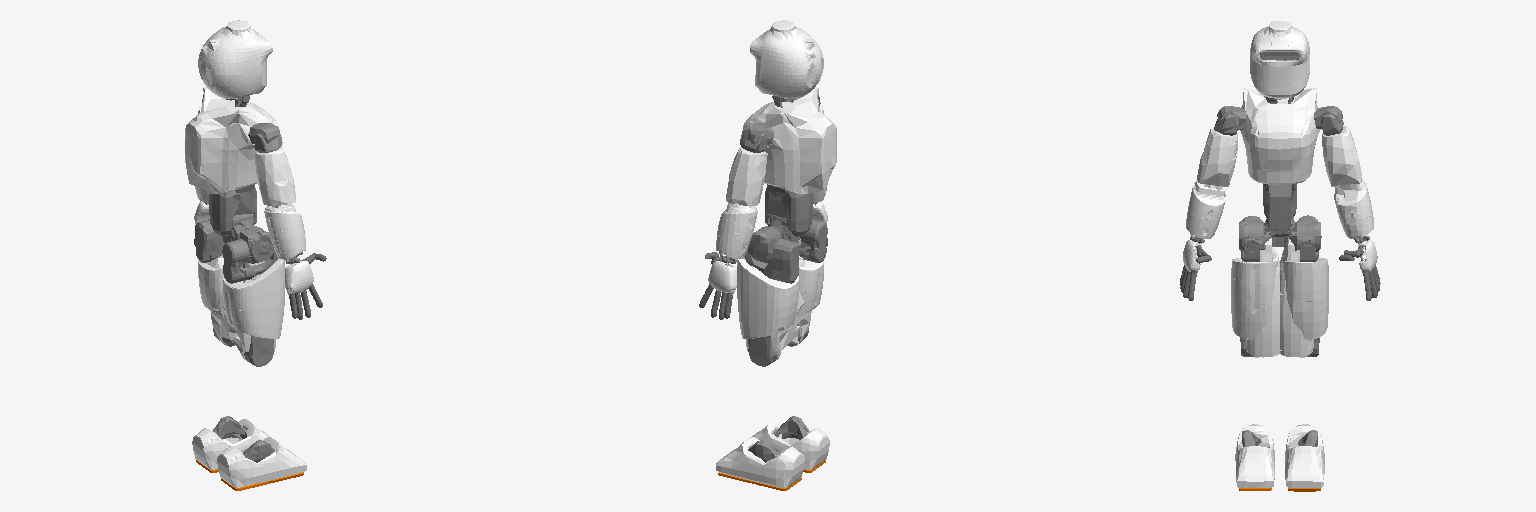
--- Facts derived from the render (not from the file) ---
Views: 3 orthographic renders of the robot side by side, from view 1: azimuth 30°, elevation 25°; view 2: azimuth 150°, elevation 25°; view 3: azimuth 270°, elevation 25°.
Robot: ergoCub — 205 links, 204 joints (57 revolute, 147 fixed); root link root_link; default pose: every joint at zero.
Links seen in each view (by area): view 1: chest, head, r_hip_3, r_ankle_2, r_upper_arm, r_forearm, l_ankle_2, torso_1, r_hip_2, l_hip_3, l_hip_2, r_hip_1 (+3 smaller); view 2: chest, head, l_hip_3, l_ankle_2, l_upper_arm, l_forearm, r_ankle_2, torso_1, l_hip_2, r_hip_3, r_hip_2, l_hip_1 (+2 smaller); view 3: chest, head, r_hip_3, l_hip_3, l_ankle_2, r_ankle_2, r_upper_arm, l_upper_arm, l_forearm, r_forearm, l_lower_leg, r_lower_leg (+3 smaller).
Boxes of the visible links, <box> form: chest: <box>185,87,278,193</box>; head: <box>198,20,272,98</box>; r_hip_3: <box>223,257,285,338</box>; r_ankle_2: <box>217,437,306,487</box>; r_upper_arm: <box>255,147,295,206</box>; r_forearm: <box>264,204,305,259</box>; l_ankle_2: <box>192,419,269,469</box>; torso_1: <box>209,187,256,236</box>; r_hip_2: <box>222,239,276,283</box>; l_hip_3: <box>198,255,223,316</box>; l_hip_2: <box>195,219,223,262</box>; r_hip_1: <box>239,226,274,263</box>; chest: <box>743,87,836,193</box>; head: <box>750,20,823,98</box>; l_hip_3: <box>737,257,798,338</box>; l_ankle_2: <box>716,437,804,487</box>; l_upper_arm: <box>726,147,767,205</box>; l_forearm: <box>716,202,757,259</box>; r_ankle_2: <box>750,419,829,469</box>; torso_1: <box>765,186,812,236</box>; l_hip_2: <box>745,239,799,283</box>; r_hip_3: <box>798,256,823,316</box>; r_hip_2: <box>799,219,827,262</box>; l_hip_1: <box>748,226,782,262</box>; chest: <box>1240,88,1320,184</box>; head: <box>1250,21,1309,98</box>; r_hip_3: <box>1231,258,1277,339</box>; l_hip_3: <box>1282,258,1328,339</box>; l_ankle_2: <box>1285,424,1324,487</box>; r_ankle_2: <box>1235,424,1274,487</box>; r_upper_arm: <box>1197,126,1237,186</box>; l_upper_arm: <box>1322,126,1361,186</box>; l_forearm: <box>1334,180,1373,238</box>; r_forearm: <box>1186,181,1225,238</box>; l_lower_leg: <box>1280,237,1313,357</box>; r_lower_leg: <box>1246,238,1279,357</box>.
Size in the robot's own frame: 0.3293 by 0.6038 by 1.48 metres.
67 mesh visuals loaded from 67 distinct referenced files (67 binary STL).

robot.urdf — ergoCub:
<?xml version="1.0"?>
<robot name="ergoCub">
  <link name="root_link">
    <inertial>
      <mass value="2.823751482824641"/>
      <origin xyz="0.0024748962432214403 -1.050794470993344e-4 0.023450368787955644" rpy="0 -0 0"/>
      <inertia ixx="0.005630606285299466" ixy="1.4369039688385168e-6" ixz="2.329934099458601e-5" iyy="0.004380033669258687" iyz="1.4098441290533537e-5" izz="0.003616681010808376"/>
    </inertial>
    <visual>
      <origin xyz="0 0 0" rpy="0 -0 0"/>
      <geometry>
        <mesh filename="package://ergoCub/meshes/simmechanics/sim_ecub_1-1_root_link.stl" scale="0.001 0.001 0.001"/>
      </geometry>
      <material name="">
        <color rgba="0.6 0.6 0.6 1"/>
      </material>
    </visual>
    <collision>
      <origin xyz="0 0 0" rpy="0 -0 0"/>
      <geometry>
        <mesh filename="package://ergoCub/meshes/simmechanics/sim_ecub_1-1_root_link.stl" scale="0.001 0.001 0.001"/>
      </geometry>
      <material name="">
        <color rgba="0.6 0.6 0.6 1"/>
      </material>
    </collision>
  </link>
  <joint name="l_hip_pitch" type="revolute">
    <origin xyz="0.02109999999999964 0.050500000000000836 1.942890293094024e-16" rpy="3.958535957527503e-15 3.810968172190701e-15 1.167434911886406e-16"/>
    <axis xyz="-5.772831379991284e-17 -1 -1.3843833381666392e-17"/>
    <parent link="root_link"/>
    <child link="l_hip_1"/>
    <limit lower="-0.767944870877505" upper="1.9198621771937625" effort="1e+9" velocity="1e+9"/>
    <dynamics damping="2" friction="0"/>
  </joint>
  <link name="l_hip_1">
    <inertial>
      <mass value="2.231768868859629"/>
      <origin xyz="-0.0040154224851623455 0.028247280560774652 -6.811143992383195e-4" rpy="0 -0 0"/>
      <inertia ixx="0.002210921814931002" ixy="5.971255499379551e-5" ixz="-1.5432160879022988e-5" iyy="0.002695326128467937" iyz="-5.838535051658118e-6" izz="0.0024610381641843883"/>
    </inertial>
    <visual>
      <origin xyz="0 0 0" rpy="0 -0 0"/>
      <geometry>
        <mesh filename="package://ergoCub/meshes/simmechanics/sim_ecub_1-1_l_hip_1.stl" scale="0.001 0.001 0.001"/>
      </geometry>
      <material name="">
        <color rgba="0.6 0.6 0.6 1"/>
      </material>
    </visual>
    <collision>
      <origin xyz="0 0 0" rpy="0 -0 0"/>
      <geometry>
        <mesh filename="package://ergoCub/meshes/simmechanics/sim_ecub_1-1_l_hip_1.stl" scale="0.001 0.001 0.001"/>
      </geometry>
      <material name="">
        <color rgba="0.6 0.6 0.6 1"/>
      </material>
    </collision>
  </link>
  <joint name="r_hip_pitch" type="revolute">
    <origin xyz="0.021099999999999643 -0.05049999999999917 -2.220446049250313e-16" rpy="3.986223624290839e-15 9.012328668422501e-14 4.978996250550603e-17"/>
    <axis xyz="-1.0880513989386065e-16 -1 1.384383338166008e-17"/>
    <parent link="root_link"/>
    <child link="r_hip_1"/>
    <limit lower="-0.767944870877505" upper="1.9198621771937625" effort="1e+9" velocity="1e+9"/>
    <dynamics damping="2" friction="0"/>
  </joint>
  <link name="r_hip_1">
    <inertial>
      <mass value="2.2320852637398954"/>
      <origin xyz="-0.004032117730258793 -0.028249385885545365 -6.739019720393702e-4" rpy="0 -0 0"/>
      <inertia ixx="0.00221225947743564" ixy="-6.126720536020865e-5" ixz="-1.5035655169601288e-5" iyy="0.002695545891317729" iyz="6.443355522460266e-6" izz="0.0024608876750051726"/>
    </inertial>
    <visual>
      <origin xyz="0 0 0" rpy="0 -0 0"/>
      <geometry>
        <mesh filename="package://ergoCub/meshes/simmechanics/sim_ecub_1-1_r_hip_1.stl" scale="0.001 0.001 0.001"/>
      </geometry>
      <material name="">
        <color rgba="0.6 0.6 0.6 1"/>
      </material>
    </visual>
    <collision>
      <origin xyz="0 0 0" rpy="0 -0 0"/>
      <geometry>
        <mesh filename="package://ergoCub/meshes/simmechanics/sim_ecub_1-1_r_hip_1.stl" scale="0.001 0.001 0.001"/>
      </geometry>
      <material name="">
        <color rgba="0.6 0.6 0.6 1"/>
      </material>
    </collision>
  </link>
  <joint name="torso_roll" type="revolute">
    <origin xyz="-2.23890229767886e-18 -5.551115123142428e-20 0.060500000000000095" rpy="0 -2.2470258116354473e-44 5.656623812198896e-30"/>
    <axis xyz="-1 0 1.4239886692466155e-15"/>
    <parent link="root_link"/>
    <child link="torso_1"/>
    <limit lower="-0.4363323129985824" upper="0.4363323129985824" effort="1e+9" velocity="1e+9"/>
    <dynamics damping="2" friction="0"/>
  </joint>
  <link name="torso_1">
    <inertial>
      <mass value="2.0645667"/>
      <origin xyz="-0.00963997362197503 6.168494736287859e-4 0.08244231288506354" rpy="0 -0 0"/>
      <inertia ixx="0.007406085999999999" ixy="0" ixz="0" iyy="0.0059470732999999994" iyz="0" izz="0.0031780111"/>
    </inertial>
    <visual>
      <origin xyz="0 0 0" rpy="0 -0 0"/>
      <geometry>
        <mesh filename="package://ergoCub/meshes/simmechanics/sim_ecub_1-1_torso_1.stl" scale="0.001 0.001 0.001"/>
      </geometry>
      <material name="">
        <color rgba="0.6 0.6 0.6 1"/>
      </material>
    </visual>
    <collision>
      <origin xyz="0 0 0" rpy="0 -0 0"/>
      <geometry>
        <mesh filename="package://ergoCub/meshes/simmechanics/sim_ecub_1-1_torso_1.stl" scale="0.001 0.001 0.001"/>
      </geometry>
      <material name="">
        <color rgba="0.6 0.6 0.6 1"/>
      </material>
    </collision>
  </link>
  <joint name="torso_pitch" type="revolute">
    <origin xyz="-7.290101862283748e-17 5.551115123142428e-20 0.11799999999999995" rpy="3.972379790909169e-15 2.710505431213761e-20 -5.6565161406289144e-30"/>
    <axis xyz="3.821412071901418e-46 1 0"/>
    <parent link="torso_1"/>
    <child link="torso_2"/>
    <limit lower="-0.3490658503988659" upper="1.1344640137963142" effort="1e+9" velocity="1e+9"/>
    <dynamics damping="2" friction="0"/>
  </joint>
  <link name="torso_2">
    <inertial>
      <mass value="0.7051627057068411"/>
      <origin xyz="0.0015724674776760373 0.0036223466761378907 0.026019504666210766" rpy="0 -0 0"/>
      <inertia ixx="0.0012590296877101025" ixy="4.1986239270733835e-6" ixz="-5.398163583772818e-6" iyy="6.675525890436374e-4" iyz="7.014302140884287e-5" izz="0.001145822810927014"/>
    </inertial>
    <visual>
      <origin xyz="0 0 0" rpy="0 -0 0"/>
      <geometry>
        <mesh filename="package://ergoCub/meshes/simmechanics/sim_ecub_1-1_torso_2.stl" scale="0.001 0.001 0.001"/>
      </geometry>
      <material name="">
        <color rgba="0.6 0.6 0.6 1"/>
      </material>
    </visual>
    <collision>
      <origin xyz="0 0 0" rpy="0 -0 0"/>
      <geometry>
        <mesh filename="package://ergoCub/meshes/simmechanics/sim_ecub_1-1_torso_2.stl" scale="0.001 0.001 0.001"/>
      </geometry>
      <material name="">
        <color rgba="0.6 0.6 0.6 1"/>
      </material>
    </collision>
  </link>
  <joint name="torso_yaw" type="revolute">
    <origin xyz="1.3429321484223738e-16 2.0428995009916363e-16 0.06446999999999985" rpy="-6.085995463684481e-15 -2.027654770291252e-15 1.0592997798766822e-15"/>
    <axis xyz="5.720965878596837e-17 -1.0794921642869322e-22 -1"/>
    <parent link="torso_2"/>
    <child link="chest"/>
    <limit lower="-0.7853981633974483" upper="0.7853981633974483" effort="1e+9" velocity="1e+9"/>
    <dynamics damping="2" friction="0"/>
  </joint>
  <link name="chest">
    <inertial>
      <mass value="8.169083432788879"/>
      <origin xyz="-0.03577155414469084 -4.1126494112009727e-4 0.08258002384912994" rpy="0 -0 0"/>
      <inertia ixx="0.0410145221879172" ixy="4.588408723680847e-5" ixz="2.1271671513563295e-5" iyy="0.05435611762471025" iyz="-1.1928930234383851e-4" izz="0.04217566475312"/>
    </inertial>
    <visual>
      <origin xyz="0 0 0" rpy="0 -0 0"/>
      <geometry>
        <mesh filename="package://ergoCub/meshes/simmechanics/sim_ecub_1-3_chest_wo_neck.stl" scale="0.001 0.001 0.001"/>
      </geometry>
      <material name="">
        <color rgba="1 1 1 1"/>
      </material>
    </visual>
    <collision>
      <origin xyz="0 0 0" rpy="0 -0 0"/>
      <geometry>
        <mesh filename="package://ergoCub/meshes/simmechanics/sim_ecub_1-3_chest_wo_neck.stl" scale="0.001 0.001 0.001"/>
      </geometry>
      <material name="">
        <color rgba="1 1 1 1"/>
      </material>
    </collision>
  </link>
  <joint name="l_shoulder_pitch" type="revolute">
    <origin xyz="-0.013518676842609899 0.06704761117227469 0.12351981080941814" rpy="0.2536123238732621 -0.052031605504493116 -0.2752787324138745"/>
    <axis xyz="-3.139849491518021e-16 1 1.3877787807814457e-16"/>
    <parent link="chest"/>
    <child link="l_shoulder_1"/>
    <limit lower="-2.9670597283903604" upper="0.6108652381980153" effort="1e+9" velocity="1e+9"/>
    <dynamics damping="2" friction="0"/>
  </joint>
  <link name="l_shoulder_1">
    <inertial>
      <mass value="0.7913756606310043"/>
      <origin xyz="1.4824275422014796e-4 0.06782971819041986 5.036196460999898e-4" rpy="0 -0 0"/>
      <inertia ixx="0.0012090260632276477" ixy="3.837452877706498e-6" ixz="3.4979966648173376e-7" iyy="3.2970130687487713e-4" iyz="1.0257960656819495e-5" izz="0.0011953232413247816"/>
    </inertial>
    <visual>
      <origin xyz="0 0 0" rpy="0 -0 0"/>
      <geometry>
        <mesh filename="package://ergoCub/meshes/simmechanics/sim_ecub_1-1_l_shoulder_1.stl" scale="0.001 0.001 0.001"/>
      </geometry>
      <material name="">
        <color rgba="0.6 0.6 0.6 1"/>
      </material>
    </visual>
    <collision>
      <origin xyz="0 0 0" rpy="0 -0 0"/>
      <geometry>
        <mesh filename="package://ergoCub/meshes/simmechanics/sim_ecub_1-1_l_shoulder_1.stl" scale="0.001 0.001 0.001"/>
      </geometry>
      <material name="">
        <color rgba="0.6 0.6 0.6 1"/>
      </material>
    </collision>
  </link>
  <joint name="r_shoulder_pitch" type="revolute">
    <origin xyz="-0.013518676842610013 -0.06704761117227458 0.12351981080941819" rpy="-0.2536123238732659 -0.052031605504493005 0.27527873241387185"/>
    <axis xyz="-4.718447854656915e-16 1.0000000000000002 3.524958103184872e-15"/>
    <parent link="chest"/>
    <child link="r_shoulder_1"/>
    <limit lower="-2.9670597283903604" upper="0.6108652381980153" effort="1e+9" velocity="1e+9"/>
    <dynamics damping="2" friction="0"/>
  </joint>
  <link name="r_shoulder_1">
    <inertial>
      <mass value="0.7922822880502421"/>
      <origin xyz="1.7243569867328445e-4 -0.06784040318161474 4.7600094527533443e-4" rpy="0 -0 0"/>
      <inertia ixx="0.0012096539626434014" ixy="-3.680808987116546e-6" ixz="8.229428308001538e-7" iyy="3.3067105254799123e-4" iyz="-1.0172274013350282e-5" izz="0.0011958286331174221"/>
    </inertial>
    <visual>
      <origin xyz="0 0 0" rpy="0 -0 0"/>
      <geometry>
        <mesh filename="package://ergoCub/meshes/simmechanics/sim_ecub_1-1_r_shoulder_1.stl" scale="0.001 0.001 0.001"/>
      </geometry>
      <material name="">
        <color rgba="0.6 0.6 0.6 1"/>
      </material>
    </visual>
    <collision>
      <origin xyz="0 0 0" rpy="0 -0 0"/>
      <geometry>
        <mesh filename="package://ergoCub/meshes/simmechanics/sim_ecub_1-1_r_shoulder_1.stl" scale="0.001 0.001 0.001"/>
      </geometry>
      <material name="">
        <color rgba="0.6 0.6 0.6 1"/>
      </material>
    </collision>
  </link>
  <joint name="neck_fixed_joint" type="fixed">
    <origin xyz="-0.0037500000000000176 7.776068354139607e-18 0.18229999999999996" rpy="2.384521650826854e-16 -8.870011704085565e-17 -1.725433700530891e-15"/>
    <parent link="chest"/>
    <child link="neck_1"/>
  </joint>
  <link name="neck_1">
    <inertial>
      <mass value="0.25627387976979793"/>
      <origin xyz="0.006551572810114587 -0.0027050942316333556 0.03528711380390005" rpy="0 -0 0"/>
      <inertia ixx="1.9974023662230547e-4" ixy="2.651751037073238e-7" ixz="-1.54446091528798e-5" iyy="1.2271241386755159e-4" iyz="4.168707548284002e-6" izz="1.2470608919718895e-4"/>
    </inertial>
    <visual>
      <origin xyz="0 0 0" rpy="0 -0 0"/>
      <geometry>
        <mesh filename="package://ergoCub/meshes/simmechanics/sim_ecub_1-3_head_neck_1.stl" scale="0.001 0.001 0.001"/>
      </geometry>
      <material name="">
        <color rgba="0.6 0.6 0.6 1"/>
      </material>
    </visual>
    <collision>
      <origin xyz="0 0 0" rpy="0 -0 0"/>
      <geometry>
        <mesh filename="package://ergoCub/meshes/simmechanics/sim_ecub_1-3_head_neck_1.stl" scale="0.001 0.001 0.001"/>
      </geometry>
      <material name="">
        <color rgba="0.6 0.6 0.6 1"/>
      </material>
    </collision>
  </link>
  <joint name="neck_pitch" type="revolute">
    <origin xyz="0.008650000000000012 -3.475400653324001e-18 0.045000000000000095" rpy="-9.967438430278062e-17 -5.5151334385361996e-17 -2.1777694761997513e-15"/>
    <axis xyz="2.1777694761997513e-15 -1 -9.967438430278136e-17"/>
    <parent link="neck_1"/>
    <child link="neck_2"/>
    <limit lower="-0.7853981633974483" upper="0.3839724354387525" effort="1e+9" velocity="1e+9"/>
    <dynamics damping="2" friction="0"/>
  </joint>
  <link name="neck_2">
    <inertial>
      <mass value="0.2945770397905417"/>
      <origin xyz="-0.010459771530164481 2.0082617155355452e-4 0.009087209541868035" rpy="0 -0 0"/>
      <inertia ixx="1.2591560224570937e-4" ixy="-3.064039041078833e-6" ixz="2.6108646064688653e-6" iyy="2.3611402495028025e-4" iyz="-1.0387919568957451e-6" izz="3.055276927828535e-4"/>
    </inertial>
    <visual>
      <origin xyz="0 0 0" rpy="0 -0 0"/>
      <geometry>
        <mesh filename="package://ergoCub/meshes/simmechanics/sim_ecub_1-3_head_neck_2.stl" scale="0.001 0.001 0.001"/>
      </geometry>
      <material name="">
        <color rgba="0.6 0.6 0.6 1"/>
      </material>
    </visual>
    <collision>
      <origin xyz="0 0 0" rpy="0 -0 0"/>
      <geometry>
        <mesh filename="package://ergoCub/meshes/simmechanics/sim_ecub_1-3_head_neck_2.stl" scale="0.001 0.001 0.001"/>
      </geometry>
      <material name="">
        <color rgba="0.6 0.6 0.6 1"/>
      </material>
    </collision>
  </link>
  <joint name="neck_roll" type="revolute">
    <origin xyz="-8.673617379884035e-18 7.619916604340795e-16 0.010999999999997845" rpy="2.181085978698084e-16 7.048063206293082e-14 1.1565204487256896e-14"/>
    <axis xyz="1 9.288242243134705e-16 -1.0059216859858537e-16"/>
    <parent link="neck_2"/>
    <child link="neck_3"/>
    <limit lower="-0.3490658503988659" upper="0.3490658503988659" effort="1e+9" velocity="1e+9"/>
    <dynamics damping="2" friction="0"/>
  </joint>
  <link name="neck_3">
    <inertial>
      <mass value="0.26196252682452986"/>
      <origin xyz="-0.01128743581519258 1.9992128363116957e-7 0.0441664976596047" rpy="0 -0 0"/>
      <inertia ixx="2.1042529365574477e-4" ixy="1.6665678269668257e-8" ixz="-8.803107073461479e-5" iyy="2.703191160638858e-4" iyz="0" izz="1.0757199897321482e-4"/>
    </inertial>
    <visual>
      <origin xyz="0 0 0" rpy="0 -0 0"/>
      <geometry>
        <mesh filename="package://ergoCub/meshes/simmechanics/sim_ecub_1-3_head_neck_3.stl" scale="0.001 0.001 0.001"/>
      </geometry>
      <material name="">
        <color rgba="0.6 0.6 0.6 1"/>
      </material>
    </visual>
    <collision>
      <origin xyz="0 0 0" rpy="0 -0 0"/>
      <geometry>
        <mesh filename="package://ergoCub/meshes/simmechanics/sim_ecub_1-3_head_neck_3.stl" scale="0.001 0.001 0.001"/>
      </geometry>
      <material name="">
        <color rgba="0.6 0.6 0.6 1"/>
      </material>
    </collision>
  </link>
  <joint name="neck_yaw" type="revolute">
    <origin xyz="-7.979727989493313e-17 1.0161561893579613e-17 0.06914999999999977" rpy="-3.4511069617703464e-17 -1.4127649560298857e-15 7.351849132495494e-16"/>
    <axis xyz="1.4127649560298857e-15 -3.451106961770346e-17 0.9999999999999999"/>
    <parent link="neck_3"/>
    <child link="head"/>
    <limit lower="-0.7853981633974483" upper="0.7853981633974483" effort="1e+9" velocity="1e+9"/>
    <dynamics damping="2" friction="0"/>
  </joint>
  <link name="head">
    <inertial>
      <mass value="1.6902682"/>
      <origin xyz="-0.01620091412622722 -0.002268813231724542 0.03500744217497026" rpy="0 -0 0"/>
      <inertia ixx="0.0097840569" ixy="0" ixz="0" iyy="0.010869342" iyz="0" izz="0.0070099259"/>
    </inertial>
    <visual>
      <origin xyz="0 0 0" rpy="0 -0 0"/>
      <geometry>
        <mesh filename="package://ergoCub/meshes/simmechanics/sim_ecub_1-1_head.stl" scale="0.001 0.001 0.001"/>
      </geometry>
      <material name="">
        <color rgba="1 1 1 1"/>
      </material>
    </visual>
    <collision>
      <origin xyz="0 0 0" rpy="0 -0 0"/>
      <geometry>
        <mesh filename="package://ergoCub/meshes/simmechanics/sim_ecub_1-1_head.stl" scale="0.001 0.001 0.001"/>
      </geometry>
      <material name="">
        <color rgba="1 1 1 1"/>
      </material>
    </collision>
  </link>
  <joint name="camera_tilt" type="revolute">
    <origin xyz="0.06251000000000001 -3.0000000001050477e-5 0.07639250000000047" rpy="9.111439807334751e-15 2.595819936170884e-4 1.6567881612394884e-15"/>
    <axis xyz="2.4623749474468526e-16 -1 -1.3590792672067983e-15"/>
    <parent link="head"/>
    <child link="realsense"/>
    <limit lower="-0.5235987755982988" upper="0.5235987755982988" effort="1e+9" velocity="1e+9"/>
    <dynamics damping="2" friction="0"/>
  </joint>
  <link name="realsense">
    <inertial>
      <mass value="0.0973042045264468"/>
      <origin xyz="-0.01566548310600667 0.004519995218644514 0.002745610154123612" rpy="0 -0 0"/>
      <inertia ixx="1.3363140922191058e-4" ixy="4.7877399688365374e-5" ixz="2.5482221369268495e-5" iyy="1.8708641575714753e-4" iyz="-7.171072206331662e-6" izz="2.963329027014652e-4"/>
    </inertial>
    <visual>
      <origin xyz="0 0 0" rpy="0 -0 0"/>
      <geometry>
        <mesh filename="package://ergoCub/meshes/simmechanics/sim_ecub_1-1_realsense.stl" scale="0.001 0.001 0.001"/>
      </geometry>
      <material name="">
        <color rgba="0.6 0.6 0.6 1"/>
      </material>
    </visual>
    <collision>
      <origin xyz="0 0 0" rpy="0 -0 0"/>
      <geometry>
        <mesh filename="package://ergoCub/meshes/simmechanics/sim_ecub_1-1_realsense.stl" scale="0.001 0.001 0.001"/>
      </geometry>
      <material name="">
        <color rgba="0.6 0.6 0.6 1"/>
      </material>
    </collision>
  </link>
  <joint name="r_shoulder_roll" type="revolute">
    <origin xyz="0.007499999999999448 -0.09330000000000005 -1.3877787807814457e-15" rpy="-2.109423746787796e-15 9.672818102046676e-15 -7.605027718682318e-15"/>
    <axis xyz="-1.0000000000000007 -1.955033357425885e-15 -5.967448757360106e-16"/>
    <parent link="r_shoulder_1"/>
    <child link="r_shoulder_2"/>
    <limit lower="-0.2617993877991494" upper="2.6179938779914944" effort="1e+9" velocity="1e+9"/>
    <dynamics damping="2" friction="0"/>
  </joint>
  <link name="r_shoulder_2">
    <inertial>
      <mass value="0.4392272062642899"/>
      <origin xyz="0.005113618901434032 -2.13348557806331e-4 -0.020425805469504787" rpy="0 -0 0"/>
      <inertia ixx="2.9042245268154257e-4" ixy="-9.557527654531481e-7" ixz="-9.749291990105912e-5" iyy="4.271705089556584e-4" iyz="-1.2227717602335833e-6" izz="2.6647274612786855e-4"/>
    </inertial>
    <visual>
      <origin xyz="0 0 0" rpy="0 -0 0"/>
      <geometry>
        <mesh filename="package://ergoCub/meshes/simmechanics/sim_ecub_1-1_r_shoulder_2.stl" scale="0.001 0.001 0.001"/>
      </geometry>
      <material name="">
        <color rgba="0.6 0.6 0.6 1"/>
      </material>
    </visual>
    <collision>
      <origin xyz="0 0 0" rpy="0 -0 0"/>
      <geometry>
        <mesh filename="package://ergoCub/meshes/simmechanics/sim_ecub_1-1_r_shoulder_2.stl" scale="0.001 0.001 0.001"/>
      </geometry>
      <material name="">
        <color rgba="0.6 0.6 0.6 1"/>
      </material>
    </collision>
  </link>
  <joint name="r_arm_ft_sensor" type="fixed">
    <origin xyz="-0.006850000000000004 -5.551115123125783e-17 -0.054300000000000015" rpy="-2.220446049250312e-16 -2.3592239273284576e-16 1.6098233857064762e-15"/>
    <parent link="r_shoulder_2"/>
    <child link="r_shoulder_3"/>
  </joint>
  <link name="r_shoulder_3">
    <inertial>
      <mass value="0.271466272759966"/>
      <origin xyz="-8.31167799586717e-5 -3.0654831449927755e-5 -0.007966545320293866" rpy="0 -0 0"/>
      <inertia ixx="7.620284216410257e-5" ixy="-3.654997747197785e-7" ixz="-3.6240077897294374e-8" iyy="7.648716704064904e-5" iyz="-6.051355657868799e-8" izz="1.2740184766279634e-4"/>
    </inertial>
    <visual>
      <origin xyz="0 0 0" rpy="0 -0 0"/>
      <geometry>
        <mesh filename="package://ergoCub/meshes/simmechanics/sim_ecub_1-1_r_shoulder_3.stl" scale="0.001 0.001 0.001"/>
      </geometry>
      <material name="">
        <color rgba="0.6 0.6 0.6 1"/>
      </material>
    </visual>
    <collision>
      <origin xyz="0 0 0" rpy="0 -0 0"/>
      <geometry>
        <mesh filename="package://ergoCub/meshes/simmechanics/sim_ecub_1-1_r_shoulder_3.stl" scale="0.001 0.001 0.001"/>
      </geometry>
      <material name="">
        <color rgba="0.6 0.6 0.6 1"/>
      </material>
    </collision>
  </link>
  <joint name="r_shoulder_yaw" type="revolute">
    <origin xyz="-7.979727989493313e-17 5.551115123125783e-17 -0.02249999999999998" rpy="-5.55111512312578e-17 -3.0531133177191805e-16 7.660538869913577e-15"/>
    <axis xyz="2.567390744445681e-16 2.775557561562927e-17 1.0000000000000004"/>
    <parent link="r_shoulder_3"/>
    <child link="r_upper_arm"/>
    <limit lower="-0.9075712110370514" upper="1.4311699866353502" effort="1e+9" velocity="1e+9"/>
    <dynamics damping="2" friction="0"/>
  </joint>
  <link name="r_upper_arm">
    <inertial>
      <mass value="1.7722348545631907"/>
      <origin xyz="1.4699786491786937e-4 -0.0023354938418406186 -0.05011711267210951" rpy="0 -0 0"/>
      <inertia ixx="0.0034219198528275844" ixy="3.081029189714289e-5" ixz="2.5743017599563002e-5" iyy="0.003510878854314856" iyz="-1.0938393403810045e-4" izz="0.0015765483711818404"/>
    </inertial>
    <visual>
      <origin xyz="0 0 0" rpy="0 -0 0"/>
      <geometry>
        <mesh filename="package://ergoCub/meshes/simmechanics/sim_ecub_1-1_r_upperarm.stl" scale="0.001 0.001 0.001"/>
      </geometry>
      <material name="">
        <color rgba="1 1 1 1"/>
      </material>
    </visual>
    <collision>
      <origin xyz="0 0 0" rpy="0 -0 0"/>
      <geometry>
        <mesh filename="package://ergoCub/meshes/simmechanics/sim_ecub_1-1_r_upperarm.stl" scale="0.001 0.001 0.001"/>
      </geometry>
      <material name="">
        <color rgba="1 1 1 1"/>
      </material>
    </collision>
  </link>
  <joint name="r_elbow" type="revolute">
    <origin xyz="0.01000000000000002 0.0015000000000005287 -0.12369999999999992" rpy="-4.1633363423443286e-16 -5.842548667089886e-15 -8.326672684688652e-15"/>
    <axis xyz="3.001071613439684e-16 -1.0000000000000027 1.2712053631958044e-14"/>
    <parent link="r_upper_arm"/>
    <child link="r_forearm"/>
    <limit lower="-0.08726646259971647" upper="2.0943951023931953" effort="1e+9" velocity="1e+9"/>
    <dynamics damping="2" friction="0"/>
  </joint>
  <link name="r_forearm">
    <inertial>
      <mass value="1.4760712424977045"/>
      <origin xyz="-0.01830687629472739 -0.002214887320910963 -0.08814943647449926" rpy="0 -0 0"/>
      <inertia ixx="0.004018141035792247" ixy="-1.0169837170335636e-6" ixz="-6.092751707960711e-5" iyy="0.004094401103638503" iyz="2.3622606931134418e-5" izz="0.00151761593950533"/>
    </inertial>
    <visual>
      <origin xyz="0 0 0" rpy="0 -0 0"/>
      <geometry>
        <mesh filename="package://ergoCub/meshes/simmechanics/sim_ecub_1-1_r_forearm.stl" scale="0.001 0.001 0.001"/>
      </geometry>
      <material name="">
        <color rgba="1 1 1 1"/>
      </material>
    </visual>
    <collision>
      <origin xyz="0 0 0" rpy="0 -0 0"/>
      <geometry>
        <mesh filename="package://ergoCub/meshes/simmechanics/sim_ecub_1-1_r_forearm.stl" scale="0.001 0.001 0.001"/>
      </geometry>
      <material name="">
        <color rgba="1 1 1 1"/>
      </material>
    </collision>
  </link>
  <joint name="r_wrist_yaw" type="revolute">
    <origin xyz="-0.014999999999999767 -0.0019999999999965323 -0.1943500000000011" rpy="-2.081668171172164e-15 -1.1587952819525071e-14 -2.997602166487915e-15"/>
    <axis xyz="5.5788706987414416e-15 -1.2628786905111175e-14 1.000000000000002"/>
    <parent link="r_forearm"/>
    <child link="r_wrist_1"/>
    <limit lower="-1.6057029118347832" upper="1.6057029118347832" effort="1e+9" velocity="1e+9"/>
    <dynamics damping="2" friction="0"/>
  </joint>
  <link name="r_wrist_1">
    <inertial>
      <mass value="0.12269276206782376"/>
      <origin xyz="-1.4544607175177166e-4 1.559247070407055e-4 0.022377800821402394" rpy="0 -0 0"/>
      <inertia ixx="4.9948289621641885e-5" ixy="-2.784766720355678e-7" ixz="6.019515820494411e-7" iyy="4.9363344899850536e-5" iyz="-7.101822163237812e-7" izz="5.04085543186966e-5"/>
    </inertial>
    <visual>
      <origin xyz="0 0 0" rpy="0 -0 0"/>
      <geometry>
        <mesh filename="package://ergoCub/meshes/simmechanics/sim_ecub_1-1_r_wrist_1.stl" scale="0.001 0.001 0.001"/>
      </geometry>
      <material name="">
        <color rgba="0.6 0.6 0.6 1"/>
      </material>
    </visual>
    <collision>
      <origin xyz="0 0 0" rpy="0 -0 0"/>
      <geometry>
        <mesh filename="package://ergoCub/meshes/simmechanics/sim_ecub_1-1_r_wrist_1.stl" scale="0.001 0.001 0.001"/>
      </geometry>
      <material name="">
        <color rgba="0.6 0.6 0.6 1"/>
      </material>
    </collision>
  </link>
  <joint name="r_wrist_roll" type="revolute">
    <origin xyz="1.4224732503009818e-16 2.498001805406602e-16 1.3877787807814457e-16" rpy="3.8857805861880484e-16 5.551115123125783e-17 -1.6653345369377353e-16"/>
    <axis xyz="0.9999999999999997 -2.480654570646835e-16 -1.873501354054953e-16"/>
    <parent link="r_wrist_1"/>
    <child link="r_wrist_2"/>
    <limit lower="-0.3490658503988659" upper="0.5235987755982988" effort="1e+9" velocity="1e+9"/>
    <dynamics damping="2" friction="0"/>
  </joint>
  <link name="r_wrist_2">
    <inertial>
      <mass value="0.021188357245777188"/>
      <origin xyz="5.05499045400093e-11 7.897372606293362e-4 -0.004696960055006527" rpy="0 -0 0"/>
      <inertia ixx="1.5886797233767314e-6" ixy="3.7411538116720276e-13" ixz="-1.6476959268145782e-14" iyy="1.6075566141746972e-6" iyz="7.534291394795915e-8" izz="2.5064167139343093e-6"/>
    </inertial>
    <visual>
      <origin xyz="0 0 0" rpy="0 -0 0"/>
      <geometry>
        <mesh filename="package://ergoCub/meshes/simmechanics/sim_ecub_1-1_r_wrist_2.stl" scale="0.001 0.001 0.001"/>
      </geometry>
      <material name="">
        <color rgba="0.5 0.5 0.5 1"/>
      </material>
    </visual>
    <collision>
      <origin xyz="0 0 0" rpy="0 -0 0"/>
      <geometry>
        <mesh filename="package://ergoCub/meshes/simmechanics/sim_ecub_1-1_r_wrist_2.stl" scale="0.001 0.001 0.001"/>
      </geometry>
      <material name="">
        <color rgba="0.5 0.5 0.5 1"/>
      </material>
    </collision>
  </link>
  <joint name="r_wrist_pitch" type="revolute">
    <origin xyz="-4.85722573273506e-17 0 2.7755575615628914e-17" rpy="2.2204460492503136e-16 -5.551115123125783e-17 -3.88578058618805e-16"/>
    <axis xyz="4.128641872824801e-16 -0.9999999999999998 -8.049116928532385e-16"/>
    <parent link="r_wrist_2"/>
    <child link="r_hand_palm"/>
    <limit lower="-0.3490658503988659" upper="0.3490658503988659" effort="1e+9" velocity="1e+9"/>
    <dynamics damping="2" friction="0"/>
  </joint>
  <link name="r_hand_palm">
    <inertial>
      <mass value="0.2020068404688116"/>
      <origin xyz="-0.003982157972782507 -0.0021135289059891482 -0.05842371394186491" rpy="0 -0 0"/>
      <inertia ixx="1.4279727238409082e-4" ixy="4.3471459905317745e-6" ixz="-1.2099467097336674e-5" iyy="2.1040345151106222e-4" iyz="4.7767131643957866e-6" izz="1.0688011837800253e-4"/>
    </inertial>
    <visual>
      <origin xyz="0 0 0" rpy="0 -0 0"/>
      <geometry>
        <mesh filename="package://ergoCub/meshes/simmechanics/sim_ecub_1-1_r_hand_palm.stl" scale="0.001 0.001 0.001"/>
      </geometry>
      <material name="">
        <color rgba="1 1 1 1"/>
      </material>
    </visual>
    <collision>
      <origin xyz="0 0 0" rpy="0 -0 0"/>
      <geometry>
        <mesh filename="package://ergoCub/meshes/simmechanics/sim_ecub_1-1_r_hand_palm.stl" scale="0.001 0.001 0.001"/>
      </geometry>
      <material name="">
        <color rgba="1 1 1 1"/>
      </material>
    </collision>
  </link>
  <joint name="r_index_add" type="revolute">
    <origin xyz="0.02250000000000002 0.0015000000000002234 -0.06859999999999983" rpy="-1.625331490597858e-15 0.29670597283904 3.141592653589792"/>
    <axis xyz="-4.834212114732253e-16 -1 1.6046911875538944e-15"/>
    <parent link="r_hand_palm"/>
    <child link="r_hand_index_1"/>
    <limit lower="0" upper="0.2617993877991494" effort="1e+9" velocity="1e+9"/>
    <dynamics damping="2" friction="0"/>
  </joint>
  <link name="r_hand_index_1">
    <inertial>
      <mass value="0.019232477290189804"/>
      <origin xyz="-0.008420124408709713 0.003850331678233287 -0.01714942611279774" rpy="0 -0 0"/>
      <inertia ixx="2.6266478205033898e-6" ixy="1.0045828131985182e-7" ixz="-4.4428748588513116e-7" iyy="2.811973348231671e-6" iyz="-3.9646985411500977e-8" izz="1.21028376665746e-6"/>
    </inertial>
    <visual>
      <origin xyz="0 0 0" rpy="0 -0 0"/>
      <geometry>
        <mesh filename="package://ergoCub/meshes/simmechanics/sim_ecub_1-1_r_hand_index_1.stl" scale="0.001 0.001 0.001"/>
      </geometry>
      <material name="">
        <color rgba="0.5 0.5 0.5 1"/>
      </material>
    </visual>
    <collision>
      <origin xyz="0 0 0" rpy="0 -0 0"/>
      <geometry>
        <mesh filename="package://ergoCub/meshes/simmechanics/sim_ecub_1-1_r_hand_index_1.stl" scale="0.001 0.001 0.001"/>
      </geometry>
      <material name="">
        <color rgba="0.5 0.5 0.5 1"/>
      </material>
    </collision>
  </link>
  <joint name="r_middle_prox" type="revolute">
    <origin xyz="0.009599999988882939 0.00150000000000039 -0.1030000000010361" rpy="-1.8596235662471376e-15 -1.0793124727292991e-10 3.1415926535897927"/>
    <axis xyz="-0.9999999999999996 -4.562322741819007e-15 1.079337105802658e-10"/>
    <parent link="r_hand_palm"/>
    <child link="r_hand_middle_1"/>
    <limit lower="0" upper="1.5707963267948966" effort="1e+9" velocity="1e+9"/>
    <dynamics damping="2" friction="0"/>
  </joint>
  <link name="r_hand_middle_1">
    <inertial>
      <mass value="0.007486365997467528"/>
      <origin xyz="5.610258533731913e-5 0.0011131046827904112 -0.01742880983276912" rpy="0 -0 0"/>
      <inertia ixx="1.5923690026243956e-6" ixy="-7.6859949856616e-10" ixz="-9.576514629966624e-9" iyy="1.5225016121802755e-6" iyz="1.1152097367596593e-7" izz="3.177134212214704e-7"/>
    </inertial>
    <visual>
      <origin xyz="0 0 0" rpy="0 -0 0"/>
      <geometry>
        <mesh filename="package://ergoCub/meshes/simmechanics/sim_ecub_1-1_r_hand_middle_1.stl" scale="0.001 0.001 0.001"/>
      </geometry>
      <material name="">
        <color rgba="0.5 0.5 0.5 1"/>
      </material>
    </visual>
    <collision>
      <origin xyz="0 0 0" rpy="0 -0 0"/>
      <geometry>
        <mesh filename="package://ergoCub/meshes/simmechanics/sim_ecub_1-1_r_hand_middle_1.stl" scale="0.001 0.001 0.001"/>
      </geometry>
      <material name="">
        <color rgba="0.5 0.5 0.5 1"/>
      </material>
    </collision>
  </link>
  <joint name="r_pinkie_prox" type="revolute">
    <origin xyz="-0.035982680943166166 0.002377759579109573 -0.09206828131946371" rpy="4.1095343980510334e-4 -0.08726646259972864 3.1154127148098776"/>
    <axis xyz="-0.9999999999999998 4.364801434782878e-15 0"/>
    <parent link="r_hand_palm"/>
    <child link="r_hand_pinkie_1"/>
    <limit lower="0" upper="1.5707963267948966" effort="1e+9" velocity="1e+9"/>
    <dynamics damping="2" friction="0"/>
  </joint>
  <link name="r_hand_pinkie_1">
    <inertial>
      <mass value="0.006357585733638135"/>
      <origin xyz="3.616260147435227e-5 0.0012147050941129778 -0.015053109692718447" rpy="0 -0 0"/>
      <inertia ixx="1.1594224636752146e-6" ixy="1.9700677724003336e-10" ixz="-5.145341462812334e-9" iyy="1.1056270005627898e-6" iyz="9.04498861481507e-8" izz="2.7294425194037764e-7"/>
    </inertial>
    <visual>
      <origin xyz="0 0 0" rpy="0 -0 0"/>
      <geometry>
        <mesh filename="package://ergoCub/meshes/simmechanics/sim_ecub_1-1_r_hand_pinkie_1.stl" scale="0.001 0.001 0.001"/>
      </geometry>
      <material name="">
        <color rgba="0.5 0.5 0.5 1"/>
      </material>
    </visual>
    <collision>
      <origin xyz="0 0 0" rpy="0 -0 0"/>
      <geometry>
        <mesh filename="package://ergoCub/meshes/simmechanics/sim_ecub_1-1_r_hand_pinkie_1.stl" scale="0.001 0.001 0.001"/>
      </geometry>
      <material name="">
        <color rgba="0.5 0.5 0.5 1"/>
      </material>
    </collision>
  </link>
  <joint name="r_ring_prox" type="revolute">
    <origin xyz="-0.015417755568684424 0.001849813728471178 -0.09788067183717986" rpy="2.019965811910767e-14 -0.08726646270762471 3.11541271480963"/>
    <axis xyz="-0.9999999999999997 -2.498435601042699e-13 1.0789123761067998e-10"/>
    <parent link="r_hand_palm"/>
    <child link="r_hand_ring_1"/>
    <limit lower="0" upper="1.5707963267948966" effort="1e+9" velocity="1e+9"/>
    <dynamics damping="2" friction="0"/>
  </joint>
  <link name="r_hand_ring_1">
    <inertial>
      <mass value="0.007486365997467528"/>
      <origin xyz="5.6102585337293107e-5 0.0011131045999587252 -0.017428809839565573" rpy="0 -0 0"/>
      <inertia ixx="1.5923690066834338e-6" ixy="-7.685995334343241e-10" ixz="-9.576514632814455e-9" iyy="1.5225016134675864e-6" iyz="1.115209689762951e-7" izz="3.177134239925537e-7"/>
    </inertial>
    <visual>
      <origin xyz="0 0 0" rpy="0 -0 0"/>
      <geometry>
        <mesh filename="package://ergoCub/meshes/simmechanics/sim_ecub_1-1_r_hand_ring_1.stl" scale="0.001 0.001 0.001"/>
      </geometry>
      <material name="">
        <color rgba="0.5 0.5 0.5 1"/>
      </material>
    </visual>
    <collision>
      <origin xyz="0 0 0" rpy="0 -0 0"/>
      <geometry>
        <mesh filename="package://ergoCub/meshes/simmechanics/sim_ecub_1-1_r_hand_ring_1.stl" scale="0.001 0.001 0.001"/>
      </geometry>
      <material name="">
        <color rgba="0.5 0.5 0.5 1"/>
      </material>
    </collision>
  </link>
  <joint name="r_thumb_add" type="revolute">
    <origin xyz="0.02337486325639057 0.002999999999997255 -0.03452383847355345" rpy="-5.754103576234993e-15 -0.22689280275926482 1.4242830634245035e-15"/>
    <axis xyz="6.38378239159465e-16 -4.454021783632918e-15 0.9999999999999999"/>
    <parent link="r_hand_palm"/>
    <child link="r_hand_thumb_1"/>
    <limit lower="0" upper="1.7453292519943295" effort="1e+9" velocity="1e+9"/>
    <dynamics damping="2" friction="0"/>
  </joint>
  <link name="r_hand_thumb_1">
    <inertial>
      <mass value="0.02894174189037044"/>
      <origin xyz="0.0183756324403817 -4.55521018183358e-5 0.002126473485347669" rpy="0 -0 0"/>
      <inertia ixx="2.6227221096875315e-6" ixy="-2.6657118889494294e-7" ixz="3.408188388661989e-7" iyy="7.222316801810369e-6" iyz="1.3067300647554165e-7" izz="5.813428900568859e-6"/>
    </inertial>
    <visual>
      <origin xyz="0 0 0" rpy="0 -0 0"/>
      <geometry>
        <mesh filename="package://ergoCub/meshes/simmechanics/sim_ecub_1-1_r_hand_thumb_1.stl" scale="0.001 0.001 0.001"/>
      </geometry>
      <material name="">
        <color rgba="0.5 0.5 0.5 1"/>
      </material>
    </visual>
    <collision>
      <origin xyz="0 0 0" rpy="0 -0 0"/>
      <geometry>
        <mesh filename="package://ergoCub/meshes/simmechanics/sim_ecub_1-1_r_hand_thumb_1.stl" scale="0.001 0.001 0.001"/>
      </geometry>
      <material name="">
        <color rgba="0.5 0.5 0.5 1"/>
      </material>
    </collision>
  </link>
  <joint name="r_thumb_prox" type="revolute">
    <origin xyz="0.03807465449956045 0.0034691095803252303 -0.0036017448035498556" rpy="1.4305744121375048 0.19703059795893435 -1.4222071875351314"/>
    <axis xyz="-1.0000000000000007 -1.4016565685892601e-14 2.2273849431542203e-15"/>
    <parent link="r_hand_thumb_1"/>
    <child link="r_hand_thumb_2"/>
    <limit lower="0" upper="1.5707963267948966" effort="1e+9" velocity="1e+9"/>
    <dynamics damping="2" friction="0"/>
  </joint>
  <link name="r_hand_thumb_2">
    <inertial>
      <mass value="0.00744305878263309"/>
      <origin xyz="1.1691406974989604e-5 3.0451621296398446e-4 -0.014894613060785539" rpy="0 -0 0"/>
      <inertia ixx="1.2541777770457586e-6" ixy="-1.147684944938736e-9" ixz="-7.057822900434985e-9" iyy="1.1945154819499776e-6" iyz="4.890749006588431e-8" izz="2.963919910151554e-7"/>
    </inertial>
    <visual>
      <origin xyz="0 0 0" rpy="0 -0 0"/>
      <geometry>
        <mesh filename="package://ergoCub/meshes/simmechanics/sim_ecub_1-1_r_hand_thumb_2.stl" scale="0.001 0.001 0.001"/>
      </geometry>
      <material name="">
        <color rgba="0.5 0.5 0.5 1"/>
      </material>
    </visual>
    <collision>
      <origin xyz="0 0 0" rpy="0 -0 0"/>
      <geometry>
        <mesh filename="package://ergoCub/meshes/simmechanics/sim_ecub_1-1_r_hand_thumb_2.stl" scale="0.001 0.001 0.001"/>
      </geometry>
      <material name="">
        <color rgba="0.5 0.5 0.5 1"/>
      </material>
    </collision>
  </link>
  <joint name="r_thumb_dist" type="revolute">
    <origin xyz="-2.7755575615628914e-17 -0.003710625528295458 -0.03483505788984398" rpy="-0.0632887739526215 1.8318679906315083e-15 1.4169221351778535e-14"/>
    <axis xyz="-1.0000000000000018 -2.950779077127015e-14 1.7163995950313907e-15"/>
    <parent link="r_hand_thumb_2"/>
    <child link="r_hand_thumb_3"/>
    <limit lower="0" upper="1.7697638615222502" effort="1e+9" velocity="1e+9"/>
    <dynamics damping="2" friction="0"/>
  </joint>
  <link name="r_hand_thumb_3">
    <inertial>
      <mass value="0.008481423658381124"/>
      <origin xyz="-2.8601851543103015e-5 0.002737889256839321 -0.016935937291633126" rpy="0 -0 0"/>
      <inertia ixx="1.7190835267011154e-6" ixy="-7.377621069013283e-10" ixz="3.836261023734183e-9" iyy="1.7235567982762696e-6" iyz="-8.546900549569228e-8" izz="3.326648918925078e-7"/>
    </inertial>
    <visual>
      <origin xyz="0 0 0" rpy="0 -0 0"/>
      <geometry>
        <mesh filename="package://ergoCub/meshes/simmechanics/sim_ecub_1-1_r_hand_thumb_3.stl" scale="0.001 0.001 0.001"/>
      </geometry>
      <material name="">
        <color rgba="0.5 0.5 0.5 1"/>
      </material>
    </visual>
    <collision>
      <origin xyz="0 0 0" rpy="0 -0 0"/>
      <geometry>
        <mesh filename="package://ergoCub/meshes/simmechanics/sim_ecub_1-1_r_hand_thumb_3.stl" scale="0.001 0.001 0.001"/>
      </geometry>
      <material name="">
        <color rgba="0.5 0.5 0.5 1"/>
      </material>
    </collision>
  </link>
  <joint name="r_ring_dist" type="revolute">
    <origin xyz="-1.498102770308707e-11 -0.0015000000002765024 -0.040000000000737446" rpy="-5.828670879282074e-16 1.0789557441936992e-10 2.461919557106285e-13"/>
    <axis xyz="-0.9999999999999999 2.4672971998818127e-13 -1.0789569585001324e-10"/>
    <parent link="r_hand_ring_1"/>
    <child link="r_hand_ring_2"/>
    <limit lower="0" upper="1.7994344588061537" effort="1e+9" velocity="1e+9"/>
    <dynamics damping="2" friction="0"/>
  </joint>
  <link name="r_hand_ring_2">
    <inertial>
      <mass value="0.007251413355667432"/>
      <origin xyz="4.43251343077225e-5 0.00275470906266162 -0.018890876418029168" rpy="0 -0 0"/>
      <inertia ixx="1.9331833105730582e-6" ixy="-7.989212176587309e-11" ixz="-7.904608363472145e-9" iyy="1.9365695874997407e-6" iyz="-7.314014027601115e-8" izz="3.168091312615482e-7"/>
    </inertial>
    <visual>
      <origin xyz="0 0 0" rpy="0 -0 0"/>
      <geometry>
        <mesh filename="package://ergoCub/meshes/simmechanics/sim_ecub_1-1_r_hand_ring_2.stl" scale="0.001 0.001 0.001"/>
      </geometry>
      <material name="">
        <color rgba="0.5 0.5 0.5 1"/>
      </material>
    </visual>
    <collision>
      <origin xyz="0 0 0" rpy="0 -0 0"/>
      <geometry>
        <mesh filename="package://ergoCub/meshes/simmechanics/sim_ecub_1-1_r_hand_ring_2.stl" scale="0.001 0.001 0.001"/>
      </geometry>
      <material name="">
        <color rgba="0.5 0.5 0.5 1"/>
      </material>
    </collision>
  </link>
  <joint name="r_pinkie_dist" type="revolute">
    <origin xyz="4.5102810375396984e-17 -0.001514193309379297 -0.03499938883211873" rpy="-0.0012956915198213642 -1.8735013540549517e-16 -2.775557561562892e-16"/>
    <axis xyz="-0.9999999999999999 9.036247971209683e-16 -2.4586692098222613e-15"/>
    <parent link="r_hand_pinkie_1"/>
    <child link="r_hand_pinkie_2"/>
    <limit lower="0" upper="1.7226399717184033" effort="1e+9" velocity="1e+9"/>
    <dynamics damping="2" friction="0"/>
  </joint>
  <link name="r_hand_pinkie_2">
    <inertial>
      <mass value="0.007240237490764073"/>
      <origin xyz="2.1391072559044655e-5 0.0027712863562942003 -0.018930305880602127" rpy="0 -0 0"/>
      <inertia ixx="1.925475606102824e-6" ixy="-4.3197295418411515e-10" ixz="-3.753180689187112e-9" iyy="1.929147380651044e-6" iyz="-7.607784499660943e-8" izz="3.1621036318191297e-7"/>
    </inertial>
    <visual>
      <origin xyz="0 0 0" rpy="0 -0 0"/>
      <geometry>
        <mesh filename="package://ergoCub/meshes/simmechanics/sim_ecub_1-1_r_hand_pinkie_2.stl" scale="0.001 0.001 0.001"/>
      </geometry>
      <material name="">
        <color rgba="0.5 0.5 0.5 1"/>
      </material>
    </visual>
    <collision>
      <origin xyz="0 0 0" rpy="0 -0 0"/>
      <geometry>
        <mesh filename="package://ergoCub/meshes/simmechanics/sim_ecub_1-1_r_hand_pinkie_2.stl" scale="0.001 0.001 0.001"/>
      </geometry>
      <material name="">
        <color rgba="0.5 0.5 0.5 1"/>
      </material>
    </collision>
  </link>
  <joint name="r_middle_dist" type="revolute">
    <origin xyz="-1.5434174771566944e-11 -0.0014999999999999736 -0.0399999999989637" rpy="-7.535550930470877e-8 1.0793281546295219e-10 0"/>
    <axis xyz="-0.9999999999999998 -2.0695253452753748e-15 -1.0792969296086812e-10"/>
    <parent link="r_hand_middle_1"/>
    <child link="r_hand_middle_2"/>
    <limit lower="0" upper="1.7994344588061537" effort="1e+9" velocity="1e+9"/>
    <dynamics damping="2" friction="0"/>
  </joint>
  <link name="r_hand_middle_2">
    <inertial>
      <mass value="0.007251413355667432"/>
      <origin xyz="4.432513430769475e-5 0.0027547091926723166 -0.018890876399070666" rpy="0 -0 0"/>
      <inertia ixx="1.933183310574237e-6" ixy="-7.989206743982703e-11" ixz="-7.904608363479557e-9" iyy="1.9365732602456635e-6" iyz="-7.313677768867388e-8" izz="3.168054585139121e-7"/>
    </inertial>
    <visual>
      <origin xyz="0 0 0" rpy="0 -0 0"/>
      <geometry>
        <mesh filename="package://ergoCub/meshes/simmechanics/sim_ecub_1-1_r_hand_middle_2.stl" scale="0.001 0.001 0.001"/>
      </geometry>
      <material name="">
        <color rgba="0.5 0.5 0.5 1"/>
      </material>
    </visual>
    <collision>
      <origin xyz="0 0 0" rpy="0 -0 0"/>
      <geometry>
        <mesh filename="package://ergoCub/meshes/simmechanics/sim_ecub_1-1_r_hand_middle_2.stl" scale="0.001 0.001 0.001"/>
      </geometry>
      <material name="">
        <color rgba="0.5 0.5 0.5 1"/>
      </material>
    </collision>
  </link>
  <joint name="r_index_prox" type="revolute">
    <origin xyz="-0.009192533317427379 0 -0.030713451316238316" rpy="-3.0531133177191805e-16 -2.42861286636753e-16 -1.110223024625157e-16"/>
    <axis xyz="-0.9999999999999996 3.490263633665336e-15 -1.6722734308416438e-15"/>
    <parent link="r_hand_index_1"/>
    <child link="r_hand_index_2"/>
    <limit lower="0" upper="1.5707963267948966" effort="1e+9" velocity="1e+9"/>
    <dynamics damping="2" friction="0"/>
  </joint>
  <link name="r_hand_index_2">
    <inertial>
      <mass value="0.007486365997467528"/>
      <origin xyz="5.610258533736423e-5 0.0011131050125119946 -0.01742880980571504" rpy="0 -0 0"/>
      <inertia ixx="1.5923689864672536e-6" ixy="-7.685993601390065e-10" ixz="-9.576514618642257e-9" iyy="1.5225016070540494e-6" iyz="1.1152099238402203e-7" izz="3.1771341019039245e-7"/>
    </inertial>
    <visual>
      <origin xyz="0 0 0" rpy="0 -0 0"/>
      <geometry>
        <mesh filename="package://ergoCub/meshes/simmechanics/sim_ecub_1-1_r_hand_index_2.stl" scale="0.001 0.001 0.001"/>
      </geometry>
      <material name="">
        <color rgba="0.5 0.5 0.5 1"/>
      </material>
    </visual>
    <collision>
      <origin xyz="0 0 0" rpy="0 -0 0"/>
      <geometry>
        <mesh filename="package://ergoCub/meshes/simmechanics/sim_ecub_1-1_r_hand_index_2.stl" scale="0.001 0.001 0.001"/>
      </geometry>
      <material name="">
        <color rgba="0.5 0.5 0.5 1"/>
      </material>
    </collision>
  </link>
  <joint name="r_index_dist" type="revolute">
    <origin xyz="4.163336342344337e-17 -0.0014999999999998348 -0.040000000000000036" rpy="2.220446049250313e-16 9.020562075079397e-17 5.551115123125785e-17"/>
    <axis xyz="-0.9999999999999996 -1.4571677198205192e-16 -5.620504062164854e-16"/>
    <parent link="r_hand_index_2"/>
    <child link="r_hand_index_3"/>
    <limit lower="0" upper="1.7994344588061537" effort="1e+9" velocity="1e+9"/>
    <dynamics damping="2" friction="0"/>
  </joint>
  <link name="r_hand_index_3">
    <inertial>
      <mass value="0.007251413355667432"/>
      <origin xyz="4.432513430773638e-5 0.0027547026217409343 -0.01889087735725714" rpy="0 -0 0"/>
      <inertia ixx="1.9331833106031376e-6" ixy="-7.989481683614064e-11" ixz="-7.904608320181986e-9" iyy="1.9365664798884807e-6" iyz="-7.313734234921826e-8" izz="3.168122388413564e-7"/>
    </inertial>
    <visual>
      <origin xyz="0 0 0" rpy="0 -0 0"/>
      <geometry>
        <mesh filename="package://ergoCub/meshes/simmechanics/sim_ecub_1-1_r_hand_index_3.stl" scale="0.001 0.001 0.001"/>
      </geometry>
      <material name="">
        <color rgba="0.5 0.5 0.5 1"/>
      </material>
    </visual>
    <collision>
      <origin xyz="0 0 0" rpy="0 -0 0"/>
      <geometry>
        <mesh filename="package://ergoCub/meshes/simmechanics/sim_ecub_1-1_r_hand_index_3.stl" scale="0.001 0.001 0.001"/>
      </geometry>
      <material name="">
        <color rgba="0.5 0.5 0.5 1"/>
      </material>
    </collision>
  </link>
  <joint name="l_shoulder_roll" type="revolute">
    <origin xyz="0.0049999999999999 0.09329999999999991 -1.1102230246251565e-15" rpy="2.042810365310288e-14 2.886579864025407e-15 -1.4988010832439613e-15"/>
    <axis xyz="1 -2.8796409701211803e-16 4.3853809472694054e-15"/>
    <parent link="l_shoulder_1"/>
    <child link="l_shoulder_2"/>
    <limit lower="-0.2617993877991494" upper="2.6179938779914944" effort="1e+9" velocity="1e+9"/>
    <dynamics damping="2" friction="0"/>
  </joint>
  <link name="l_shoulder_2">
    <inertial>
      <mass value="0.44093319265387243"/>
      <origin xyz="0.007519395712385758 1.8727197477702573e-4 -0.020486062588588566" rpy="0 -0 0"/>
      <inertia ixx="2.9145977319834226e-4" ixy="1.1454484909976663e-6" ixz="-9.910474228153797e-5" iyy="4.316468020210048e-4" iyz="1.4378502430788573e-6" izz="2.711572335339609e-4"/>
    </inertial>
    <visual>
      <origin xyz="0 0 0" rpy="0 -0 0"/>
      <geometry>
        <mesh filename="package://ergoCub/meshes/simmechanics/sim_ecub_1-1_l_shoulder_2.stl" scale="0.001 0.001 0.001"/>
      </geometry>
      <material name="">
        <color rgba="0.6 0.6 0.6 1"/>
      </material>
    </visual>
    <collision>
      <origin xyz="0 0 0" rpy="0 -0 0"/>
      <geometry>
        <mesh filename="package://ergoCub/meshes/simmechanics/sim_ecub_1-1_l_shoulder_2.stl" scale="0.001 0.001 0.001"/>
      </geometry>
      <material name="">
        <color rgba="0.6 0.6 0.6 1"/>
      </material>
    </collision>
  </link>
  <joint name="l_arm_ft_sensor" type="fixed">
    <origin xyz="-0.004349999999999986 -2.7755575615628914e-17 -0.05430000000000004" rpy="2.2204460492503136e-16 6.938893903907228e-18 1.4988010832439621e-15"/>
    <parent link="l_shoulder_2"/>
    <child link="l_shoulder_3"/>
  </joint>
  <link name="l_shoulder_3">
    <inertial>
      <mass value="0.271466272759966"/>
      <origin xyz="8.311677995862313e-5 3.065483169523153e-5 -0.007966545320293866" rpy="0 -0 0"/>
      <inertia ixx="7.620284216408771e-5" ixy="-3.6549977471418807e-7" ixz="3.624007789477276e-8" iyy="7.648716704064355e-5" iyz="6.05135559486276e-8" izz="1.2740184766278623e-4"/>
    </inertial>
    <visual>
      <origin xyz="0 0 0" rpy="0 -0 0"/>
      <geometry>
        <mesh filename="package://ergoCub/meshes/simmechanics/sim_ecub_1-1_l_shoulder_3.stl" scale="0.001 0.001 0.001"/>
      </geometry>
      <material name="">
        <color rgba="0.6 0.6 0.6 1"/>
      </material>
    </visual>
    <collision>
      <origin xyz="0 0 0" rpy="0 -0 0"/>
      <geometry>
        <mesh filename="package://ergoCub/meshes/simmechanics/sim_ecub_1-1_l_shoulder_3.stl" scale="0.001 0.001 0.001"/>
      </geometry>
      <material name="">
        <color rgba="0.6 0.6 0.6 1"/>
      </material>
    </collision>
  </link>
  <joint name="l_shoulder_yaw" type="revolute">
    <origin xyz="4.163336342344337e-17 -5.551115123125783e-17 -0.022499999999999937" rpy="-3.3029134982598486e-15 -3.002459392220658e-14 6.383782391594671e-15"/>
    <axis xyz="-3.0080105073437835e-14 3.191891195797326e-15 -0.9999999999999977"/>
    <parent link="l_shoulder_3"/>
    <child link="l_upper_arm"/>
    <limit lower="-0.9075712110370514" upper="1.4311699866353502" effort="1e+9" velocity="1e+9"/>
    <dynamics damping="2" friction="0"/>
  </joint>
  <link name="l_upper_arm">
    <inertial>
      <mass value="1.7708527474969076"/>
      <origin xyz="1.3049265136780286e-4 0.0022530185376357925 -0.050065038959805325" rpy="0 -0 0"/>
      <inertia ixx="0.003417154867942194" ixy="-2.952452997527239e-5" ixz="2.6752323704214618e-5" iyy="0.0035109035513553296" iyz="1.0388063737032838e-4" izz="0.0015716101936389657"/>
    </inertial>
    <visual>
      <origin xyz="0 0 0" rpy="0 -0 0"/>
      <geometry>
        <mesh filename="package://ergoCub/meshes/simmechanics/sim_ecub_1-1_l_upperarm.stl" scale="0.001 0.001 0.001"/>
      </geometry>
      <material name="">
        <color rgba="1 1 1 1"/>
      </material>
    </visual>
    <collision>
      <origin xyz="0 0 0" rpy="0 -0 0"/>
      <geometry>
        <mesh filename="package://ergoCub/meshes/simmechanics/sim_ecub_1-1_l_upperarm.stl" scale="0.001 0.001 0.001"/>
      </geometry>
      <material name="">
        <color rgba="1 1 1 1"/>
      </material>
    </collision>
  </link>
  <joint name="l_elbow" type="revolute">
    <origin xyz="0.009999999999996342 -0.0014999999999996405 -0.12369999999999956" rpy="-3.1641356201817088e-15 -3.134298376394895e-14 -7.827072323607395e-15"/>
    <axis xyz="-4.215378046622413e-16 -0.9999999999999953 6.5780714209038095e-15"/>
    <parent link="l_upper_arm"/>
    <child link="l_forearm"/>
    <limit lower="-0.08726646259971647" upper="2.0943951023931953" effort="1e+9" velocity="1e+9"/>
    <dynamics damping="2" friction="0"/>
  </joint>
  <link name="l_forearm">
    <inertial>
      <mass value="1.4604487031386884"/>
      <origin xyz="-0.018553263328673478 0.0023119252259846124 -0.08919372240797706" rpy="0 -0 0"/>
      <inertia ixx="0.003893738896214435" ixy="-3.4642535094897738e-6" ixz="-4.190258302572787e-5" iyy="0.003967428265005762" iyz="-1.2157659778638894e-5" izz="0.0015062007003231051"/>
    </inertial>
    <visual>
      <origin xyz="0 0 0" rpy="0 -0 0"/>
      <geometry>
        <mesh filename="package://ergoCub/meshes/simmechanics/sim_ecub_1-1_l_forearm.stl" scale="0.001 0.001 0.001"/>
      </geometry>
      <material name="">
        <color rgba="1 1 1 1"/>
      </material>
    </visual>
    <collision>
      <origin xyz="0 0 0" rpy="0 -0 0"/>
      <geometry>
        <mesh filename="package://ergoCub/meshes/simmechanics/sim_ecub_1-1_l_forearm.stl" scale="0.001 0.001 0.001"/>
      </geometry>
      <material name="">
        <color rgba="1 1 1 1"/>
      </material>
    </collision>
  </link>
  <joint name="l_wrist_yaw" type="revolute">
    <origin xyz="-0.014999999999992455 0.0020000000000007234 -0.1943500000000013" rpy="-2.775557561562897e-16 -7.741723928589295e-14 -5.551115123125795e-17"/>
    <axis xyz="-3.1023794644369224e-14 2.9420910152566676e-15 -0.9999999999999981"/>
    <parent link="l_forearm"/>
    <child link="l_wrist_1"/>
    <limit lower="-1.6057029118347832" upper="1.6057029118347832" effort="1e+9" velocity="1e+9"/>
    <dynamics damping="2" friction="0"/>
  </joint>
  <link name="l_wrist_1">
    <inertial>
      <mass value="0.1226928"/>
      <origin xyz="1.4545073498396788e-4 -1.5595311920038601e-4 0.022377795694245" rpy="0 -0 0"/>
      <inertia ixx="4.99469100996649e-5" ixy="-2.787171151199186e-7" ixz="-6.017806812164961e-7" iyy="4.93613984105829e-5" iyz="7.090130898393705e-7" izz="5.040833558305853e-5"/>
    </inertial>
    <visual>
      <origin xyz="0 0 0" rpy="0 -0 0"/>
      <geometry>
        <mesh filename="package://ergoCub/meshes/simmechanics/sim_ecub_1-1_l_wrist_1.stl" scale="0.001 0.001 0.001"/>
      </geometry>
      <material name="">
        <color rgba="0.6 0.6 0.6 1"/>
      </material>
    </visual>
    <collision>
      <origin xyz="0 0 0" rpy="0 -0 0"/>
      <geometry>
        <mesh filename="package://ergoCub/meshes/simmechanics/sim_ecub_1-1_l_wrist_1.stl" scale="0.001 0.001 0.001"/>
      </geometry>
      <material name="">
        <color rgba="0.6 0.6 0.6 1"/>
      </material>
    </collision>
  </link>
  <joint name="l_wrist_roll" type="revolute">
    <origin xyz="2.7755575615628914e-17 1.942890293094024e-16 2.7755575615628914e-17" rpy="3.885780586188047e-16 9.71445146547012e-17 -4.440892098500624e-16"/>
    <axis xyz="-1.0000000000000004 4.909267437014364e-16 -2.0122792321330943e-16"/>
    <parent link="l_wrist_1"/>
    <child link="l_wrist_2"/>
    <limit lower="-0.3490658503988659" upper="0.5235987755982988" effort="1e+9" velocity="1e+9"/>
    <dynamics damping="2" friction="0"/>
  </joint>
  <link name="l_wrist_2">
    <inertial>
      <mass value="0.02118836"/>
      <origin xyz="-7.4183919215875535e-9 -7.897157534373368e-4 -0.0046969679508168105" rpy="0 -0 0"/>
      <inertia ixx="1.588238425453937e-6" ixy="-2.165272906156668e-11" ixz="7.915941092897307e-11" iyy="1.6073132474088142e-6" iyz="-7.554073452985005e-8" izz="2.5064973929673043e-6"/>
    </inertial>
    <visual>
      <origin xyz="0 0 0" rpy="0 -0 0"/>
      <geometry>
        <mesh filename="package://ergoCub/meshes/simmechanics/sim_ecub_1-1_l_wrist_2.stl" scale="0.001 0.001 0.001"/>
      </geometry>
      <material name="">
        <color rgba="0.5 0.5 0.5 1"/>
      </material>
    </visual>
    <collision>
      <origin xyz="0 0 0" rpy="0 -0 0"/>
      <geometry>
        <mesh filename="package://ergoCub/meshes/simmechanics/sim_ecub_1-1_l_wrist_2.stl" scale="0.001 0.001 0.001"/>
      </geometry>
      <material name="">
        <color rgba="0.5 0.5 0.5 1"/>
      </material>
    </collision>
  </link>
  <joint name="l_wrist_pitch" type="revolute">
    <origin xyz="-1.214306433183765e-16 -1.6653345369377348e-16 0" rpy="-4.163336342344336e-16 1.0798191507621624e-10 3.330669073875468e-16"/>
    <axis xyz="-2.4459601009774425e-16 -1.0000000000000002 -1.3600232051562635e-15"/>
    <parent link="l_wrist_2"/>
    <child link="l_hand_palm"/>
    <limit lower="-0.3490658503988659" upper="0.3490658503988659" effort="1e+9" velocity="1e+9"/>
    <dynamics damping="2" friction="0"/>
  </joint>
  <link name="l_hand_palm">
    <inertial>
      <mass value="0.20364988213680776"/>
      <origin xyz="-0.003950502224178115 0.0019881930945492288 -0.058015852438740544" rpy="0 -0 0"/>
      <inertia ixx="1.461813098502197e-4" ixy="-3.793772344466637e-6" ixz="-1.1466988740793722e-5" iyy="2.145411925003367e-4" iyz="-3.736671542252551e-6" izz="1.0648405292544985e-4"/>
    </inertial>
    <visual>
      <origin xyz="0 0 0" rpy="0 -0 0"/>
      <geometry>
        <mesh filename="package://ergoCub/meshes/simmechanics/sim_ecub_1-1_l_hand_palm.stl" scale="0.001 0.001 0.001"/>
      </geometry>
      <material name="">
        <color rgba="1 1 1 1"/>
      </material>
    </visual>
    <collision>
      <origin xyz="0 0 0" rpy="0 -0 0"/>
      <geometry>
        <mesh filename="package://ergoCub/meshes/simmechanics/sim_ecub_1-1_l_hand_palm.stl" scale="0.001 0.001 0.001"/>
      </geometry>
      <material name="">
        <color rgba="1 1 1 1"/>
      </material>
    </collision>
  </link>
  <joint name="l_index_add" type="revolute">
    <origin xyz="0.02249999999999998 -0.0015000000000006952 -0.06859999999999966" rpy="-8.126657451512499e-16 -0.29670597224465534 5.804755322508928e-17"/>
    <axis xyz="1.1895336853461882e-15 1 -1.9534484957057052e-15"/>
    <parent link="l_hand_palm"/>
    <child link="l_hand_index_1"/>
    <limit lower="0" upper="0.2617993877991494" effort="1e+9" velocity="1e+9"/>
    <dynamics damping="2" friction="0"/>
  </joint>
  <link name="l_hand_index_1">
    <inertial>
      <mass value="0.01923264"/>
      <origin xyz="0.008430306749277854 0.0038510231844406384 -0.017148502808541133" rpy="0 -0 0"/>
      <inertia ixx="2.6252721263619075e-6" ixy="-9.94793061395749e-8" ixz="4.4747998977494927e-7" iyy="2.8117732161881507e-6" iyz="-3.9466206080886376e-8" izz="1.2100925115556048e-6"/>
    </inertial>
    <visual>
      <origin xyz="0 0 0" rpy="0 -0 0"/>
      <geometry>
        <mesh filename="package://ergoCub/meshes/simmechanics/sim_ecub_1-1_l_hand_index_1.stl" scale="0.001 0.001 0.001"/>
      </geometry>
      <material name="">
        <color rgba="0.5 0.5 0.5 1"/>
      </material>
    </visual>
    <collision>
      <origin xyz="0 0 0" rpy="0 -0 0"/>
      <geometry>
        <mesh filename="package://ergoCub/meshes/simmechanics/sim_ecub_1-1_l_hand_index_1.stl" scale="0.001 0.001 0.001"/>
      </geometry>
      <material name="">
        <color rgba="0.5 0.5 0.5 1"/>
      </material>
    </collision>
  </link>
  <joint name="l_middle_prox" type="revolute">
    <origin xyz="0.00960000000000016 -0.0015000000000005842 -0.10299999999999959" rpy="5.479728916549446e-4 1.4363510381087963e-15 -8.32667268468867e-16"/>
    <axis xyz="-1.0000000000000004 1.6098145522958664e-16 4.176883423103147e-15"/>
    <parent link="l_hand_palm"/>
    <child link="l_hand_middle_1"/>
    <limit lower="0" upper="1.5707963267948966" effort="1e+9" velocity="1e+9"/>
    <dynamics damping="2" friction="0"/>
  </joint>
  <link name="l_hand_middle_1">
    <inertial>
      <mass value="0.007486366"/>
      <origin xyz="5.609414423399586e-5 0.0010938363913530202 -0.0174225309754375" rpy="0 -0 0"/>
      <inertia ixx="1.5929480475374711e-6" ixy="-9.219821293951626e-10" ixz="-9.505332652309699e-9" iyy="1.5230397093076881e-6" iyz="1.1029328740444945e-7" izz="3.1819719384777893e-7"/>
    </inertial>
    <visual>
      <origin xyz="0 0 0" rpy="0 -0 0"/>
      <geometry>
        <mesh filename="package://ergoCub/meshes/simmechanics/sim_ecub_1-1_l_hand_middle_1.stl" scale="0.001 0.001 0.001"/>
      </geometry>
      <material name="">
        <color rgba="0.5 0.5 0.5 1"/>
      </material>
    </visual>
    <collision>
      <origin xyz="0 0 0" rpy="0 -0 0"/>
      <geometry>
        <mesh filename="package://ergoCub/meshes/simmechanics/sim_ecub_1-1_l_hand_middle_1.stl" scale="0.001 0.001 0.001"/>
      </geometry>
      <material name="">
        <color rgba="0.5 0.5 0.5 1"/>
      </material>
    </collision>
  </link>
  <joint name="l_pinkie_prox" type="revolute">
    <origin xyz="-0.035982322249527285 -0.0023883158589564635 -0.09206560929209856" rpy="-1.9934591492976922e-5 0.08728175651239228 0.02618761244812705"/>
    <axis xyz="-0.9999999998538295 7.644772463726695e-6 -1.529375771042174e-5"/>
    <parent link="l_hand_palm"/>
    <child link="l_hand_pinkie_1"/>
    <limit lower="0" upper="1.5707963267948966" effort="1e+9" velocity="1e+9"/>
    <dynamics damping="2" friction="0"/>
  </joint>
  <link name="l_hand_pinkie_1">
    <inertial>
      <mass value="0.006357586"/>
      <origin xyz="3.6554577562467744e-5 0.0012135491682558897 -0.015052861815374408" rpy="0 -0 0"/>
      <inertia ixx="1.1595706744459758e-6" ixy="1.817145860874702e-10" ixz="-5.131228041325918e-9" iyy="1.1053210733791516e-6" iyz="9.124017197402374e-8" izz="2.734185829473546e-7"/>
    </inertial>
    <visual>
      <origin xyz="0 0 0" rpy="0 -0 0"/>
      <geometry>
        <mesh filename="package://ergoCub/meshes/simmechanics/sim_ecub_1-1_l_hand_pinkie_1.stl" scale="0.001 0.001 0.001"/>
      </geometry>
      <material name="">
        <color rgba="0.5 0.5 0.5 1"/>
      </material>
    </visual>
    <collision>
      <origin xyz="0 0 0" rpy="0 -0 0"/>
      <geometry>
        <mesh filename="package://ergoCub/meshes/simmechanics/sim_ecub_1-1_l_hand_pinkie_1.stl" scale="0.001 0.001 0.001"/>
      </geometry>
      <material name="">
        <color rgba="0.5 0.5 0.5 1"/>
      </material>
    </collision>
  </link>
  <joint name="l_ring_prox" type="revolute">
    <origin xyz="-0.015417755558120038 -0.0018498137284707894 -0.09788067183884419" rpy="-4.001819369804634e-5 0.08726646259973214 0.026179938779914452"/>
    <axis xyz="-1.0000000000000002 4.364549018964596e-17 3.6637359812630166e-15"/>
    <parent link="l_hand_palm"/>
    <child link="l_hand_ring_1"/>
    <limit lower="0" upper="1.5707963267948966" effort="1e+9" velocity="1e+9"/>
    <dynamics damping="2" friction="0"/>
  </joint>
  <link name="l_hand_ring_1">
    <inertial>
      <mass value="0.007486366"/>
      <origin xyz="5.610953414397422e-5 0.001113903955753115 -0.017428756834488968" rpy="0 -0 0"/>
      <inertia ixx="1.5926175322430852e-6" ixy="-7.593027571592815e-10" ixz="-9.630025713700034e-9" iyy="1.522746441882303e-6" iyz="1.1162272723786417e-7" izz="3.177930886696654e-7"/>
    </inertial>
    <visual>
      <origin xyz="0 0 0" rpy="0 -0 0"/>
      <geometry>
        <mesh filename="package://ergoCub/meshes/simmechanics/sim_ecub_1-1_l_hand_ring_1.stl" scale="0.001 0.001 0.001"/>
      </geometry>
      <material name="">
        <color rgba="0.5 0.5 0.5 1"/>
      </material>
    </visual>
    <collision>
      <origin xyz="0 0 0" rpy="0 -0 0"/>
      <geometry>
        <mesh filename="package://ergoCub/meshes/simmechanics/sim_ecub_1-1_l_hand_ring_1.stl" scale="0.001 0.001 0.001"/>
      </geometry>
      <material name="">
        <color rgba="0.5 0.5 0.5 1"/>
      </material>
    </collision>
  </link>
  <joint name="l_thumb_add" type="revolute">
    <origin xyz="0.023374863260117725 -0.0029999999999976157 -0.03452383847102958" rpy="-0.04044970063850262 0.22331918647175172 2.960843541265423"/>
    <axis xyz="1.0630468727512721e-10 1.8935387979812646e-11 -1"/>
    <parent link="l_hand_palm"/>
    <child link="l_hand_thumb_1"/>
    <limit lower="0" upper="1.7453292519943295" effort="1e+9" velocity="1e+9"/>
    <dynamics damping="2" friction="0"/>
  </joint>
  <link name="l_hand_thumb_1">
    <inertial>
      <mass value="0.029029542280278556"/>
      <origin xyz="-0.018039176431428286 -0.0028662725726853466 0.0021177719486905056" rpy="0 -0 0"/>
      <inertia ixx="2.7178312304541084e-6" ixy="-3.676108153783739e-7" ixz="-2.7762391665657096e-7" iyy="7.273678916289491e-6" iyz="1.0493561895389714e-7" izz="5.835849245332402e-6"/>
    </inertial>
    <visual>
      <origin xyz="0 0 0" rpy="0 -0 0"/>
      <geometry>
        <mesh filename="package://ergoCub/meshes/simmechanics/sim_ecub_1-1_l_hand_thumb_1.stl" scale="0.001 0.001 0.001"/>
      </geometry>
      <material name="">
        <color rgba="0.5 0.5 0.5 1"/>
      </material>
    </visual>
    <collision>
      <origin xyz="0 0 0" rpy="0 -0 0"/>
      <geometry>
        <mesh filename="package://ergoCub/meshes/simmechanics/sim_ecub_1-1_l_hand_thumb_1.stl" scale="0.001 0.001 0.001"/>
      </geometry>
      <material name="">
        <color rgba="0.5 0.5 0.5 1"/>
      </material>
    </collision>
  </link>
  <joint name="l_thumb_prox" type="revolute">
    <origin xyz="-0.038093197450346165 -0.003259193858544701 -0.00360174480372083" rpy="1.430574412172528 -0.1970305979994926 1.5984202269739933"/>
    <axis xyz="-0.9999999999999998 1.5642265260851218e-11 1.7937463320238933e-10"/>
    <parent link="l_hand_thumb_1"/>
    <child link="l_hand_thumb_2"/>
    <limit lower="0" upper="1.5707963267948966" effort="1e+9" velocity="1e+9"/>
    <dynamics damping="2" friction="0"/>
  </joint>
  <link name="l_hand_thumb_2">
    <inertial>
      <mass value="0.00744305878263309"/>
      <origin xyz="1.1691393252494242e-5 3.0451625727886955e-4 -0.014894613059881514" rpy="0 -0 0"/>
      <inertia ixx="1.2541777770432416e-6" ixy="-1.1476849159108375e-9" ixz="-7.0578230748606685e-9" iyy="1.1945154816561718e-6" iyz="4.8907492724357073e-8" izz="2.9639199131202374e-7"/>
    </inertial>
    <visual>
      <origin xyz="0 0 0" rpy="0 -0 0"/>
      <geometry>
        <mesh filename="package://ergoCub/meshes/simmechanics/sim_ecub_1-1_l_hand_thumb_2.stl" scale="0.001 0.001 0.001"/>
      </geometry>
      <material name="">
        <color rgba="0.5 0.5 0.5 1"/>
      </material>
    </visual>
    <collision>
      <origin xyz="0 0 0" rpy="0 -0 0"/>
      <geometry>
        <mesh filename="package://ergoCub/meshes/simmechanics/sim_ecub_1-1_l_hand_thumb_2.stl" scale="0.001 0.001 0.001"/>
      </geometry>
      <material name="">
        <color rgba="0.5 0.5 0.5 1"/>
      </material>
    </collision>
  </link>
  <joint name="l_thumb_dist" type="revolute">
    <origin xyz="0 -0.0037106254246526416 -0.03483505790088366" rpy="-0.06328877097738303 6.661338147750939e-16 3.372302437298914e-15"/>
    <axis xyz="-0.9999999999999997 4.264582097089572e-12 1.8000554279149736e-10"/>
    <parent link="l_hand_thumb_2"/>
    <child link="l_hand_thumb_3"/>
    <limit lower="0" upper="1.7697638615222502" effort="1e+9" velocity="1e+9"/>
    <dynamics damping="2" friction="0"/>
  </joint>
  <link name="l_hand_thumb_3">
    <inertial>
      <mass value="0.00839103052424309"/>
      <origin xyz="-2.8909987974501394e-5 0.0027777675147018788 -0.016956792352400222" rpy="0 -0 0"/>
      <inertia ixx="1.71715520426587e-6" ixy="-7.47434022831971e-10" ixz="3.84131989369952e-9" iyy="1.7231655332127887e-6" iyz="-8.612379108859374e-8" izz="3.3107892469762807e-7"/>
    </inertial>
    <visual>
      <origin xyz="0 0 0" rpy="0 -0 0"/>
      <geometry>
        <mesh filename="package://ergoCub/meshes/simmechanics/sim_ecub_1-1_l_hand_thumb_3.stl" scale="0.001 0.001 0.001"/>
      </geometry>
      <material name="">
        <color rgba="0.5 0.5 0.5 1"/>
      </material>
    </visual>
    <collision>
      <origin xyz="0 0 0" rpy="0 -0 0"/>
      <geometry>
        <mesh filename="package://ergoCub/meshes/simmechanics/sim_ecub_1-1_l_hand_thumb_3.stl" scale="0.001 0.001 0.001"/>
      </geometry>
      <material name="">
        <color rgba="0.5 0.5 0.5 1"/>
      </material>
    </collision>
  </link>
  <joint name="l_ring_dist" type="revolute">
    <origin xyz="1.4987329953475292e-11 -0.0015000000002768354 -0.04000000000073728" rpy="-1.2044308636062927e-4 -1.0794291155358238e-10 -2.509104035652854e-13"/>
    <axis xyz="-1 -2.617159685310911e-13 1.0794249544288393e-10"/>
    <parent link="l_hand_ring_1"/>
    <child link="l_hand_ring_2"/>
    <limit lower="0" upper="1.7994344588061537" effort="1e+9" velocity="1e+9"/>
    <dynamics damping="2" friction="0"/>
  </joint>
  <link name="l_hand_ring_2">
    <inertial>
      <mass value="0.007251413"/>
      <origin xyz="4.433654030530642e-5 0.0027546754597598533 -0.01889085949732494" rpy="0 -0 0"/>
      <inertia ixx="1.9331168483007796e-6" ixy="-8.964055458821853e-11" ixz="-7.917778264767445e-9" iyy="1.9366717747954655e-6" iyz="-7.299706676136226e-8" izz="3.1694089240456203e-7"/>
    </inertial>
    <visual>
      <origin xyz="0 0 0" rpy="0 -0 0"/>
      <geometry>
        <mesh filename="package://ergoCub/meshes/simmechanics/sim_ecub_1-1_l_hand_ring_2.stl" scale="0.001 0.001 0.001"/>
      </geometry>
      <material name="">
        <color rgba="0.5 0.5 0.5 1"/>
      </material>
    </visual>
    <collision>
      <origin xyz="0 0 0" rpy="0 -0 0"/>
      <geometry>
        <mesh filename="package://ergoCub/meshes/simmechanics/sim_ecub_1-1_l_hand_ring_2.stl" scale="0.001 0.001 0.001"/>
      </geometry>
      <material name="">
        <color rgba="0.5 0.5 0.5 1"/>
      </material>
    </collision>
  </link>
  <joint name="l_pinkie_dist" type="revolute">
    <origin xyz="1.4015903021524778e-11 -0.0014999999962120036 -0.03500000000709719" rpy="-4.438681233740257e-5 -1.0794289073690067e-10 -2.489120021209601e-13"/>
    <axis xyz="-0.9999999998538309 7.645451042193251e-6 -1.5293310428212298e-5"/>
    <parent link="l_hand_pinkie_1"/>
    <child link="l_hand_pinkie_2"/>
    <limit lower="0" upper="1.7226399717184033" effort="1e+9" velocity="1e+9"/>
    <dynamics damping="2" friction="0"/>
  </joint>
  <link name="l_hand_pinkie_2">
    <inertial>
      <mass value="0.007240237"/>
      <origin xyz="2.2378292628411067e-5 0.0027712834790767915 -0.018930353878106154" rpy="0 -0 0"/>
      <inertia ixx="1.9251949577353665e-6" ixy="-4.6071411032444134e-10" ixz="-3.7359984605543596e-9" iyy="1.9290048779043837e-6" iyz="-7.606337504739766e-8" izz="3.162424517550918e-7"/>
    </inertial>
    <visual>
      <origin xyz="0 0 0" rpy="0 -0 0"/>
      <geometry>
        <mesh filename="package://ergoCub/meshes/simmechanics/sim_ecub_1-1_l_hand_pinkie_2.stl" scale="0.001 0.001 0.001"/>
      </geometry>
      <material name="">
        <color rgba="0.5 0.5 0.5 1"/>
      </material>
    </visual>
    <collision>
      <origin xyz="0 0 0" rpy="0 -0 0"/>
      <geometry>
        <mesh filename="package://ergoCub/meshes/simmechanics/sim_ecub_1-1_l_hand_pinkie_2.stl" scale="0.001 0.001 0.001"/>
      </geometry>
      <material name="">
        <color rgba="0.5 0.5 0.5 1"/>
      </material>
    </collision>
  </link>
  <joint name="l_middle_dist" type="revolute">
    <origin xyz="1.5440777129116512e-11 -0.001499999999999363 -0.03999999999896309" rpy="0.017535706363213464 -1.0797945176888035e-10 5.917488721252084e-14"/>
    <axis xyz="-1 1.952334931070572e-12 1.0795870667149422e-10"/>
    <parent link="l_hand_middle_1"/>
    <child link="l_hand_middle_2"/>
    <limit lower="0" upper="1.7994344588061537" effort="1e+9" velocity="1e+9"/>
    <dynamics damping="2" friction="0"/>
  </joint>
  <link name="l_hand_middle_2">
    <inertial>
      <mass value="0.007251413"/>
      <origin xyz="4.4316320155644157e-5 0.0027547229469275236 -0.018890877319942878" rpy="0 -0 0"/>
      <inertia ixx="1.933060230194342e-6" ixy="-1.5243567957691928e-10" ixz="-7.8198851655833e-9" iyy="1.9366210236852174e-6" iyz="-7.316224558810137e-8" izz="3.1681825706684464e-7"/>
    </inertial>
    <visual>
      <origin xyz="0 0 0" rpy="0 -0 0"/>
      <geometry>
        <mesh filename="package://ergoCub/meshes/simmechanics/sim_ecub_1-1_l_hand_middle_2.stl" scale="0.001 0.001 0.001"/>
      </geometry>
      <material name="">
        <color rgba="0.5 0.5 0.5 1"/>
      </material>
    </visual>
    <collision>
      <origin xyz="0 0 0" rpy="0 -0 0"/>
      <geometry>
        <mesh filename="package://ergoCub/meshes/simmechanics/sim_ecub_1-1_l_hand_middle_2.stl" scale="0.001 0.001 0.001"/>
      </geometry>
      <material name="">
        <color rgba="0.5 0.5 0.5 1"/>
      </material>
    </collision>
  </link>
  <joint name="l_index_prox" type="revolute">
    <origin xyz="0.009192533346793458 0 -0.030713451309624218" rpy="-2.220446049250313e-16 -7.023612108580934e-10 -8.326672684688674e-16"/>
    <axis xyz="-1 1.387778780781435e-16 7.023653811333297e-10"/>
    <parent link="l_hand_index_1"/>
    <child link="l_hand_index_2"/>
    <limit lower="0" upper="1.5707963267948966" effort="1e+9" velocity="1e+9"/>
    <dynamics damping="2" friction="0"/>
  </joint>
  <link name="l_hand_index_2">
    <inertial>
      <mass value="0.007486366"/>
      <origin xyz="5.6100110941745274e-5 0.001113133191428639 -0.01742880406449937" rpy="0 -0 0"/>
      <inertia ixx="1.5919421212473372e-6" ixy="-8.197016561018782e-10" ixz="-9.495218356033137e-9" iyy="1.5224880972680802e-6" iyz="1.1144592625272454e-7" izz="3.1764737598732553e-7"/>
    </inertial>
    <visual>
      <origin xyz="0 0 0" rpy="0 -0 0"/>
      <geometry>
        <mesh filename="package://ergoCub/meshes/simmechanics/sim_ecub_1-1_l_hand_index_2.stl" scale="0.001 0.001 0.001"/>
      </geometry>
      <material name="">
        <color rgba="0.5 0.5 0.5 1"/>
      </material>
    </visual>
    <collision>
      <origin xyz="0 0 0" rpy="0 -0 0"/>
      <geometry>
        <mesh filename="package://ergoCub/meshes/simmechanics/sim_ecub_1-1_l_hand_index_2.stl" scale="0.001 0.001 0.001"/>
      </geometry>
      <material name="">
        <color rgba="0.5 0.5 0.5 1"/>
      </material>
    </collision>
  </link>
  <joint name="l_index_dist" type="revolute">
    <origin xyz="-5.551115123125783e-17 -0.0014999999999999458 -0.039999999999999813" rpy="-7.482326172536533e-8 1.734723475976807e-16 -6.106226635438361e-16"/>
    <axis xyz="-1 -2.359224176539984e-16 -1.3877780539145996e-17"/>
    <parent link="l_hand_index_2"/>
    <child link="l_hand_index_3"/>
    <limit lower="0" upper="1.7994344588061537" effort="1e+9" velocity="1e+9"/>
    <dynamics damping="2" friction="0"/>
  </joint>
  <link name="l_hand_index_3">
    <inertial>
      <mass value="0.007251413"/>
      <origin xyz="4.431356673249148e-5 0.0027546711855188366 -0.018890916917498335" rpy="0 -0 0"/>
      <inertia ixx="1.932816895772585e-6" ixy="-1.721386036062205e-10" ixz="-7.819556637146551e-9" iyy="1.9363709956455972e-6" iyz="-7.306511833741725e-8" izz="3.169078614257433e-7"/>
    </inertial>
    <visual>
      <origin xyz="0 0 0" rpy="0 -0 0"/>
      <geometry>
        <mesh filename="package://ergoCub/meshes/simmechanics/sim_ecub_1-1_l_hand_index_3.stl" scale="0.001 0.001 0.001"/>
      </geometry>
      <material name="">
        <color rgba="0.5 0.5 0.5 1"/>
      </material>
    </visual>
    <collision>
      <origin xyz="0 0 0" rpy="0 -0 0"/>
      <geometry>
        <mesh filename="package://ergoCub/meshes/simmechanics/sim_ecub_1-1_l_hand_index_3.stl" scale="0.001 0.001 0.001"/>
      </geometry>
      <material name="">
        <color rgba="0.5 0.5 0.5 1"/>
      </material>
    </collision>
  </link>
  <joint name="r_hip_roll" type="revolute">
    <origin xyz="-0.047250000000000625 -0.033099999999999824 -0.009000000000000091" rpy="-2.73316156054826e-16 2.504641391024977e-16 -3.1036377681447894e-15"/>
    <axis xyz="-1 -3.3813287685016297e-16 -7.120227705451219e-17"/>
    <parent link="r_hip_1"/>
    <child link="r_hip_2"/>
    <limit lower="-0.3490658503988659" upper="1.9373154697137058" effort="1e+9" velocity="1e+9"/>
    <dynamics damping="2" friction="0"/>
  </joint>
  <link name="r_hip_2">
    <inertial>
      <mass value="1.8425374083524118"/>
      <origin xyz="-0.004338858395569037 -4.276785411407025e-5 -0.03711583728304848" rpy="0 -0 0"/>
      <inertia ixx="0.003120303249647105" ixy="2.3735315120274186e-6" ixz="0.0010124685247925123" iyy="0.005459166113270065" iyz="-1.8523984061140002e-6" izz="0.003419002844852166"/>
    </inertial>
    <visual>
      <origin xyz="0 0 0" rpy="0 -0 0"/>
      <geometry>
        <mesh filename="package://ergoCub/meshes/simmechanics/sim_ecub_1-1_r_hip_2.stl" scale="0.001 0.001 0.001"/>
      </geometry>
      <material name="">
        <color rgba="0.6 0.6 0.6 1"/>
      </material>
    </visual>
    <collision>
      <origin xyz="0 0 0" rpy="0 -0 0"/>
      <geometry>
        <mesh filename="package://ergoCub/meshes/simmechanics/sim_ecub_1-1_r_hip_2.stl" scale="0.001 0.001 0.001"/>
      </geometry>
      <material name="">
        <color rgba="0.6 0.6 0.6 1"/>
      </material>
    </collision>
  </link>
  <joint name="r_leg_ft_sensor" type="fixed">
    <origin xyz="0.036699999999999976 -5.551115123125783e-17 -0.08969999999999992" rpy="-1.3775953441385743e-15 5.490828022886651e-16 1.6105578736269433e-15"/>
    <parent link="r_hip_2"/>
    <child link="r_hip_3"/>
  </joint>
  <link name="r_hip_3">
    <inertial>
      <mass value="2.147900058066585"/>
      <origin xyz="0.0051510124501743006 0.012832092744145235 -0.05168842502826221" rpy="0 -0 0"/>
      <inertia ixx="0.007193177523135792" ixy="3.498727117566612e-5" ixz="2.4096738440560362e-5" iyy="0.008149001665389528" iyz="-1.2572783372468582e-4" izz="0.0057278283877820494"/>
    </inertial>
    <visual>
      <origin xyz="0 0 0" rpy="0 -0 0"/>
      <geometry>
        <mesh filename="package://ergoCub/meshes/simmechanics/sim_ecub_1-1_r_hip_3.stl" scale="0.001 0.001 0.001"/>
      </geometry>
      <material name="">
        <color rgba="1 1 1 1"/>
      </material>
    </visual>
    <collision>
      <origin xyz="0 0 0" rpy="0 -0 0"/>
      <geometry>
        <mesh filename="package://ergoCub/meshes/simmechanics/sim_ecub_1-1_r_hip_3.stl" scale="0.001 0.001 0.001"/>
      </geometry>
      <material name="">
        <color rgba="1 1 1 1"/>
      </material>
    </collision>
  </link>
  <joint name="r_hip_yaw" type="revolute">
    <origin xyz="-2.8275992658421956e-16 0.014999999999999764 -0.07269999999999871" rpy="-3.9451416337953255e-15 7.430123072146073e-16 1.2193157749540274e-6"/>
    <axis xyz="-2.3953050245594653e-20 1.4749328491810898e-15 -1"/>
    <parent link="r_hip_3"/>
    <child link="r_upper_leg"/>
    <limit lower="-1.413716694115407" upper="1.413716694115407" effort="1e+9" velocity="1e+9"/>
    <dynamics damping="2" friction="0"/>
  </joint>
  <link name="r_upper_leg">
    <inertial>
      <mass value="2.784923431729287"/>
      <origin xyz="0.008517474024287675 -0.014468465702474021 -0.12674960557185616" rpy="0 -0 0"/>
      <inertia ixx="0.01186013252999811" ixy="5.455450241372543e-5" ixz="5.393573740676933e-4" iyy="0.01210913335208505" iyz="-4.0331041015476653e-4" izz="0.0022609706907693243"/>
    </inertial>
    <visual>
      <origin xyz="0 0 0" rpy="0 -0 0"/>
      <geometry>
        <mesh filename="package://ergoCub/meshes/simmechanics/sim_ecub_1-1_r_upper_leg.stl" scale="0.001 0.001 0.001"/>
      </geometry>
      <material name="">
        <color rgba="0.6 0.6 0.6 1"/>
      </material>
    </visual>
    <collision>
      <origin xyz="0 0 0" rpy="0 -0 0"/>
      <geometry>
        <mesh filename="package://ergoCub/meshes/simmechanics/sim_ecub_1-1_r_upper_leg.stl" scale="0.001 0.001 0.001"/>
      </geometry>
      <material name="">
        <color rgba="0.6 0.6 0.6 1"/>
      </material>
    </collision>
  </link>
  <joint name="r_knee" type="revolute">
    <origin xyz="0.01060000963260985 0.00789998707525931 -0.17970000000000058" rpy="6.892643261935339e-14 -6.650159361880639e-14 -1.219315770090442e-6"/>
    <axis xyz="1.2193157766326317e-6 -0.9999999999992567 4.719551160658935e-15"/>
    <parent link="r_upper_leg"/>
    <child link="r_lower_leg"/>
    <limit lower="-1.8325957145940461" upper="0.12217304763960307" effort="1e+9" velocity="1e+9"/>
    <dynamics damping="2" friction="0"/>
  </joint>
  <link name="r_lower_leg">
    <inertial>
      <mass value="3.7621532589747924"/>
      <origin xyz="0.0012157689164458522 -0.006184734585333342 -0.21372759879868175" rpy="0 -0 0"/>
      <inertia ixx="0.04644215616821937" ixy="3.7269274872175814e-5" ixz="-8.519885904633137e-4" iyy="0.047738936736850285" iyz="-0.0018042981721195497" izz="0.004839671863500647"/>
    </inertial>
    <visual>
      <origin xyz="0 0 0" rpy="0 -0 0"/>
      <geometry>
        <mesh filename="package://ergoCub/meshes/simmechanics/sim_ecub_1-1_r_lower_leg.stl" scale="0.001 0.001 0.001"/>
      </geometry>
      <material name="">
        <color rgba="1 1 1 1"/>
      </material>
    </visual>
    <collision>
      <origin xyz="0 0 0" rpy="0 -0 0"/>
      <geometry>
        <mesh filename="package://ergoCub/meshes/simmechanics/sim_ecub_1-1_r_lower_leg.stl" scale="0.001 0.001 0.001"/>
      </geometry>
      <material name="">
        <color rgba="1 1 1 1"/>
      </material>
    </collision>
  </link>
  <joint name="r_ankle_pitch" type="revolute">
    <origin xyz="-5.936223734792634e-15 -0.03190000000000005 -0.3210000000000002" rpy="-2.9932805576414174e-15 -2.0242047360524565e-14 8.880636788937802e-17"/>
    <axis xyz="-3.505264366441263e-17 1 -1.331317022347139e-16"/>
    <parent link="r_lower_leg"/>
    <child link="r_ankle_1"/>
    <limit lower="-0.7853981633974483" upper="0.7853981633974483" effort="1e+9" velocity="1e+9"/>
    <dynamics damping="2" friction="0"/>
  </joint>
  <link name="r_ankle_1">
    <inertial>
      <mass value="0.3481278950635556"/>
      <origin xyz="-0.0013672309746954776 -6.60186959019704e-4 -0.014087432401547305" rpy="0 -0 0"/>
      <inertia ixx="2.473401259521522e-4" ixy="8.99187320178455e-6" ixz="-1.033697569192024e-5" iyy="5.75349339563699e-4" iyz="5.5239266965789845e-5" izz="4.6267603893513845e-4"/>
    </inertial>
    <visual>
      <origin xyz="0 0 0" rpy="0 -0 0"/>
      <geometry>
        <mesh filename="package://ergoCub/meshes/simmechanics/sim_ecub_1-1_r_ankle_1.stl" scale="0.001 0.001 0.001"/>
      </geometry>
      <material name="">
        <color rgba="0.6 0.6 0.6 1"/>
      </material>
    </visual>
    <collision>
      <origin xyz="0 0 0" rpy="0 -0 0"/>
      <geometry>
        <mesh filename="package://ergoCub/meshes/simmechanics/sim_ecub_1-1_r_ankle_1.stl" scale="0.001 0.001 0.001"/>
      </geometry>
      <material name="">
        <color rgba="0.6 0.6 0.6 1"/>
      </material>
    </collision>
  </link>
  <joint name="r_ankle_roll" type="revolute">
    <origin xyz="-0.052750000000001546 0.018200000000000008 -0.0349999999999977" rpy="-1.0176053241861382e-24 3.8838282931741325e-14 -9.278622199115707e-23"/>
    <axis xyz="-1 -1.628246671334752e-16 2.560295622560413e-15"/>
    <parent link="r_ankle_1"/>
    <child link="r_ankle_2"/>
    <limit lower="-0.4363323129985824" upper="0.4363323129985824" effort="1e+9" velocity="1e+9"/>
    <dynamics damping="2" friction="0"/>
  </joint>
  <link name="r_ankle_2">
    <inertial>
      <mass value="1.5418216247038539"/>
      <origin xyz="0.04052646811695935 -8.642493098851012e-5 -0.023871143533700234" rpy="0 -0 0"/>
      <inertia ixx="0.002144088293229702" ixy="2.3071453411493782e-5" ixz="0.0013223759105869606" iyy="0.009438348902378931" iyz="-3.077717707147486e-5" izz="0.009024460701602049"/>
    </inertial>
    <visual>
      <origin xyz="0 0 0" rpy="0 -0 0"/>
      <geometry>
        <mesh filename="package://ergoCub/meshes/simmechanics/sim_ecub_1-1_r_ankle_2.stl" scale="0.001 0.001 0.001"/>
      </geometry>
      <material name="">
        <color rgba="1 1 1 1"/>
      </material>
    </visual>
    <collision>
      <origin xyz="0 0 0" rpy="0 -0 0"/>
      <geometry>
        <mesh filename="package://ergoCub/meshes/simmechanics/sim_ecub_1-1_r_ankle_2.stl" scale="0.001 0.001 0.001"/>
      </geometry>
      <material name="">
        <color rgba="1 1 1 1"/>
      </material>
    </collision>
  </link>
  <joint name="r_foot_front_ft_sensor" type="fixed">
    <origin xyz="0.13525000000000004 0 -0.04789999999999972" rpy="2.6613913647124785e-17 -9.20811369242055e-17 -1.4551888385804406e-15"/>
    <parent link="r_ankle_2"/>
    <child link="r_foot_front"/>
  </joint>
  <link name="r_foot_front">
    <inertial>
      <mass value="0.22110467939552797"/>
      <origin xyz="5.879202911245884e-4 -3.747924692820703e-9 -0.02000061661590058" rpy="0 -0 0"/>
      <inertia ixx="1.912506447891574e-4" ixy="2.357895453228089e-19" ixz="-3.4706466956949253e-9" iyy="2.6091266876367765e-4" iyz="5.375663344600725e-18" izz="4.500881026346283e-4"/>
    </inertial>
    <visual>
      <origin xyz="0 0 0" rpy="0 -0 0"/>
      <geometry>
        <mesh filename="package://ergoCub/meshes/simmechanics/sim_ecub_1-1_r_foot_front.stl" scale="0.001 0.001 0.001"/>
      </geometry>
      <material name="">
        <color rgba="1 0.51 0 1"/>
      </material>
    </visual>
    <collision>
      <origin xyz="0 0 -0.0193" rpy="0 -0 0"/>
      <geometry>
        <box size="0.117 0.1 0.006"/>
      </geometry>
    </collision>
  </link>
  <joint name="r_foot_rear_ft_sensor" type="fixed">
    <origin xyz="0.016 0 -0.04789999999999961" rpy="2.6613913647112164e-17 -9.208113692420588e-17 -1.566211141042955e-15"/>
    <parent link="r_ankle_2"/>
    <child link="r_foot_rear"/>
  </joint>
  <link name="r_foot_rear">
    <inertial>
      <mass value="0.22110467939552797"/>
      <origin xyz="5.879202911244878e-4 -3.747924665065128e-9 -0.020000616615901023" rpy="0 -0 0"/>
      <inertia ixx="1.9125064478893547e-4" ixy="2.3192252624427304e-19" ixz="-3.4706466752314563e-9" iyy="2.609126687634939e-4" iyz="5.375663150730269e-18" izz="4.5008810263463014e-4"/>
    </inertial>
    <visual>
      <origin xyz="0 0 0" rpy="0 -0 0"/>
      <geometry>
        <mesh filename="package://ergoCub/meshes/simmechanics/sim_ecub_1-1_r_foot_rear.stl" scale="0.001 0.001 0.001"/>
      </geometry>
      <material name="">
        <color rgba="1 0.51 0 1"/>
      </material>
    </visual>
    <collision>
      <origin xyz="0 0 -0.0193" rpy="0 -0 0"/>
      <geometry>
        <box size="0.117 0.1 0.006"/>
      </geometry>
    </collision>
  </link>
  <joint name="l_hip_roll" type="revolute">
    <origin xyz="-0.04725000000000078 0.033100000000000004 -0.009000000000000119" rpy="7.584245024416732e-16 1.5745686587446743e-30 1.1102230246251548e-16"/>
    <axis xyz="1 -6.123233995736708e-17 6.3201403498236e-16"/>
    <parent link="l_hip_1"/>
    <child link="l_hip_2"/>
    <limit lower="-0.3490658503988659" upper="1.9373154697137058" effort="1e+9" velocity="1e+9"/>
    <dynamics damping="2" friction="0"/>
  </joint>
  <link name="l_hip_2">
    <inertial>
      <mass value="1.8338392164825101"/>
      <origin xyz="-0.004125697068299468 3.917475804632309e-5 -0.03750964603556273" rpy="0 -0 0"/>
      <inertia ixx="0.003159514595905926" ixy="-1.6542815235215681e-6" ixz="9.977368607484037e-4" iyy="0.005488243677251951" iyz="-2.1904093887368695e-6" izz="0.0033984945726571185"/>
    </inertial>
    <visual>
      <origin xyz="0 0 0" rpy="0 -0 0"/>
      <geometry>
        <mesh filename="package://ergoCub/meshes/simmechanics/sim_ecub_1-1_l_hip_2.stl" scale="0.001 0.001 0.001"/>
      </geometry>
      <material name="">
        <color rgba="0.6 0.6 0.6 1"/>
      </material>
    </visual>
    <collision>
      <origin xyz="0 0 0" rpy="0 -0 0"/>
      <geometry>
        <mesh filename="package://ergoCub/meshes/simmechanics/sim_ecub_1-1_l_hip_2.stl" scale="0.001 0.001 0.001"/>
      </geometry>
      <material name="">
        <color rgba="0.6 0.6 0.6 1"/>
      </material>
    </collision>
  </link>
  <joint name="l_leg_ft_sensor" type="fixed">
    <origin xyz="0.036699999999999844 -1.3877787807814457e-17 -0.08970000000000003" rpy="-1.1075796462727634e-15 -1.9903300580169828e-30 2.775557561562846e-16"/>
    <parent link="l_hip_2"/>
    <child link="l_hip_3"/>
  </joint>
  <link name="l_hip_3">
    <inertial>
      <mass value="2.147524084050246"/>
      <origin xyz="0.005176125839593024 -0.01282881302682233 -0.05174852447453404" rpy="0 -0 0"/>
      <inertia ixx="0.007242161971060034" ixy="-3.321392954197042e-5" ixz="2.505985505401264e-5" iyy="0.008197962692605146" iyz="1.2474874840596051e-4" izz="0.005727458772759987"/>
    </inertial>
    <visual>
      <origin xyz="0 0 0" rpy="0 -0 0"/>
      <geometry>
        <mesh filename="package://ergoCub/meshes/simmechanics/sim_ecub_1-1_l_hip_3.stl" scale="0.001 0.001 0.001"/>
      </geometry>
      <material name="">
        <color rgba="1 1 1 1"/>
      </material>
    </visual>
    <collision>
      <origin xyz="0 0 0" rpy="0 -0 0"/>
      <geometry>
        <mesh filename="package://ergoCub/meshes/simmechanics/sim_ecub_1-1_l_hip_3.stl" scale="0.001 0.001 0.001"/>
      </geometry>
      <material name="">
        <color rgba="1 1 1 1"/>
      </material>
    </collision>
  </link>
  <joint name="l_hip_yaw" type="revolute">
    <origin xyz="-8.396061623727746e-16 -0.014999999999999944 -0.07269999999999993" rpy="3.0118838875648327e-16 1.1431429037212378e-14 -2.775557561562751e-16"/>
    <axis xyz="-8.622588011769357e-16 1.5936665473077025e-16 1"/>
    <parent link="l_hip_3"/>
    <child link="l_upper_leg"/>
    <limit lower="-1.413716694115407" upper="1.413716694115407" effort="1e+9" velocity="1e+9"/>
    <dynamics damping="2" friction="0"/>
  </joint>
  <link name="l_upper_leg">
    <inertial>
      <mass value="2.784923431765453"/>
      <origin xyz="0.008503494694160183 0.014484874736048647 -0.12674659802303312" rpy="0 -0 0"/>
      <inertia ixx="0.011852293952284196" ixy="-4.907145319317264e-5" ixz="5.393933817879138e-4" iyy="0.012109807149567942" iyz="3.9208918647670385e-4" izz="0.002253627916731084"/>
    </inertial>
    <visual>
      <origin xyz="0 0 0" rpy="0 -0 0"/>
      <geometry>
        <mesh filename="package://ergoCub/meshes/simmechanics/sim_ecub_1-1_l_upper_leg.stl" scale="0.001 0.001 0.001"/>
      </geometry>
      <material name="">
        <color rgba="0.6 0.6 0.6 1"/>
      </material>
    </visual>
    <collision>
      <origin xyz="0 0 0" rpy="0 -0 0"/>
      <geometry>
        <mesh filename="package://ergoCub/meshes/simmechanics/sim_ecub_1-1_l_upper_leg.stl" scale="0.001 0.001 0.001"/>
      </geometry>
      <material name="">
        <color rgba="0.6 0.6 0.6 1"/>
      </material>
    </collision>
  </link>
  <joint name="l_knee" type="revolute">
    <origin xyz="0.010600000000000822 -0.007900000000000185 -0.17969999999999958" rpy="1.970486418692682e-16 -1.1419428146632273e-14 2.8602839935211434e-15"/>
    <axis xyz="-2.608937546411318e-16 -1 5.166588955193111e-17"/>
    <parent link="l_upper_leg"/>
    <child link="l_lower_leg"/>
    <limit lower="-1.8325957145940461" upper="0.12217304763960307" effort="1e+9" velocity="1e+9"/>
    <dynamics damping="2" friction="0"/>
  </joint>
  <link name="l_lower_leg">
    <inertial>
      <mass value="3.767581145212888"/>
      <origin xyz="0.0014201768088090358 0.006186333743956739 -0.21383298861124922" rpy="0 -0 0"/>
      <inertia ixx="0.04647110900067475" ixy="-2.1189289797886653e-5" ixz="-8.110710215722959e-4" iyy="0.04776726641499918" iyz="0.0018123762001582078" izz="0.004840491251955261"/>
    </inertial>
    <visual>
      <origin xyz="0 0 0" rpy="0 -0 0"/>
      <geometry>
        <mesh filename="package://ergoCub/meshes/simmechanics/sim_ecub_1-1_l_lower_leg.stl" scale="0.001 0.001 0.001"/>
      </geometry>
      <material name="">
        <color rgba="1 1 1 1"/>
      </material>
    </visual>
    <collision>
      <origin xyz="0 0 0" rpy="0 -0 0"/>
      <geometry>
        <mesh filename="package://ergoCub/meshes/simmechanics/sim_ecub_1-1_l_lower_leg.stl" scale="0.001 0.001 0.001"/>
      </geometry>
      <material name="">
        <color rgba="1 1 1 1"/>
      </material>
    </collision>
  </link>
  <joint name="l_ankle_pitch" type="revolute">
    <origin xyz="-4.468647674116255e-15 0.03189999999999981 -0.3209999999999995" rpy="-1.9704864186927032e-16 -8.673617379880112e-19 -1.8683953730959558e-16"/>
    <axis xyz="-2.389602037081462e-16 1 1.4538275231733847e-16"/>
    <parent link="l_lower_leg"/>
    <child link="l_ankle_1"/>
    <limit lower="-0.7853981633974483" upper="0.7853981633974483" effort="1e+9" velocity="1e+9"/>
    <dynamics damping="2" friction="0"/>
  </joint>
  <link name="l_ankle_1">
    <inertial>
      <mass value="0.3481278951519182"/>
      <origin xyz="-0.0013852125067176195 6.601869600093568e-4 -0.014087432474324535" rpy="0 -0 0"/>
      <inertia ixx="2.473401268224257e-4" ixy="-8.882076128769303e-6" ixz="-7.868443555728613e-6" iyy="5.753321096553087e-4" iyz="-5.523926679103168e-5" izz="4.6265880787367867e-4"/>
    </inertial>
    <visual>
      <origin xyz="0 0 0" rpy="0 -0 0"/>
      <geometry>
        <mesh filename="package://ergoCub/meshes/simmechanics/sim_ecub_1-1_l_ankle_1.stl" scale="0.001 0.001 0.001"/>
      </geometry>
      <material name="">
        <color rgba="0.6 0.6 0.6 1"/>
      </material>
    </visual>
    <collision>
      <origin xyz="0 0 0" rpy="0 -0 0"/>
      <geometry>
        <mesh filename="package://ergoCub/meshes/simmechanics/sim_ecub_1-1_l_ankle_1.stl" scale="0.001 0.001 0.001"/>
      </geometry>
      <material name="">
        <color rgba="0.6 0.6 0.6 1"/>
      </material>
    </collision>
  </link>
  <joint name="l_ankle_roll" type="revolute">
    <origin xyz="-0.052750000000000324 -0.01819999999999991 -0.03499999999999959" rpy="3.340196646750626e-19 1.1217589357404033e-14 -2.3665827156630354e-30"/>
    <axis xyz="1 -4.05028482201375e-16 -1.2496691978128869e-15"/>
    <parent link="l_ankle_1"/>
    <child link="l_ankle_2"/>
    <limit lower="-0.4363323129985824" upper="0.4363323129985824" effort="1e+9" velocity="1e+9"/>
    <dynamics damping="2" friction="0"/>
  </joint>
  <link name="l_ankle_2">
    <inertial>
      <mass value="1.5418216247038539"/>
      <origin xyz="0.0405224005088543 -9.790751646740482e-5 -0.02387114353368558" rpy="0 -0 0"/>
      <inertia ixx="0.00213706133623208" ixy="1.9973294407387216e-5" ixz="0.0013251325687512008" iyy="0.00943819778520643" iyz="-1.5070602593015444e-5" izz="0.00901728262743037"/>
    </inertial>
    <visual>
      <origin xyz="0 0 0" rpy="0 -0 0"/>
      <geometry>
        <mesh filename="package://ergoCub/meshes/simmechanics/sim_ecub_1-1_l_ankle_2.stl" scale="0.001 0.001 0.001"/>
      </geometry>
      <material name="">
        <color rgba="1 1 1 1"/>
      </material>
    </visual>
    <collision>
      <origin xyz="0 0 0" rpy="0 -0 0"/>
      <geometry>
        <mesh filename="package://ergoCub/meshes/simmechanics/sim_ecub_1-1_l_ankle_2.stl" scale="0.001 0.001 0.001"/>
      </geometry>
      <material name="">
        <color rgba="1 1 1 1"/>
      </material>
    </collision>
  </link>
  <joint name="l_foot_front_ft_sensor" type="fixed">
    <origin xyz="0.13524999999999998 -5.551115123125783e-17 -0.04789999999999894" rpy="-8.997944700177166e-31 1.9428902930939596e-16 -9.788946385468152e-16"/>
    <parent link="l_ankle_2"/>
    <child link="l_foot_front"/>
  </joint>
  <link name="l_foot_front">
    <inertial>
      <mass value="0.22110467939552797"/>
      <origin xyz="5.879202911245329e-4 -3.747924692820703e-9 -0.02000061661590158" rpy="0 -0 0"/>
      <inertia ixx="1.9125064478898706e-4" ixy="2.0351856158593786e-19" ixz="-3.470646686211968e-9" iyy="2.6091266876353844e-4" iyz="9.784057075164868e-21" izz="4.5008810263460987e-4"/>
    </inertial>
    <visual>
      <origin xyz="0 0 0" rpy="0 -0 0"/>
      <geometry>
        <mesh filename="package://ergoCub/meshes/simmechanics/sim_ecub_1-1_l_foot_front.stl" scale="0.001 0.001 0.001"/>
      </geometry>
      <material name="">
        <color rgba="1 0.51 0 1"/>
      </material>
    </visual>
    <collision>
      <origin xyz="0 0 -0.0193" rpy="0 -0 0"/>
      <geometry>
        <box size="0.117 0.1 0.006"/>
      </geometry>
    </collision>
  </link>
  <joint name="l_foot_rear_ft_sensor" type="fixed">
    <origin xyz="0.015999999999999986 -4.163336342344337e-17 -0.04789999999999994" rpy="-1.0970096963229695e-30 1.942890293093975e-16 2.0306083615826833e-17"/>
    <parent link="l_ankle_2"/>
    <child link="l_foot_rear"/>
  </joint>
  <link name="l_foot_rear">
    <inertial>
      <mass value="0.22110467939552797"/>
      <origin xyz="5.879202911244826e-4 -3.7479246789429155e-9 -0.020000616615901134" rpy="0 -0 0"/>
      <inertia ixx="1.912506447889398e-4" ixy="2.0351856158593786e-19" ixz="-3.470646677571385e-9" iyy="2.6091266876349345e-4" iyz="9.784057075164868e-21" izz="4.50088102634634e-4"/>
    </inertial>
    <visual>
      <origin xyz="0 0 0" rpy="0 -0 0"/>
      <geometry>
        <mesh filename="package://ergoCub/meshes/simmechanics/sim_ecub_1-1_l_foot_rear.stl" scale="0.001 0.001 0.001"/>
      </geometry>
      <material name="">
        <color rgba="1 0.51 0 1"/>
      </material>
    </visual>
    <collision>
      <origin xyz="0 0 -0.0193" rpy="0 -0 0"/>
      <geometry>
        <box size="0.117 0.1 0.006"/>
      </geometry>
    </collision>
  </link>
  <link name="head_imu_0"/>
  <joint name="head_imu_0_fixed_joint" type="fixed">
    <origin xyz="-0.004299999999999899 -0.005500000000001061 0.03823450000000106" rpy="-3.141592653589788 -9.688477917552238e-15 1.5707963267948986"/>
    <parent link="head"/>
    <child link="head_imu_0"/>
  </joint>
  <link name="realsense_imu_0"/>
  <joint name="realsense_imu_0_fixed_joint" type="fixed">
    <origin xyz="0.007515481871156526 0.010000000000000002 1.7352099479506222e-8" rpy="-1.5707963267948966 3.7596758519972983e-16 -1.5707963267948966"/>
    <parent link="realsense"/>
    <child link="realsense_imu_0"/>
  </joint>
  <link name="l_arm_ft"/>
  <joint name="l_arm_ft_fixed_joint" type="fixed">
    <origin xyz="-0.004349999999999996 -2.7755575615628914e-17 -0.054300000000000015" rpy="3.141592653589793 2.498001805406602e-16 -1.5707963267948952"/>
    <parent link="l_shoulder_2"/>
    <child link="l_arm_ft"/>
  </joint>
  <link name="l_foot_front_ft"/>
  <joint name="l_foot_front_ft_fixed_joint" type="fixed">
    <origin xyz="0.13525 -4.163336342344337e-17 -0.047899999999999054" rpy="-4.259189482954547e-17 -7.513330770412076e-17 -2.0943951023931966"/>
    <parent link="l_ankle_2"/>
    <child link="l_foot_front_ft"/>
  </joint>
  <link name="l_foot_rear_ft"/>
  <joint name="l_foot_rear_ft_fixed_joint" type="fixed">
    <origin xyz="0.015999999999999993 -2.7755575615628914e-17 -0.04789999999999983" rpy="-4.259189482954531e-17 -7.513330770412153e-17 -2.0943951023931957"/>
    <parent link="l_ankle_2"/>
    <child link="l_foot_rear_ft"/>
  </joint>
  <link name="l_leg_ft"/>
  <joint name="l_leg_ft_fixed_joint" type="fixed">
    <origin xyz="0.03669999999999986 -1.3877787807814457e-17 -0.08969999999999997" rpy="-3.1415926535897927 -1.4675346083959194e-15 2.617993877991494"/>
    <parent link="l_hip_2"/>
    <child link="l_leg_ft"/>
  </joint>
  <link name="r_arm_ft"/>
  <joint name="r_arm_ft_fixed_joint" type="fixed">
    <origin xyz="-0.006849999999999986 -2.7755575615628914e-17 -0.05429999999999999" rpy="3.141592653589793 1.6653345369377348e-16 1.5707963267948981"/>
    <parent link="r_shoulder_2"/>
    <child link="r_arm_ft"/>
  </joint>
  <link name="r_foot_front_ft"/>
  <joint name="r_foot_front_ft_fixed_joint" type="fixed">
    <origin xyz="0.13525 1.3877787807814457e-17 -0.04789999999999983" rpy="-4.2591894829555776e-17 -7.513330770412949e-17 -2.094395102393197"/>
    <parent link="r_ankle_2"/>
    <child link="r_foot_front_ft"/>
  </joint>
  <link name="r_foot_rear_ft"/>
  <joint name="r_foot_rear_ft_fixed_joint" type="fixed">
    <origin xyz="0.016 1.3877787807814457e-17 -0.04789999999999994" rpy="-4.2591894829543154e-17 -7.513330770412949e-17 -2.0943951023931966"/>
    <parent link="r_ankle_2"/>
    <child link="r_foot_rear_ft"/>
  </joint>
  <link name="r_leg_ft"/>
  <joint name="r_leg_ft_fixed_joint" type="fixed">
    <origin xyz="0.03669999999999999 0 -0.08969999999999997" rpy="-3.1415926535897927 -8.654368135774127e-16 -2.6179938779914935"/>
    <parent link="r_hip_2"/>
    <child link="r_leg_ft"/>
  </joint>
  <link name="realsense_depth_frame"/>
  <joint name="realsense_depth_frame_fixed_joint" type="fixed">
    <origin xyz="0.007515481871156526 0.010000000000000002 1.7352099479506222e-8" rpy="-1.5707963267948966 3.7596758519972983e-16 -1.5707963267948966"/>
    <parent link="realsense"/>
    <child link="realsense_depth_frame"/>
  </joint>
  <link name="imu_frame"/>
  <joint name="imu_frame_fixed_joint" type="fixed">
    <origin xyz="-0.004299999999999899 -0.005500000000001061 0.03823450000000106" rpy="-3.141592653589788 -9.688477917552238e-15 1.5707963267948986"/>
    <parent link="head"/>
    <child link="imu_frame"/>
  </joint>
  <link name="realsense_rgb_frame"/>
  <joint name="realsense_rgb_frame_fixed_joint" type="fixed">
    <origin xyz="0.007515481871156526 -0.011499999999999996 1.7352099701550827e-8" rpy="-1.5707963267948966 3.7596758519972983e-16 -1.5707963267948966"/>
    <parent link="realsense"/>
    <child link="realsense_rgb_frame"/>
  </joint>
  <link name="head_laser_frame"/>
  <joint name="head_laser_frame_fixed_joint" type="fixed">
    <origin xyz="5.000000000061726e-5 -1.938549701738834e-15 0.13480249990363524" rpy="9.721954681893984e-15 5.33156930061495e-15 3.167605067133685e-15"/>
    <parent link="head"/>
    <child link="head_laser_frame"/>
  </joint>
  <link name="l_hand_index_skin_0"/>
  <joint name="l_hand_index_skin_0_fixed_joint" type="fixed">
    <origin xyz="-1.3877787807814457e-17 -0.002433918058236534 -0.03140545777888892" rpy="-5.286130912234566e-16 1.2225055986691187 -1.570796326794897"/>
    <parent link="l_hand_index_3"/>
    <child link="l_hand_index_skin_0"/>
  </joint>
  <link name="l_hand_index_skin_1"/>
  <joint name="l_hand_index_skin_1_fixed_joint" type="fixed">
    <origin xyz="0.0032999999999999974 -0.0031311476143919548 -0.033280418005286916" rpy="-5.049308804587452e-16 1.2200949024613605 -1.570796326794897"/>
    <parent link="l_hand_index_3"/>
    <child link="l_hand_index_skin_1"/>
  </joint>
  <link name="l_hand_index_skin_10"/>
  <joint name="l_hand_index_skin_10_fixed_joint" type="fixed">
    <origin xyz="-0.003300000000000025 -0.004081940988398508 -0.03776668459795801" rpy="-3.1415926535897913 1.5049109712528748 1.5707963267948997"/>
    <parent link="l_hand_index_3"/>
    <child link="l_hand_index_skin_10"/>
  </joint>
  <link name="l_hand_index_skin_11"/>
  <joint name="l_hand_index_skin_11_fixed_joint" type="fixed">
    <origin xyz="-0.0033000000000000113 -0.0031311476143919548 -0.033280418005286916" rpy="-5.049308804587451e-16 1.2200949024613599 -1.570796326794897"/>
    <parent link="l_hand_index_3"/>
    <child link="l_hand_index_skin_11"/>
  </joint>
  <link name="l_hand_index_skin_2"/>
  <joint name="l_hand_index_skin_2_fixed_joint" type="fixed">
    <origin xyz="-6.938893903907228e-18 -0.003758241653579991 -0.035192049408458936" rpy="-6.620570360759466e-16 1.3056813328515076 -1.5707963267948972"/>
    <parent link="l_hand_index_3"/>
    <child link="l_hand_index_skin_2"/>
  </joint>
  <link name="l_hand_index_skin_3"/>
  <joint name="l_hand_index_skin_3_fixed_joint" type="fixed">
    <origin xyz="0.0032999999999999974 -0.004081940988398425 -0.03776668459795801" rpy="-3.1415926535897913 1.5049109712528748 1.5707963267948997"/>
    <parent link="l_hand_index_3"/>
    <child link="l_hand_index_skin_3"/>
  </joint>
  <link name="l_hand_index_skin_4"/>
  <joint name="l_hand_index_skin_4_fixed_joint" type="fixed">
    <origin xyz="0.005929525942276338 -0.001192320688661208 -0.03799999999999998" rpy="3.1415926535897922 1.2994442229713599 2.7771555423255903"/>
    <parent link="l_hand_index_3"/>
    <child link="l_hand_index_skin_4"/>
  </joint>
  <link name="l_hand_index_skin_5"/>
  <joint name="l_hand_index_skin_5_fixed_joint" type="fixed">
    <origin xyz="1.3877787807814457e-17 -0.0034840921633512434 -0.03982136611863335" rpy="-3.1415926535897927 1.088751329798359 1.5707963267948972"/>
    <parent link="l_hand_index_3"/>
    <child link="l_hand_index_skin_5"/>
  </joint>
  <link name="l_hand_index_skin_6"/>
  <joint name="l_hand_index_skin_6_fixed_joint" type="fixed">
    <origin xyz="0.0032999999999999696 -0.001828801718873424 -0.04176963440415199" rpy="3.141592653589793 0.7788155893137823 2.5320677565812"/>
    <parent link="l_hand_index_3"/>
    <child link="l_hand_index_skin_6"/>
  </joint>
  <link name="l_hand_index_skin_7"/>
  <joint name="l_hand_index_skin_7_fixed_joint" type="fixed">
    <origin xyz="-6.938893903907228e-18 -2.9018466437888413e-4 -0.043259640911881" rpy="-3.141592653589793 0.6209480183022732 1.571212482632116"/>
    <parent link="l_hand_index_3"/>
    <child link="l_hand_index_skin_7"/>
  </joint>
  <link name="l_hand_index_skin_8"/>
  <joint name="l_hand_index_skin_8_fixed_joint" type="fixed">
    <origin xyz="-0.003300000000000025 -0.0018288017188733685 -0.041769634404151934" rpy="-3.1415926535897927 0.7788155893137829 0.6095248970085935"/>
    <parent link="l_hand_index_3"/>
    <child link="l_hand_index_skin_8"/>
  </joint>
  <link name="l_hand_index_skin_9"/>
  <joint name="l_hand_index_skin_9_fixed_joint" type="fixed">
    <origin xyz="-0.005929525942276387 -0.001192320688661208 -0.03799999999999998" rpy="-3.141592653589792 1.2994442229713608 0.36443711126420336"/>
    <parent link="l_hand_index_3"/>
    <child link="l_hand_index_skin_9"/>
  </joint>
  <link name="l_hand_middle_skin_0"/>
  <joint name="l_hand_middle_skin_0_fixed_joint" type="fixed">
    <origin xyz="0 -0.002433918058236506 -0.03140545777888887" rpy="1.626501819149097e-16 1.22250559866912 -1.5707963267948966"/>
    <parent link="l_hand_middle_2"/>
    <child link="l_hand_middle_skin_0"/>
  </joint>
  <link name="l_hand_middle_skin_1"/>
  <joint name="l_hand_middle_skin_1_fixed_joint" type="fixed">
    <origin xyz="0.0033000000000000043 -0.003131147614391927 -0.033280418005286805" rpy="1.615778817467984e-16 1.2200949024613614 -1.5707963267948966"/>
    <parent link="l_hand_middle_2"/>
    <child link="l_hand_middle_skin_1"/>
  </joint>
  <link name="l_hand_middle_skin_10"/>
  <joint name="l_hand_middle_skin_10_fixed_joint" type="fixed">
    <origin xyz="-0.003299999999999973 -0.004081940988398425 -0.037766684597957956" rpy="3.1415926535897922 1.5049109712528765 1.5707963267948972"/>
    <parent link="l_hand_middle_2"/>
    <child link="l_hand_middle_skin_10"/>
  </joint>
  <link name="l_hand_middle_skin_11"/>
  <joint name="l_hand_middle_skin_11_fixed_joint" type="fixed">
    <origin xyz="-0.003299999999999994 -0.0031311476143918715 -0.033280418005286805" rpy="1.615778817467984e-16 1.2200949024613614 -1.5707963267948966"/>
    <parent link="l_hand_middle_2"/>
    <child link="l_hand_middle_skin_11"/>
  </joint>
  <link name="l_hand_middle_skin_2"/>
  <joint name="l_hand_middle_skin_2_fixed_joint" type="fixed">
    <origin xyz="-6.938893903907228e-18 -0.0037582416535799634 -0.035192049408458936" rpy="2.118582515443029e-16 1.305681332851508 -1.5707963267948966"/>
    <parent link="l_hand_middle_2"/>
    <child link="l_hand_middle_skin_2"/>
  </joint>
  <link name="l_hand_middle_skin_3"/>
  <joint name="l_hand_middle_skin_3_fixed_joint" type="fixed">
    <origin xyz="0.0033000000000000113 -0.004081940988398369 -0.03776668459795801" rpy="3.1415926535897922 1.5049109712528765 1.5707963267948968"/>
    <parent link="l_hand_middle_2"/>
    <child link="l_hand_middle_skin_3"/>
  </joint>
  <link name="l_hand_middle_skin_4"/>
  <joint name="l_hand_middle_skin_4_fixed_joint" type="fixed">
    <origin xyz="0.005929525942276356 -0.0011923206886611804 -0.03799999999999998" rpy="3.1415926535897922 1.2994442229713614 2.7771555423255903"/>
    <parent link="l_hand_middle_2"/>
    <child link="l_hand_middle_skin_4"/>
  </joint>
  <link name="l_hand_middle_skin_5"/>
  <joint name="l_hand_middle_skin_5_fixed_joint" type="fixed">
    <origin xyz="1.0408340855860843e-17 -0.0034840921633511046 -0.03982136611863335" rpy="3.141592653589793 1.0887513297983595 1.570796326794897"/>
    <parent link="l_hand_middle_2"/>
    <child link="l_hand_middle_skin_5"/>
  </joint>
  <link name="l_hand_middle_skin_6"/>
  <joint name="l_hand_middle_skin_6_fixed_joint" type="fixed">
    <origin xyz="0.003300000000000008 -0.0018288017188733685 -0.04176963440415188" rpy="3.1415926535897927 0.7788155893137828 2.5320677565811995"/>
    <parent link="l_hand_middle_2"/>
    <child link="l_hand_middle_skin_6"/>
  </joint>
  <link name="l_hand_middle_skin_7"/>
  <joint name="l_hand_middle_skin_7_fixed_joint" type="fixed">
    <origin xyz="-3.469446951953614e-18 -2.9018466437885637e-4 -0.04325964091188095" rpy="3.141592653589793 0.6209480183022731 1.571212482632116"/>
    <parent link="l_hand_middle_2"/>
    <child link="l_hand_middle_skin_7"/>
  </joint>
  <link name="l_hand_middle_skin_8"/>
  <joint name="l_hand_middle_skin_8_fixed_joint" type="fixed">
    <origin xyz="-0.003299999999999994 -0.0018288017188733963 -0.041769634404151934" rpy="-3.141592653589793 0.7788155893137828 0.6095248970085932"/>
    <parent link="l_hand_middle_2"/>
    <child link="l_hand_middle_skin_8"/>
  </joint>
  <link name="l_hand_middle_skin_9"/>
  <joint name="l_hand_middle_skin_9_fixed_joint" type="fixed">
    <origin xyz="-0.0059295259422763695 -0.001192320688661208 -0.03799999999999998" rpy="-3.1415926535897922 1.2994442229713608 0.3644371112642029"/>
    <parent link="l_hand_middle_2"/>
    <child link="l_hand_middle_skin_9"/>
  </joint>
  <link name="l_hand_pinkie_skin_0"/>
  <joint name="l_hand_pinkie_skin_0_fixed_joint" type="fixed">
    <origin xyz="1.1364587082021704e-6 -0.0024339180633243807 -0.03140545776518122" rpy="4.4810406990145916e-5 1.222505598463966 -1.5707618523704918"/>
    <parent link="l_hand_pinkie_2"/>
    <child link="l_hand_pinkie_skin_0"/>
  </joint>
  <link name="l_hand_pinkie_skin_1"/>
  <joint name="l_hand_pinkie_skin_1_fixed_joint" type="fixed">
    <origin xyz="0.003301159802142385 -0.003131172849448638 -0.033280367523160825" rpy="4.451498643578038e-5 1.2200949022586114 -1.5707621667995164"/>
    <parent link="l_hand_pinkie_2"/>
    <child link="l_hand_pinkie_skin_1"/>
  </joint>
  <link name="l_hand_pinkie_skin_10"/>
  <joint name="l_hand_pinkie_skin_10_fixed_joint" type="fixed">
    <origin xyz="-0.003298778855785424 -0.004081915763448796 -0.037766735051979805" rpy="3.14136036390978 1.5049109693635563 1.5705568956520668"/>
    <parent link="l_hand_pinkie_2"/>
    <child link="l_hand_pinkie_skin_10"/>
  </joint>
  <link name="l_hand_pinkie_skin_11"/>
  <joint name="l_hand_pinkie_skin_11_fixed_joint" type="fixed">
    <origin xyz="-0.003298840196892895 -0.0031311223894700813 -0.033280468459722046" rpy="4.4514986435780384e-5 1.2200949022586114 -1.5707621667995162"/>
    <parent link="l_hand_pinkie_2"/>
    <child link="l_hand_pinkie_skin_11"/>
  </joint>
  <link name="l_hand_pinkie_skin_2"/>
  <joint name="l_hand_pinkie_skin_2_fixed_joint" type="fixed">
    <origin xyz="1.1842435866243894e-6 -0.0037582416586290635 -0.0351920493944633" rpy="5.8367315429754e-5 1.305681332537708 -1.570747644146057"/>
    <parent link="l_hand_pinkie_2"/>
    <child link="l_hand_pinkie_skin_2"/>
  </joint>
  <link name="l_hand_pinkie_skin_3"/>
  <joint name="l_hand_pinkie_skin_3_fixed_joint" type="fixed">
    <origin xyz="0.0033012211432498564 -0.00408196622342738 -0.03776663411541853" rpy="3.14136036390978 1.5049109693635563 1.5705568956520668"/>
    <parent link="l_hand_pinkie_2"/>
    <child link="l_hand_pinkie_skin_3"/>
  </joint>
  <link name="l_hand_pinkie_skin_4"/>
  <joint name="l_hand_pinkie_skin_4_fixed_joint" type="fixed">
    <origin xyz="0.005930772745783179 -0.0011923660276871306 -0.037999909302654955" rpy="3.141572315440389 1.2994585118923023 2.7771283028717044"/>
    <parent link="l_hand_pinkie_2"/>
    <child link="l_hand_pinkie_skin_4"/>
  </joint>
  <link name="l_hand_pinkie_skin_5"/>
  <joint name="l_hand_pinkie_skin_5_fixed_joint" type="fixed">
    <origin xyz="1.2571376604118834e-6 -0.003484092168408337 -0.03982136610406428" rpy="3.1415596646367674 1.0887513294579219 1.570759451523612"/>
    <parent link="l_hand_pinkie_2"/>
    <child link="l_hand_pinkie_skin_5"/>
  </joint>
  <link name="l_hand_pinkie_skin_6"/>
  <joint name="l_hand_pinkie_skin_6_fixed_joint" type="fixed">
    <origin xyz="0.0033012995883024976 -0.00182882695396816 -0.04176958392088087" rpy="3.1415803523625088 0.7788281285900823 2.532051470238895"/>
    <parent link="l_hand_pinkie_2"/>
    <child link="l_hand_pinkie_skin_6"/>
  </joint>
  <link name="l_hand_pinkie_skin_7"/>
  <joint name="l_hand_pinkie_skin_7_fixed_joint" type="fixed">
    <origin xyz="1.3341394995113054e-6 -2.901846695293475e-4 -0.04325964089653633" rpy="3.141573850067606 0.6209480244661378 1.571193897169884"/>
    <parent link="l_hand_pinkie_2"/>
    <child link="l_hand_pinkie_skin_7"/>
  </joint>
  <link name="l_hand_pinkie_skin_8"/>
  <joint name="l_hand_pinkie_skin_8_fixed_joint" type="fixed">
    <origin xyz="-0.003298700410732769 -0.0018287764939896034 -0.041769684857442146" rpy="3.1415803529363586 0.7788030498279591 0.6095086111791652"/>
    <parent link="l_hand_pinkie_2"/>
    <child link="l_hand_pinkie_skin_8"/>
  </joint>
  <link name="l_hand_pinkie_skin_9"/>
  <joint name="l_hand_pinkie_skin_9_fixed_joint" type="fixed">
    <origin xyz="-0.005928279137036092 -0.0011922753598834768 -0.0380000906680969" rpy="3.14157231834453 1.2994299338602708 0.36440987468608"/>
    <parent link="l_hand_pinkie_2"/>
    <child link="l_hand_pinkie_skin_9"/>
  </joint>
  <link name="l_hand_ring_skin_0"/>
  <joint name="l_hand_ring_skin_0_fixed_joint" type="fixed">
    <origin xyz="6.938893903907228e-18 -0.0024339180582365616 -0.03140545777888881" rpy="5.692756367021836e-16 1.222505598669119 -1.5707963267948966"/>
    <parent link="l_hand_ring_2"/>
    <child link="l_hand_ring_skin_0"/>
  </joint>
  <link name="l_hand_ring_skin_1"/>
  <joint name="l_hand_ring_skin_1_fixed_joint" type="fixed">
    <origin xyz="0.0033000000000000095 -0.0031311476143919548 -0.033280418005286805" rpy="5.655225861137946e-16 1.2200949024613605 -1.5707963267948966"/>
    <parent link="l_hand_ring_2"/>
    <child link="l_hand_ring_skin_1"/>
  </joint>
  <link name="l_hand_ring_skin_10"/>
  <joint name="l_hand_ring_skin_10_fixed_joint" type="fixed">
    <origin xyz="-0.0033000000000000043 -0.004081940988398369 -0.037766684597957956" rpy="3.141592653589791 1.5049109712528765 1.5707963267948966"/>
    <parent link="l_hand_ring_2"/>
    <child link="l_hand_ring_skin_10"/>
  </joint>
  <link name="l_hand_ring_skin_11"/>
  <joint name="l_hand_ring_skin_11_fixed_joint" type="fixed">
    <origin xyz="-0.0032999999999999887 -0.003131147614391927 -0.03328041800528686" rpy="5.655225861137945e-16 1.2200949024613605 -1.5707963267948966"/>
    <parent link="l_hand_ring_2"/>
    <child link="l_hand_ring_skin_11"/>
  </joint>
  <link name="l_hand_ring_skin_2"/>
  <joint name="l_hand_ring_skin_2_fixed_joint" type="fixed">
    <origin xyz="-5.204170427930421e-18 -0.003758241653579991 -0.03519204940845888" rpy="6.885393175189842e-16 1.305681332851508 -1.5707963267948963"/>
    <parent link="l_hand_ring_2"/>
    <child link="l_hand_ring_skin_2"/>
  </joint>
  <link name="l_hand_ring_skin_3"/>
  <joint name="l_hand_ring_skin_3_fixed_joint" type="fixed">
    <origin xyz="0.003300000000000008 -0.004081940988398397 -0.037766684597957956" rpy="3.141592653589791 1.5049109712528765 1.5707963267948968"/>
    <parent link="l_hand_ring_2"/>
    <child link="l_hand_ring_skin_3"/>
  </joint>
  <link name="l_hand_ring_skin_4"/>
  <joint name="l_hand_ring_skin_4_fixed_joint" type="fixed">
    <origin xyz="0.005929525942276373 -0.0011923206886612359 -0.03799999999999992" rpy="3.141592653589792 1.299444222971361 2.7771555423255903"/>
    <parent link="l_hand_ring_2"/>
    <child link="l_hand_ring_skin_4"/>
  </joint>
  <link name="l_hand_ring_skin_5"/>
  <joint name="l_hand_ring_skin_5_fixed_joint" type="fixed">
    <origin xyz="6.938893903907228e-18 -0.00348409216335116 -0.03982136611863335" rpy="3.1415926535897927 1.088751329798359 1.5707963267948968"/>
    <parent link="l_hand_ring_2"/>
    <child link="l_hand_ring_skin_5"/>
  </joint>
  <link name="l_hand_ring_skin_6"/>
  <joint name="l_hand_ring_skin_6_fixed_joint" type="fixed">
    <origin xyz="0.003299999999999994 -0.0018288017188733685 -0.041769634404151934" rpy="3.1415926535897927 0.7788155893137829 2.5320677565811995"/>
    <parent link="l_hand_ring_2"/>
    <child link="l_hand_ring_skin_6"/>
  </joint>
  <link name="l_hand_ring_skin_7"/>
  <joint name="l_hand_ring_skin_7_fixed_joint" type="fixed">
    <origin xyz="1.9081958235744878e-17 -2.9018466437888413e-4 -0.04325964091188089" rpy="3.141592653589793 0.6209480183022733 1.5712124826321159"/>
    <parent link="l_hand_ring_2"/>
    <child link="l_hand_ring_skin_7"/>
  </joint>
  <link name="l_hand_ring_skin_8"/>
  <joint name="l_hand_ring_skin_8_fixed_joint" type="fixed">
    <origin xyz="-0.0032999999999999852 -0.0018288017188733685 -0.041769634404151934" rpy="-3.141592653589793 0.7788155893137823 0.6095248970085929"/>
    <parent link="l_hand_ring_2"/>
    <child link="l_hand_ring_skin_8"/>
  </joint>
  <link name="l_hand_ring_skin_9"/>
  <joint name="l_hand_ring_skin_9_fixed_joint" type="fixed">
    <origin xyz="-0.005929525942276356 -0.0011923206886611804 -0.03799999999999992" rpy="-3.1415926535897927 1.2994442229713594 0.3644371112642026"/>
    <parent link="l_hand_ring_2"/>
    <child link="l_hand_ring_skin_9"/>
  </joint>
  <link name="l_sole"/>
  <joint name="l_sole_fixed_joint" type="fixed">
    <origin xyz="0.059629999999999996 -1.3877787807814457e-17 -0.024299999999999877" rpy="0 1.5094274020956558e-31 0"/>
    <parent link="l_foot_rear"/>
    <child link="l_sole"/>
  </joint>
  <link name="l_hand_thumb_skin_0"/>
  <joint name="l_hand_thumb_skin_0_fixed_joint" type="fixed">
    <origin xyz="-2.2125551391027898e-11 -0.002433587294553452 -0.026405457778888853" rpy="-1.1609482034540493e-11 -1.2225055986691151 1.5707963268683354"/>
    <parent link="l_hand_thumb_3"/>
    <child link="l_hand_thumb_skin_0"/>
  </joint>
  <link name="l_hand_thumb_skin_1"/>
  <joint name="l_hand_thumb_skin_1_fixed_joint" type="fixed">
    <origin xyz="0.003299999977533996 -0.0031308168507229173 -0.028280418005880898" rpy="3.141592653571252 -0.6108652381980162 -1.570796327023918"/>
    <parent link="l_hand_thumb_3"/>
    <child link="l_hand_thumb_skin_1"/>
  </joint>
  <link name="l_hand_thumb_skin_10"/>
  <joint name="l_hand_thumb_skin_10_fixed_joint" type="fixed">
    <origin xyz="-0.003300000023277627 -0.004081610224701271 -0.03276668459736391" rpy="3.1415926535743104 -1.5049109712528579 -1.5707963267955443"/>
    <parent link="l_hand_thumb_3"/>
    <child link="l_hand_thumb_skin_10"/>
  </joint>
  <link name="l_hand_thumb_skin_11"/>
  <joint name="l_hand_thumb_skin_11_fixed_joint" type="fixed">
    <origin xyz="-0.003300000022465971 -0.0031308168506947176 -0.02828041800469284" rpy="-1.1627790682026587e-11 -1.220094902461357 1.5707963268688572"/>
    <parent link="l_hand_thumb_3"/>
    <child link="l_hand_thumb_skin_11"/>
  </joint>
  <link name="l_hand_thumb_skin_2"/>
  <joint name="l_hand_thumb_skin_2_fixed_joint" type="fixed">
    <origin xyz="-2.2812751687695254e-11 -0.0037579108898968816 -0.030192049408458887" rpy="-1.0975528579504133e-11 -1.305681332851502 1.5707963268508718"/>
    <parent link="l_hand_thumb_3"/>
    <child link="l_hand_thumb_skin_2"/>
  </joint>
  <link name="l_hand_thumb_skin_3"/>
  <joint name="l_hand_thumb_skin_3_fixed_joint" type="fixed">
    <origin xyz="0.0032999999767223676 -0.004081610224729415 -0.03276668459855195" rpy="3.141592653571252 -0.6108652381980161 -1.570796327023918"/>
    <parent link="l_hand_thumb_3"/>
    <child link="l_hand_thumb_skin_3"/>
  </joint>
  <link name="l_hand_thumb_skin_4"/>
  <joint name="l_hand_thumb_skin_4_fixed_joint" type="fixed">
    <origin xyz="0.005929525918969086 -0.0011919899250033839 -0.03300000000106727" rpy="1.570796323948815 -1.507507555817487 -1.5707963239587988"/>
    <parent link="l_hand_thumb_3"/>
    <child link="l_hand_thumb_skin_4"/>
  </joint>
  <link name="l_hand_thumb_skin_5"/>
  <joint name="l_hand_thumb_skin_5_fixed_joint" type="fixed">
    <origin xyz="-2.364491935580304e-11 -0.0034837613996680783 -0.034821366118633304" rpy="3.141592653576766 -1.0887513297983578 -1.57079632687865"/>
    <parent link="l_hand_thumb_3"/>
    <child link="l_hand_thumb_skin_5"/>
  </joint>
  <link name="l_hand_thumb_skin_6"/>
  <joint name="l_hand_thumb_skin_6_fixed_joint" type="fixed">
    <origin xyz="0.0032999999760114918 -0.0018284709552043588 -0.03676963440474591" rpy="-4.620360040236946e-16 -0.7657426237199224 -1.5707963267949006"/>
    <parent link="l_hand_thumb_3"/>
    <child link="l_hand_thumb_skin_6"/>
  </joint>
  <link name="l_hand_thumb_skin_7"/>
  <joint name="l_hand_thumb_skin_7_fixed_joint" type="fixed">
    <origin xyz="-2.4250157437677444e-11 -2.898539006957468e-4 -0.038259640911880916" rpy="-3.1415628662062685 -0.620948017682013 -1.5704313693095489"/>
    <parent link="l_hand_thumb_3"/>
    <child link="l_hand_thumb_skin_7"/>
  </joint>
  <link name="l_hand_thumb_skin_8"/>
  <joint name="l_hand_thumb_skin_8_fixed_joint" type="fixed">
    <origin xyz="-0.0033000000239885308 -0.0018284709551761869 -0.036769634403557905" rpy="3.071469777395219 -0.7763161157147594 -2.432155397543958"/>
    <parent link="l_hand_thumb_3"/>
    <child link="l_hand_thumb_skin_8"/>
  </joint>
  <link name="l_hand_thumb_skin_9"/>
  <joint name="l_hand_thumb_skin_9_fixed_joint" type="fixed">
    <origin xyz="-0.005929525965583604 -0.0011919899249527854 -0.032999999998932564" rpy="2.9258803345668243 -1.2928372761145006 -2.5531132071417293"/>
    <parent link="l_hand_thumb_3"/>
    <child link="l_hand_thumb_skin_9"/>
  </joint>
  <link name="r_hand_index_skin_0"/>
  <joint name="r_hand_index_skin_0_fixed_joint" type="fixed">
    <origin xyz="3.469446951953614e-17 -0.002433928982192385 -0.03140545693228214" rpy="2.8463754567347765e-16 1.2225052508328904 -1.5707963267948963"/>
    <parent link="r_hand_index_3"/>
    <child link="r_hand_index_skin_0"/>
  </joint>
  <link name="r_hand_index_skin_1"/>
  <joint name="r_hand_index_skin_1_fixed_joint" type="fixed">
    <origin xyz="0.0032999999999999974 -0.0031311591905268388 -0.033280416916158295" rpy="2.4236659217065896e-16 1.2200945546251307 -1.5707963267948963"/>
    <parent link="r_hand_index_3"/>
    <child link="r_hand_index_skin_1"/>
  </joint>
  <link name="r_hand_index_skin_10"/>
  <joint name="r_hand_index_skin_10_fixed_joint" type="fixed">
    <origin xyz="-0.0032999999999999696 -0.0040819541250192715 -0.03776668317810877" rpy="3.1415926535897922 1.5049113190891115 1.5707963267948952"/>
    <parent link="r_hand_index_3"/>
    <child link="r_hand_index_skin_10"/>
  </joint>
  <link name="r_hand_index_skin_11"/>
  <joint name="r_hand_index_skin_11_fixed_joint" type="fixed">
    <origin xyz="-0.0033000000000000043 -0.0031311591905267833 -0.033280416916158295" rpy="2.4236659217065896e-16 1.2200945546251307 -1.5707963267948963"/>
    <parent link="r_hand_index_3"/>
    <child link="r_hand_index_skin_11"/>
  </joint>
  <link name="r_hand_index_skin_2"/>
  <joint name="r_hand_index_skin_2_fixed_joint" type="fixed">
    <origin xyz="6.938893903907228e-18 -0.003758253894649538 -0.03519204810120419" rpy="3.177869701880381e-16 1.3056809850152777 -1.5707963267948961"/>
    <parent link="r_hand_index_3"/>
    <child link="r_hand_index_skin_2"/>
  </joint>
  <link name="r_hand_index_skin_3"/>
  <joint name="r_hand_index_skin_3_fixed_joint" type="fixed">
    <origin xyz="0.0033000000000000043 -0.004081954125019299 -0.03776668317810877" rpy="3.1415926535897922 1.5049113190891115 1.5707963267948952"/>
    <parent link="r_hand_index_3"/>
    <child link="r_hand_index_skin_3"/>
  </joint>
  <link name="r_hand_index_skin_4"/>
  <joint name="r_hand_index_skin_4_fixed_joint" type="fixed">
    <origin xyz="0.005929525942276359 -0.0011923339064377758 -0.03799999958526529" rpy="-3.1415914410880514 1.299444346948154 2.777156710461142"/>
    <parent link="r_hand_index_3"/>
    <child link="r_hand_index_skin_4"/>
  </joint>
  <link name="r_hand_index_skin_5"/>
  <joint name="r_hand_index_skin_5_fixed_joint" type="fixed">
    <origin xyz="6.938893903907228e-18 -0.003484106014664784 -0.03982136490673749" rpy="3.141592653589793 1.0887516776345891 1.5707963267948963"/>
    <parent link="r_hand_index_3"/>
    <child link="r_hand_index_skin_5"/>
  </joint>
  <link name="r_hand_index_skin_6"/>
  <joint name="r_hand_index_skin_6_fixed_joint" type="fixed">
    <origin xyz="0.0033000000000000043 -0.0018288162478654058 -0.04176963376802595" rpy="-3.141592252887904 0.7788157884423246 2.5320680380490246"/>
    <parent link="r_hand_index_3"/>
    <child link="r_hand_index_skin_6"/>
  </joint>
  <link name="r_hand_index_skin_7"/>
  <joint name="r_hand_index_skin_7_fixed_joint" type="fixed">
    <origin xyz="-2.7755575615628914e-17 -2.901997116492028e-4 -0.04325964081094158" rpy="-3.1415926534118155 0.6209483661384732 1.5712124827356644"/>
    <parent link="r_hand_index_3"/>
    <child link="r_hand_index_skin_7"/>
  </joint>
  <link name="r_hand_index_skin_8"/>
  <joint name="r_hand_index_skin_8_fixed_joint" type="fixed">
    <origin xyz="-0.0032999999999999835 -0.0018288162478654058 -0.04176963376802595" rpy="3.141592252887904 0.7788157884423246 0.6095246155407682"/>
    <parent link="r_hand_index_3"/>
    <child link="r_hand_index_skin_8"/>
  </joint>
  <link name="r_hand_index_skin_9"/>
  <joint name="r_hand_index_skin_9_fixed_joint" type="fixed">
    <origin xyz="-0.005929525942276352 -0.0011923339064378036 -0.03799999958526534" rpy="3.1415914410880514 1.2994443469481536 0.36443594312865046"/>
    <parent link="r_hand_index_3"/>
    <child link="r_hand_index_skin_9"/>
  </joint>
  <link name="r_hand_middle_skin_0"/>
  <joint name="r_hand_middle_skin_0_fixed_joint" type="fixed">
    <origin xyz="-2.0816681711721685e-17 -0.002433918058236506 -0.03140545777888887" rpy="-2.4397527287236403e-16 1.2225055986691193 -1.570796326794897"/>
    <parent link="r_hand_middle_2"/>
    <child link="r_hand_middle_skin_0"/>
  </joint>
  <link name="r_hand_middle_skin_1"/>
  <joint name="r_hand_middle_skin_1_fixed_joint" type="fixed">
    <origin xyz="0.003299999999999987 -0.0031311476143918993 -0.033280418005286916" rpy="-2.4236682262019717e-16 1.2200949024613599 -1.5707963267948972"/>
    <parent link="r_hand_middle_2"/>
    <child link="r_hand_middle_skin_1"/>
  </joint>
  <link name="r_hand_middle_skin_10"/>
  <joint name="r_hand_middle_skin_10_fixed_joint" type="fixed">
    <origin xyz="-0.0033000000000000113 -0.004081940988398369 -0.03776668459795801" rpy="-3.141592653589792 1.5049109712528799 1.5707963267948983"/>
    <parent link="r_hand_middle_2"/>
    <child link="r_hand_middle_skin_10"/>
  </joint>
  <link name="r_hand_middle_skin_11"/>
  <joint name="r_hand_middle_skin_11_fixed_joint" type="fixed">
    <origin xyz="-0.003300000000000025 -0.0031311476143918715 -0.03328041800528686" rpy="-2.4236682262019727e-16 1.2200949024613594 -1.5707963267948972"/>
    <parent link="r_hand_middle_2"/>
    <child link="r_hand_middle_skin_11"/>
  </joint>
  <link name="r_hand_middle_skin_2"/>
  <joint name="r_hand_middle_skin_2_fixed_joint" type="fixed">
    <origin xyz="-4.5102810375396984e-17 -0.003758241653579991 -0.035192049408458936" rpy="-3.177873773164535e-16 1.3056813328515076 -1.5707963267948972"/>
    <parent link="r_hand_middle_2"/>
    <child link="r_hand_middle_skin_2"/>
  </joint>
  <link name="r_hand_middle_skin_3"/>
  <joint name="r_hand_middle_skin_3_fixed_joint" type="fixed">
    <origin xyz="0.003299999999999942 -0.004081940988398425 -0.03776668459795801" rpy="-3.141592653589792 1.5049109712528799 1.5707963267948986"/>
    <parent link="r_hand_middle_2"/>
    <child link="r_hand_middle_skin_3"/>
  </joint>
  <link name="r_hand_middle_skin_4"/>
  <joint name="r_hand_middle_skin_4_fixed_joint" type="fixed">
    <origin xyz="0.005929525942276321 -0.001192320688661208 -0.03799999999999998" rpy="-3.141592653589792 1.2994442229713614 2.7771555423255876"/>
    <parent link="r_hand_middle_2"/>
    <child link="r_hand_middle_skin_4"/>
  </joint>
  <link name="r_hand_middle_skin_5"/>
  <joint name="r_hand_middle_skin_5_fixed_joint" type="fixed">
    <origin xyz="-2.42861286636753e-17 -0.0034840921633511046 -0.03982136611863335" rpy="-3.141592653589793 1.08875132979836 1.5707963267948968"/>
    <parent link="r_hand_middle_2"/>
    <child link="r_hand_middle_skin_5"/>
  </joint>
  <link name="r_hand_middle_skin_6"/>
  <joint name="r_hand_middle_skin_6_fixed_joint" type="fixed">
    <origin xyz="0.0032999999999999766 -0.0018288017188733963 -0.041769634404151934" rpy="-3.1415926535897927 0.778815589313783 2.532067756581199"/>
    <parent link="r_hand_middle_2"/>
    <child link="r_hand_middle_skin_6"/>
  </joint>
  <link name="r_hand_middle_skin_7"/>
  <joint name="r_hand_middle_skin_7_fixed_joint" type="fixed">
    <origin xyz="-5.204170427930421e-17 -2.9018466437888413e-4 -0.04325964091188089" rpy="-3.141592653589793 0.6209480183022739 1.5712124826321157"/>
    <parent link="r_hand_middle_2"/>
    <child link="r_hand_middle_skin_7"/>
  </joint>
  <link name="r_hand_middle_skin_8"/>
  <joint name="r_hand_middle_skin_8_fixed_joint" type="fixed">
    <origin xyz="-0.0033000000000000217 -0.0018288017188733408 -0.04176963440415199" rpy="3.1415926535897927 0.778815589313783 0.6095248970085936"/>
    <parent link="r_hand_middle_2"/>
    <child link="r_hand_middle_skin_8"/>
  </joint>
  <link name="r_hand_middle_skin_9"/>
  <joint name="r_hand_middle_skin_9_fixed_joint" type="fixed">
    <origin xyz="-0.00592952594227638 -0.0011923206886611526 -0.03799999999999998" rpy="3.141592653589792 1.299444222971361 0.3644371112642049"/>
    <parent link="r_hand_middle_2"/>
    <child link="r_hand_middle_skin_9"/>
  </joint>
  <link name="r_hand_pinkie_skin_0"/>
  <joint name="r_hand_pinkie_skin_0_fixed_joint" type="fixed">
    <origin xyz="0 -0.0024339180582408637 -0.03140545777888881" rpy="2.6430654561173425e-16 1.2225055986691284 -1.5707963267948966"/>
    <parent link="r_hand_pinkie_2"/>
    <child link="r_hand_pinkie_skin_0"/>
  </joint>
  <link name="r_hand_pinkie_skin_1"/>
  <joint name="r_hand_pinkie_skin_1_fixed_joint" type="fixed">
    <origin xyz="0.0033000000000000113 -0.0031311476143962846 -0.03328041800528675" rpy="1.8177511696515236e-16 1.2200949024613699 -1.5707963267948966"/>
    <parent link="r_hand_pinkie_2"/>
    <child link="r_hand_pinkie_skin_1"/>
  </joint>
  <link name="r_hand_pinkie_skin_10"/>
  <joint name="r_hand_pinkie_skin_10_fixed_joint" type="fixed">
    <origin xyz="-0.0032999999999999974 -0.004081940988402782 -0.037766684597957845" rpy="3.1415926535897922 1.5049109712528714 1.5707963267948974"/>
    <parent link="r_hand_pinkie_2"/>
    <child link="r_hand_pinkie_skin_10"/>
  </joint>
  <link name="r_hand_pinkie_skin_11"/>
  <joint name="r_hand_pinkie_skin_11_fixed_joint" type="fixed">
    <origin xyz="-0.0032999999999999904 -0.0031311476143963124 -0.033280418005286805" rpy="1.8177511696515236e-16 1.2200949024613699 -1.5707963267948966"/>
    <parent link="r_hand_pinkie_2"/>
    <child link="r_hand_pinkie_skin_11"/>
  </joint>
  <link name="r_hand_pinkie_skin_2"/>
  <joint name="r_hand_pinkie_skin_2_fixed_joint" type="fixed">
    <origin xyz="0 -0.003758241653584321 -0.03519204940845877" rpy="3.17787377316464e-16 1.3056813328515169 -1.5707963267948966"/>
    <parent link="r_hand_pinkie_2"/>
    <child link="r_hand_pinkie_skin_2"/>
  </joint>
  <link name="r_hand_pinkie_skin_3"/>
  <joint name="r_hand_pinkie_skin_3_fixed_joint" type="fixed">
    <origin xyz="0.003300000000000018 -0.004081940988402699 -0.0377666845979579" rpy="3.1415926535897922 1.5049109712528714 1.5707963267948977"/>
    <parent link="r_hand_pinkie_2"/>
    <child link="r_hand_pinkie_skin_3"/>
  </joint>
  <link name="r_hand_pinkie_skin_4"/>
  <joint name="r_hand_pinkie_skin_4_fixed_joint" type="fixed">
    <origin xyz="0.005929525942276366 -0.0011923206886655102 -0.03799999999999981" rpy="3.1415926535897625 1.2994442229713585 2.777155542325558"/>
    <parent link="r_hand_pinkie_2"/>
    <child link="r_hand_pinkie_skin_4"/>
  </joint>
  <link name="r_hand_pinkie_skin_5"/>
  <joint name="r_hand_pinkie_skin_5_fixed_joint" type="fixed">
    <origin xyz="1.3877787807814457e-17 -0.00348409216335549 -0.03982136611863324" rpy="3.141592653589793 1.0887513297983513 1.5707963267948968"/>
    <parent link="r_hand_pinkie_2"/>
    <child link="r_hand_pinkie_skin_5"/>
  </joint>
  <link name="r_hand_pinkie_skin_6"/>
  <joint name="r_hand_pinkie_skin_6_fixed_joint" type="fixed">
    <origin xyz="0.0033000000000000043 -0.0018288017188776429 -0.04176963440415177" rpy="3.1415926535897833 0.778815589313778 2.532067756581192"/>
    <parent link="r_hand_pinkie_2"/>
    <child link="r_hand_pinkie_skin_6"/>
  </joint>
  <link name="r_hand_pinkie_skin_7"/>
  <joint name="r_hand_pinkie_skin_7_fixed_joint" type="fixed">
    <origin xyz="-6.938893903907228e-18 -2.901846643830752e-4 -0.04325964091188084" rpy="3.141592653589793 0.620948018302265 1.5712124826321159"/>
    <parent link="r_hand_pinkie_2"/>
    <child link="r_hand_pinkie_skin_7"/>
  </joint>
  <link name="r_hand_pinkie_skin_8"/>
  <joint name="r_hand_pinkie_skin_8_fixed_joint" type="fixed">
    <origin xyz="-0.0032999999999999904 -0.0018288017188776429 -0.04176963440415177" rpy="-3.1415926535897833 0.7788155893137778 0.6095248970086008"/>
    <parent link="r_hand_pinkie_2"/>
    <child link="r_hand_pinkie_skin_8"/>
  </joint>
  <link name="r_hand_pinkie_skin_9"/>
  <joint name="r_hand_pinkie_skin_9_fixed_joint" type="fixed">
    <origin xyz="-0.005929525942276352 -0.0011923206886654825 -0.03799999999999981" rpy="-3.141592653589763 1.299444222971359 0.3644371112642355"/>
    <parent link="r_hand_pinkie_2"/>
    <child link="r_hand_pinkie_skin_9"/>
  </joint>
  <link name="r_hand_ring_skin_0"/>
  <joint name="r_hand_ring_skin_0_fixed_joint" type="fixed">
    <origin xyz="3.469446951953614e-18 -0.0024339182743748355 -0.03140545776213821" rpy="1.4231890647798227e-16 1.222505591786931 -1.5707963267948966"/>
    <parent link="r_hand_ring_2"/>
    <child link="r_hand_ring_skin_0"/>
  </joint>
  <link name="r_hand_ring_skin_1"/>
  <joint name="r_hand_ring_skin_1_fixed_joint" type="fixed">
    <origin xyz="0.0032999999999999974 -0.0031311478434340456 -0.03328041798373782" rpy="1.4138064386867392e-16 1.2200948955791715 -1.5707963267948966"/>
    <parent link="r_hand_ring_2"/>
    <child link="r_hand_ring_skin_1"/>
  </joint>
  <link name="r_hand_ring_skin_10"/>
  <joint name="r_hand_ring_skin_10_fixed_joint" type="fixed">
    <origin xyz="-0.0033000000000000113 -0.004081941248315957 -0.03776668456986537" rpy="3.1415926535897927 1.5049109781350702 1.5707963267948977"/>
    <parent link="r_hand_ring_2"/>
    <child link="r_hand_ring_skin_10"/>
  </joint>
  <link name="r_hand_ring_skin_11"/>
  <joint name="r_hand_ring_skin_11_fixed_joint" type="fixed">
    <origin xyz="-0.0033000000000000026 -0.0031311478434340456 -0.033280417983737876" rpy="1.4138064386867392e-16 1.2200948955791715 -1.5707963267948966"/>
    <parent link="r_hand_ring_2"/>
    <child link="r_hand_ring_skin_11"/>
  </joint>
  <link name="r_hand_ring_skin_2"/>
  <joint name="r_hand_ring_skin_2_fixed_joint" type="fixed">
    <origin xyz="1.214306433183765e-17 -0.0037582418957782804 -0.035192049382594015" rpy="1.324114038587985e-16 1.305681325969319 -1.5707963267948966"/>
    <parent link="r_hand_ring_2"/>
    <child link="r_hand_ring_skin_2"/>
  </joint>
  <link name="r_hand_ring_skin_3"/>
  <joint name="r_hand_ring_skin_3_fixed_joint" type="fixed">
    <origin xyz="0.003299999999999987 -0.004081941248315901 -0.03776668456986537" rpy="3.1415926535897927 1.5049109781350702 1.5707963267948974"/>
    <parent link="r_hand_ring_2"/>
    <child link="r_hand_ring_skin_3"/>
  </joint>
  <link name="r_hand_ring_skin_4"/>
  <joint name="r_hand_ring_skin_4_fixed_joint" type="fixed">
    <origin xyz="0.005929525942276352 -0.0011923209501843446 -0.03799999999179421" rpy="-3.1415926295995895 1.2994442254243346 2.777155565437974"/>
    <parent link="r_hand_ring_2"/>
    <child link="r_hand_ring_skin_4"/>
  </joint>
  <link name="r_hand_ring_skin_5"/>
  <joint name="r_hand_ring_skin_5_fixed_joint" type="fixed">
    <origin xyz="-1.214306433183765e-17 -0.0034840924374092974 -0.03982136609465514" rpy="3.141592653589793 1.0887513366805477 1.570796326794897"/>
    <parent link="r_hand_ring_2"/>
    <child link="r_hand_ring_skin_5"/>
  </joint>
  <link name="r_hand_ring_skin_6"/>
  <joint name="r_hand_ring_skin_6_fixed_joint" type="fixed">
    <origin xyz="0.0032999999999999974 -0.0018288020063398913 -0.04176963439156578" rpy="-3.141592645661621 0.7788155932536848 2.53206776215024"/>
    <parent link="r_hand_ring_2"/>
    <child link="r_hand_ring_skin_6"/>
  </joint>
  <link name="r_hand_ring_skin_7"/>
  <joint name="r_hand_ring_skin_7_fixed_joint" type="fixed">
    <origin xyz="3.469446951953614e-18 -2.901849620998431e-4 -0.04325964090988388" rpy="-3.141592653586272 0.6209480251844615 1.5712124826341647"/>
    <parent link="r_hand_ring_2"/>
    <child link="r_hand_ring_skin_7"/>
  </joint>
  <link name="r_hand_ring_skin_8"/>
  <joint name="r_hand_ring_skin_8_fixed_joint" type="fixed">
    <origin xyz="-0.0032999999999999956 -0.0018288020063398913 -0.04176963439156589" rpy="3.141592645661621 0.7788155932536843 0.6095248914395535"/>
    <parent link="r_hand_ring_2"/>
    <child link="r_hand_ring_skin_8"/>
  </joint>
  <link name="r_hand_ring_skin_9"/>
  <joint name="r_hand_ring_skin_9_fixed_joint" type="fixed">
    <origin xyz="-0.0059295259422763695 -0.0011923209501843723 -0.03799999999179421" rpy="3.141592629599589 1.2994442254243332 0.36443708815181947"/>
    <parent link="r_hand_ring_2"/>
    <child link="r_hand_ring_skin_9"/>
  </joint>
  <link name="r_sole"/>
  <joint name="r_sole_fixed_joint" type="fixed">
    <origin xyz="0.05963 -1.3877787807814457e-17 -0.02429999999999999" rpy="0 3.1371750050201436e-30 0"/>
    <parent link="r_foot_rear"/>
    <child link="r_sole"/>
  </joint>
  <link name="r_hand_thumb_skin_0"/>
  <joint name="r_hand_thumb_skin_0_fixed_joint" type="fixed">
    <origin xyz="-5.551115123125783e-17 -0.002433587294553591 -0.026405457778889127" rpy="2.765053092553465e-15 -1.22250559866914 1.5707963267948857"/>
    <parent link="r_hand_thumb_3"/>
    <child link="r_hand_thumb_skin_0"/>
  </joint>
  <link name="r_hand_thumb_skin_1"/>
  <joint name="r_hand_thumb_skin_1_fixed_joint" type="fixed">
    <origin xyz="0.0032999999999999696 -0.0031308168507089285 -0.02828041800528714" rpy="3.1415926535897922 -0.6108652381980179 -1.5707963267949114"/>
    <parent link="r_hand_thumb_3"/>
    <child link="r_hand_thumb_skin_1"/>
  </joint>
  <link name="r_hand_thumb_skin_10"/>
  <joint name="r_hand_thumb_skin_10_fixed_joint" type="fixed">
    <origin xyz="-0.003300000000000053 -0.004081610224715565 -0.032766684597958284" rpy="3.141592653589779 -1.5049109712529725 -1.570796326794926"/>
    <parent link="r_hand_thumb_3"/>
    <child link="r_hand_thumb_skin_10"/>
  </joint>
  <link name="r_hand_thumb_skin_11"/>
  <joint name="r_hand_thumb_skin_11_fixed_joint" type="fixed">
    <origin xyz="-0.003300000000000053 -0.0031308168507090395 -0.02828041800528719" rpy="2.908401871442372e-15 -1.2200949024613812 1.5707963267948855"/>
    <parent link="r_hand_thumb_3"/>
    <child link="r_hand_thumb_skin_11"/>
  </joint>
  <link name="r_hand_thumb_skin_2"/>
  <joint name="r_hand_thumb_skin_2_fixed_joint" type="fixed">
    <origin xyz="0 -0.0037579108898970204 -0.03019204940845916" rpy="3.389732024708853e-15 -1.3056813328515338 1.5707963267948863"/>
    <parent link="r_hand_thumb_3"/>
    <child link="r_hand_thumb_skin_2"/>
  </joint>
  <link name="r_hand_thumb_skin_3"/>
  <joint name="r_hand_thumb_skin_3_fixed_joint" type="fixed">
    <origin xyz="0.0032999999999999974 -0.004081610224715454 -0.032766684597958305" rpy="3.1415926535897922 -0.6108652381980177 -1.5707963267949112"/>
    <parent link="r_hand_thumb_3"/>
    <child link="r_hand_thumb_skin_3"/>
  </joint>
  <link name="r_hand_thumb_skin_4"/>
  <joint name="r_hand_thumb_skin_4_fixed_joint" type="fixed">
    <origin xyz="0.005929525942276387 -0.0011919899249781263 -0.03300000000000026" rpy="1.5707963267948817 -1.507507552842365 -1.5707963267949265"/>
    <parent link="r_hand_thumb_3"/>
    <child link="r_hand_thumb_skin_4"/>
  </joint>
  <link name="r_hand_thumb_skin_5"/>
  <joint name="r_hand_thumb_skin_5_fixed_joint" type="fixed">
    <origin xyz="-5.551115123125783e-17 -0.003483761399668245 -0.034821366118633644" rpy="3.1415926535897913 -1.088751329798369 -1.5707963267949128"/>
    <parent link="r_hand_thumb_3"/>
    <child link="r_hand_thumb_skin_5"/>
  </joint>
  <link name="r_hand_thumb_skin_6"/>
  <joint name="r_hand_thumb_skin_6_fixed_joint" type="fixed">
    <origin xyz="0.0032999999999999974 -0.0018284709551903977 -0.036769634404152235" rpy="-1.3861080081060772e-15 -0.7657426207446857 -1.5707963267949117"/>
    <parent link="r_hand_thumb_3"/>
    <child link="r_hand_thumb_skin_6"/>
  </joint>
  <link name="r_hand_thumb_skin_7"/>
  <joint name="r_hand_thumb_skin_7_fixed_joint" type="fixed">
    <origin xyz="-2.7755575615628914e-17 -2.898539006959133e-4 -0.038259640911881256" rpy="-3.1415628661866624 -0.6209480176820894 -1.570431369087355"/>
    <parent link="r_hand_thumb_3"/>
    <child link="r_hand_thumb_skin_7"/>
  </joint>
  <link name="r_hand_thumb_skin_8"/>
  <joint name="r_hand_thumb_skin_8_fixed_joint" type="fixed">
    <origin xyz="-0.0032999999999999974 -0.0018284709551905087 -0.03676963440415227" rpy="3.071469774250236 -0.7763161153414891 -2.432155392931655"/>
    <parent link="r_hand_thumb_3"/>
    <child link="r_hand_thumb_skin_8"/>
  </joint>
  <link name="r_hand_thumb_skin_9"/>
  <joint name="r_hand_thumb_skin_9_fixed_joint" type="fixed">
    <origin xyz="-0.005929525942276387 -0.0011919899249783206 -0.03300000000000024" rpy="2.9258803249384773 -1.2928372753400146 -2.553113197096302"/>
    <parent link="r_hand_thumb_3"/>
    <child link="r_hand_thumb_skin_9"/>
  </joint>
  <gazebo reference="l_arm_ft_sensor">
    <sensor name="l_arm_ft" type="force_torque">
      <always_on>1</always_on>
      <update_rate>100</update_rate>
      <force_torque>
        <frame>sensor</frame>
        <measure_direction>child_to_parent</measure_direction>
      </force_torque>
      <pose>-3.46945e-18 0 0 3.14159 1.94289e-16 -1.5708 </pose>
      <plugin name="left_arm_ft_plugin" filename="libgazebo_yarp_forcetorque.so">
        <yarpConfigurationFile>model://ergoCub/conf/FT/gazebo_ergocub_left_arm_ft.ini</yarpConfigurationFile>
      </plugin>
    </sensor>
  </gazebo>
  <sensor name="l_arm_ft" type="force_torque">
    <parent joint="l_arm_ft_sensor"/>
    <force_torque>
      <frame>sensor</frame>
      <measure_direction>child_to_parent</measure_direction>
    </force_torque>
    <origin rpy="3.14159 1.94289e-16 -1.5708 " xyz="-3.46945e-18 0 0"/>
  </sensor>
  <gazebo reference="l_foot_front_ft_sensor">
    <sensor name="l_foot_front_ft" type="force_torque">
      <always_on>1</always_on>
      <update_rate>100</update_rate>
      <force_torque>
        <frame>sensor</frame>
        <measure_direction>parent_to_child</measure_direction>
      </force_torque>
      <pose>0 0 0 1.25667e-16 2.20112e-17 -2.0944 </pose>
      <plugin name="left_foot_front_ft_plugin" filename="libgazebo_yarp_forcetorque.so">
        <yarpConfigurationFile>model://ergoCub/conf/FT/gazebo_ergocub_left_foot_front_ft.ini</yarpConfigurationFile>
      </plugin>
    </sensor>
  </gazebo>
  <sensor name="l_foot_front_ft" type="force_torque">
    <parent joint="l_foot_front_ft_sensor"/>
    <force_torque>
      <frame>sensor</frame>
      <measure_direction>parent_to_child</measure_direction>
    </force_torque>
    <origin rpy="1.25667e-16 2.20112e-17 -2.0944 " xyz="0 0 0"/>
  </sensor>
  <gazebo reference="l_foot_rear_ft_sensor">
    <sensor name="l_foot_rear_ft" type="force_torque">
      <always_on>1</always_on>
      <update_rate>100</update_rate>
      <force_torque>
        <frame>sensor</frame>
        <measure_direction>parent_to_child</measure_direction>
      </force_torque>
      <pose>0 0 0 1.25667e-16 2.20112e-17 -2.0944 </pose>
      <plugin name="left_foot_rear_ft_plugin" filename="libgazebo_yarp_forcetorque.so">
        <yarpConfigurationFile>model://ergoCub/conf/FT/gazebo_ergocub_left_foot_rear_ft.ini</yarpConfigurationFile>
      </plugin>
    </sensor>
  </gazebo>
  <sensor name="l_foot_rear_ft" type="force_torque">
    <parent joint="l_foot_rear_ft_sensor"/>
    <force_torque>
      <frame>sensor</frame>
      <measure_direction>parent_to_child</measure_direction>
    </force_torque>
    <origin rpy="1.25667e-16 2.20112e-17 -2.0944 " xyz="0 0 0"/>
  </sensor>
  <gazebo reference="l_leg_ft_sensor">
    <sensor name="l_leg_ft" type="force_torque">
      <always_on>1</always_on>
      <update_rate>100</update_rate>
      <force_torque>
        <frame>sensor</frame>
        <measure_direction>child_to_parent</measure_direction>
      </force_torque>
      <pose>5.20417e-18 0 0 3.14159 -2.02132e-15 2.61799 </pose>
      <plugin name="left_leg_ft_plugin" filename="libgazebo_yarp_forcetorque.so">
        <yarpConfigurationFile>model://ergoCub/conf/FT/gazebo_ergocub_left_leg_ft.ini</yarpConfigurationFile>
      </plugin>
    </sensor>
  </gazebo>
  <sensor name="l_leg_ft" type="force_torque">
    <parent joint="l_leg_ft_sensor"/>
    <force_torque>
      <frame>sensor</frame>
      <measure_direction>child_to_parent</measure_direction>
    </force_torque>
    <origin rpy="3.14159 -2.02132e-15 2.61799 " xyz="5.20417e-18 0 0"/>
  </sensor>
  <gazebo reference="r_arm_ft_sensor">
    <sensor name="r_arm_ft" type="force_torque">
      <always_on>1</always_on>
      <update_rate>100</update_rate>
      <force_torque>
        <frame>sensor</frame>
        <measure_direction>child_to_parent</measure_direction>
      </force_torque>
      <pose>0 0 0 -3.14159 -2.77556e-17 1.5708 </pose>
      <plugin name="right_arm_ft_plugin" filename="libgazebo_yarp_forcetorque.so">
        <yarpConfigurationFile>model://ergoCub/conf/FT/gazebo_ergocub_right_arm_ft.ini</yarpConfigurationFile>
      </plugin>
    </sensor>
  </gazebo>
  <sensor name="r_arm_ft" type="force_torque">
    <parent joint="r_arm_ft_sensor"/>
    <force_torque>
      <frame>sensor</frame>
      <measure_direction>child_to_parent</measure_direction>
    </force_torque>
    <origin rpy="-3.14159 -2.77556e-17 1.5708 " xyz="0 0 0"/>
  </sensor>
  <gazebo reference="r_foot_front_ft_sensor">
    <sensor name="r_foot_front_ft" type="force_torque">
      <always_on>1</always_on>
      <update_rate>100</update_rate>
      <force_torque>
        <frame>sensor</frame>
        <measure_direction>parent_to_child</measure_direction>
      </force_torque>
      <pose>0 1.38778e-17 1.11022e-16 -1.0903e-16 -1.44222e-16 -2.0944 </pose>
      <plugin name="right_foot_front_ft_plugin" filename="libgazebo_yarp_forcetorque.so">
        <yarpConfigurationFile>model://ergoCub/conf/FT/gazebo_ergocub_right_foot_front_ft.ini</yarpConfigurationFile>
      </plugin>
    </sensor>
  </gazebo>
  <sensor name="r_foot_front_ft" type="force_torque">
    <parent joint="r_foot_front_ft_sensor"/>
    <force_torque>
      <frame>sensor</frame>
      <measure_direction>parent_to_child</measure_direction>
    </force_torque>
    <origin rpy="-1.0903e-16 -1.44222e-16 -2.0944 " xyz="0 1.38778e-17 1.11022e-16"/>
  </sensor>
  <gazebo reference="r_foot_rear_ft_sensor">
    <sensor name="r_foot_rear_ft" type="force_torque">
      <always_on>1</always_on>
      <update_rate>100</update_rate>
      <force_torque>
        <frame>sensor</frame>
        <measure_direction>parent_to_child</measure_direction>
      </force_torque>
      <pose>3.46945e-18 0 0 -1.0903e-16 -1.44222e-16 -2.0944 </pose>
      <plugin name="right_foot_rear_ft_plugin" filename="libgazebo_yarp_forcetorque.so">
        <yarpConfigurationFile>model://ergoCub/conf/FT/gazebo_ergocub_right_foot_rear_ft.ini</yarpConfigurationFile>
      </plugin>
    </sensor>
  </gazebo>
  <sensor name="r_foot_rear_ft" type="force_torque">
    <parent joint="r_foot_rear_ft_sensor"/>
    <force_torque>
      <frame>sensor</frame>
      <measure_direction>parent_to_child</measure_direction>
    </force_torque>
    <origin rpy="-1.0903e-16 -1.44222e-16 -2.0944 " xyz="3.46945e-18 0 0"/>
  </sensor>
  <gazebo reference="r_leg_ft_sensor">
    <sensor name="r_leg_ft" type="force_torque">
      <always_on>1</always_on>
      <update_rate>100</update_rate>
      <force_torque>
        <frame>sensor</frame>
        <measure_direction>child_to_parent</measure_direction>
      </force_torque>
      <pose>1.21431e-17 2.77556e-17 5.55112e-17 3.14159 2.98881e-16 -2.61799 </pose>
      <plugin name="right_leg_ft_plugin" filename="libgazebo_yarp_forcetorque.so">
        <yarpConfigurationFile>model://ergoCub/conf/FT/gazebo_ergocub_right_leg_ft.ini</yarpConfigurationFile>
      </plugin>
    </sensor>
  </gazebo>
  <sensor name="r_leg_ft" type="force_torque">
    <parent joint="r_leg_ft_sensor"/>
    <force_torque>
      <frame>sensor</frame>
      <measure_direction>child_to_parent</measure_direction>
    </force_torque>
    <origin rpy="3.14159 2.98881e-16 -2.61799 " xyz="1.21431e-17 2.77556e-17 5.55112e-17"/>
  </sensor>
  <gazebo reference="head">
    <sensor name="head_imu_0" type="imu">
      <always_on>1</always_on>
      <update_rate>100.000000</update_rate>
      <pose>-0.0043 -0.0055 0.0382345 -3.14159 -9.68848e-15 1.5708 </pose>
      <plugin name="ergocub_yarp_gazebo_plugin_IMU" filename="libgazebo_yarp_imu.so">
        <yarpConfigurationFile>model://ergoCub/conf/gazebo_ergocub_inertial.ini</yarpConfigurationFile>
      </plugin>
    </sensor>
  </gazebo>
  <sensor name="head_imu_0" type="accelerometer">
    <parent link="head"/>
    <origin rpy="-3.14159 -9.68848e-15 1.5708 " xyz="-0.0043 -0.0055 0.0382345"/>
  </sensor>
  <gazebo reference="realsense">
    <sensor name="realsense_head_depth" type="depth">
      <always_on>1</always_on>
      <update_rate>30.000000</update_rate>
      <pose>0.00751548 -0.0115 1.73521e-08 -1.5708 3.75968e-16 -1.5708 </pose>
      <camera name="intel_realsense_depth_camera">
        <pose>0 0 0 -1.57079 -1.57079 3.14159</pose>
        <horizontal_fov>1.2217</horizontal_fov>
        <distortion>
          <k1>0</k1>
          <k2>0</k2>
          <k3>0</k3>
          <p1>0</p1>
          <p2>0</p2>
          <center>319.5 239.5</center>
        </distortion>
        <image>
          <width>640</width>
          <height>480</height>
          <format>R8G8B8</format>
        </image>
        <clip>
          <near>0.175</near>
          <far>3000</far>
        </clip>
      </camera>
      <visualize>false</visualize>
      <plugin name="ergocub_yarp_gazebo_plugin_depthCamera" filename="libgazebo_yarp_depthCamera.so">
        <yarpConfigurationFile>model://ergoCub/conf/sensors/gazebo_ergocub_rgbd_camera.ini</yarpConfigurationFile>
      </plugin>
    </sensor>
  </gazebo>
  <sensor name="realsense_head_depth" type="depth">
    <parent link="realsense"/>
    <origin rpy="-1.5708 3.75968e-16 -1.5708 " xyz="0.00751548 -0.0115 1.73521e-08"/>
  </sensor>
  <gazebo reference="realsense">
    <sensor name="realsense_head_rgb" type="camera">
      <always_on>1</always_on>
      <update_rate>30.000000</update_rate>
      <pose>0.00751548 -0.0115 1.73521e-08 -1.5708 3.75968e-16 -1.5708 </pose>
      <camera name="intel_realsense_rgb_camera">
        <pose>0 0 0 -1.57079 -1.57079 3.14159</pose>
        <horizontal_fov>1.2217</horizontal_fov>
        <distortion>
          <k1>0</k1>
          <k2>0</k2>
          <k3>0</k3>
          <p1>0</p1>
          <p2>0</p2>
          <center>319.5 239.5</center>
        </distortion>
        <image>
          <width>640</width>
          <height>480</height>
          <format>R8G8B8</format>
        </image>
        <clip>
          <near>0.02</near>
          <far>3000</far>
        </clip>
      </camera>
      <visualize>false</visualize>
      <plugin name="ergocub_yarp_gazebo_plugin_camera" filename="libgazebo_yarp_camera.so">
        <yarpConfigurationFile>model://ergoCub/conf/gazebo_ergocub_rgb_camera.ini</yarpConfigurationFile>
      </plugin>
    </sensor>
  </gazebo>
  <sensor name="realsense_head_rgb" type="camera">
    <parent link="realsense"/>
    <origin rpy="-1.5708 3.75968e-16 -1.5708 " xyz="0.00751548 -0.0115 1.73521e-08"/>
  </sensor>
  <gazebo reference="realsense">
    <sensor name="realsense_imu_0" type="imu">
      <always_on>1</always_on>
      <update_rate>100.000000</update_rate>
      <pose>0.00751548 0.01 1.73521e-08 -1.5708 3.75968e-16 -1.5708 </pose>
      <plugin name="ergocub_yarp_gazebo_plugin_IMU" filename="libgazebo_yarp_imu.so">
        <yarpConfigurationFile>model://ergoCub/conf/gazebo_ergocub_realsense_inertial.ini</yarpConfigurationFile>
      </plugin>
    </sensor>
  </gazebo>
  <sensor name="realsense_imu_0" type="accelerometer">
    <parent link="realsense"/>
    <origin rpy="-1.5708 3.75968e-16 -1.5708 " xyz="0.00751548 0.01 1.73521e-08"/>
  </sensor>
  <gazebo reference="head">
    <sensor name="lasersensor_head" type="gpu_lidar">
      <always_on>1</always_on>
      <update_rate>100.000000</update_rate>
      <pose>5e-05 -1.93855e-15 0.134802 9.72195e-15 5.33157e-15 3.16761e-15 </pose>
      <always_on>1</always_on>
      <visualize>true</visualize>
      <update_rate>40</update_rate>
      <ray>
        <scan>
          <horizontal>
            <samples>360</samples>
            <resolution>2</resolution>
            <min_angle>0</min_angle>
            <max_angle>6.28</max_angle>
          </horizontal>
        </scan>
        <range>
          <min>0.04</min>
          <max>5</max>
          <resolution>0.01</resolution>
        </range>
        <noise>
          <type>gaussian</type>
          <mean>0</mean>
          <stddev>0.005</stddev>
        </noise>
      </ray>
      <plugin name="ergocub_yarp_gazebo_plugin_laser" filename="libgazebo_yarp_lasersensor.so">
        <yarpConfigurationFile>model://ergoCub/conf/sensors/gazebo_ergocub_lidar.ini</yarpConfigurationFile>
      </plugin>
    </sensor>
  </gazebo>
  <sensor name="lasersensor_head" type="gpu_lidar">
    <parent link="head"/>
    <origin rpy="9.72195e-15 5.33157e-15 3.16761e-15 " xyz="5e-05 -1.93855e-15 0.134802"/>
  </sensor>
  <gazebo reference="l_foot_front">
    <sensor name="l_foot_front_ft_imu" type="imu">
      <always_on>1</always_on>
      <update_rate>100.000000</update_rate>
      <pose>0 0 0 1.25667e-16 2.20112e-17 -2.0944 </pose>
      <plugin name="ergocub_yarp_gazebo_plugin_IMU" filename="libgazebo_yarp_imu.so">
        <yarpConfigurationFile>model://ergoCub/conf/gazebo_ergocub_l_foot_front_ft_sensor_inertial.ini</yarpConfigurationFile>
      </plugin>
    </sensor>
  </gazebo>
  <sensor name="l_foot_front_ft_imu" type="accelerometer">
    <parent link="l_foot_front"/>
    <origin rpy="1.25667e-16 2.20112e-17 -2.0944 " xyz="0 0 0"/>
  </sensor>
  <gazebo reference="l_foot_rear">
    <sensor name="l_foot_rear_ft_imu" type="imu">
      <always_on>1</always_on>
      <update_rate>100.000000</update_rate>
      <pose>0 0 0 1.25667e-16 2.20112e-17 -2.0944 </pose>
      <plugin name="ergocub_yarp_gazebo_plugin_IMU" filename="libgazebo_yarp_imu.so">
        <yarpConfigurationFile>model://ergoCub/conf/gazebo_ergocub_l_foot_rear_ft_sensor_inertial.ini</yarpConfigurationFile>
      </plugin>
    </sensor>
  </gazebo>
  <sensor name="l_foot_rear_ft_imu" type="accelerometer">
    <parent link="l_foot_rear"/>
    <origin rpy="1.25667e-16 2.20112e-17 -2.0944 " xyz="0 0 0"/>
  </sensor>
  <gazebo reference="r_foot_front">
    <sensor name="r_foot_front_ft_imu" type="imu">
      <always_on>1</always_on>
      <update_rate>100.000000</update_rate>
      <pose>0 1.38778e-17 1.11022e-16 -1.0903e-16 -1.44222e-16 -2.0944 </pose>
      <plugin name="ergocub_yarp_gazebo_plugin_IMU" filename="libgazebo_yarp_imu.so">
        <yarpConfigurationFile>model://ergoCub/conf/gazebo_ergocub_r_foot_front_ft_sensor_inertial.ini</yarpConfigurationFile>
      </plugin>
    </sensor>
  </gazebo>
  <sensor name="r_foot_front_ft_imu" type="accelerometer">
    <parent link="r_foot_front"/>
    <origin rpy="-1.0903e-16 -1.44222e-16 -2.0944 " xyz="0 1.38778e-17 1.11022e-16"/>
  </sensor>
  <gazebo reference="r_foot_rear">
    <sensor name="r_foot_rear_ft_imu" type="imu">
      <always_on>1</always_on>
      <update_rate>100.000000</update_rate>
      <pose>3.46945e-18 0 0 -1.0903e-16 -1.44222e-16 -2.0944 </pose>
      <plugin name="ergocub_yarp_gazebo_plugin_IMU" filename="libgazebo_yarp_imu.so">
        <yarpConfigurationFile>model://ergoCub/conf/gazebo_ergocub_r_foot_rear_ft_sensor_inertial.ini</yarpConfigurationFile>
      </plugin>
    </sensor>
  </gazebo>
  <sensor name="r_foot_rear_ft_imu" type="accelerometer">
    <parent link="r_foot_rear"/>
    <origin rpy="-1.0903e-16 -1.44222e-16 -2.0944 " xyz="3.46945e-18 0 0"/>
  </sensor>
  <gazebo reference="l_shoulder_3">
    <sensor name="l_arm_ft_imu" type="imu">
      <always_on>1</always_on>
      <update_rate>100.000000</update_rate>
      <pose>-3.46945e-18 0 0 3.14159 1.94289e-16 -1.5708 </pose>
      <plugin name="ergocub_yarp_gazebo_plugin_IMU" filename="libgazebo_yarp_imu.so">
        <yarpConfigurationFile>model://ergoCub/conf/gazebo_ergocub_l_arm_ft_sensor_inertial.ini</yarpConfigurationFile>
      </plugin>
    </sensor>
  </gazebo>
  <sensor name="l_arm_ft_imu" type="accelerometer">
    <parent link="l_shoulder_3"/>
    <origin rpy="3.14159 1.94289e-16 -1.5708 " xyz="-3.46945e-18 0 0"/>
  </sensor>
  <gazebo reference="r_shoulder_3">
    <sensor name="r_arm_ft_imu" type="imu">
      <always_on>1</always_on>
      <update_rate>100.000000</update_rate>
      <pose>0 0 0 -3.14159 -2.77556e-17 1.5708 </pose>
      <plugin name="ergocub_yarp_gazebo_plugin_IMU" filename="libgazebo_yarp_imu.so">
        <yarpConfigurationFile>model://ergoCub/conf/gazebo_ergocub_r_arm_ft_sensor_inertial.ini</yarpConfigurationFile>
      </plugin>
    </sensor>
  </gazebo>
  <sensor name="r_arm_ft_imu" type="accelerometer">
    <parent link="r_shoulder_3"/>
    <origin rpy="-3.14159 -2.77556e-17 1.5708 " xyz="0 0 0"/>
  </sensor>
  <gazebo reference="l_hip_3">
    <sensor name="l_leg_ft_imu" type="imu">
      <always_on>1</always_on>
      <update_rate>100.000000</update_rate>
      <pose>5.20417e-18 0 0 3.14159 -2.02132e-15 2.61799 </pose>
      <plugin name="ergocub_yarp_gazebo_plugin_IMU" filename="libgazebo_yarp_imu.so">
        <yarpConfigurationFile>model://ergoCub/conf/gazebo_ergocub_l_leg_ft_sensor_inertial.ini</yarpConfigurationFile>
      </plugin>
    </sensor>
  </gazebo>
  <sensor name="l_leg_ft_imu" type="accelerometer">
    <parent link="l_hip_3"/>
    <origin rpy="3.14159 -2.02132e-15 2.61799 " xyz="5.20417e-18 0 0"/>
  </sensor>
  <gazebo reference="r_hip_3">
    <sensor name="r_leg_ft_imu" type="imu">
      <always_on>1</always_on>
      <update_rate>100.000000</update_rate>
      <pose>1.21431e-17 2.77556e-17 5.55112e-17 3.14159 2.98881e-16 -2.61799 </pose>
      <plugin name="ergocub_yarp_gazebo_plugin_IMU" filename="libgazebo_yarp_imu.so">
        <yarpConfigurationFile>model://ergoCub/conf/gazebo_ergocub_r_leg_ft_sensor_inertial.ini</yarpConfigurationFile>
      </plugin>
    </sensor>
  </gazebo>
  <sensor name="r_leg_ft_imu" type="accelerometer">
    <parent link="r_hip_3"/>
    <origin rpy="3.14159 2.98881e-16 -2.61799 " xyz="1.21431e-17 2.77556e-17 5.55112e-17"/>
  </sensor>
  <link name="waist_imu_0"/>
  <joint name="waist_imu_0_fixed_joint" type="fixed">
    <origin xyz="0.0606 -0.00639428 0.01745" rpy="1.5708 -0.000105208 -1.5708"/>
    <parent link="torso_1"/>
    <child link="waist_imu_0"/>
    <dynamics damping="0.1"/>
  </joint>
  <gazebo>
    <plugin name="ergocub_yarp_gazebo_plugin_IMU" filename="libgazebo_yarp_imu.so">
      <yarpConfigurationFile>model://ergoCub/conf/gazebo_ergocub_waist_inertial.ini</yarpConfigurationFile>
    </plugin>
  </gazebo>
  <gazebo reference="torso_1">
    <sensor name="waist_imu_0" type="imu">
      <always_on>1</always_on>
      <update_rate>100</update_rate>
      <pose>0.0606 -0.00639428 0.01745 1.5708 -0.000105208 -1.5708</pose>
      <plugin name="ergocub_yarp_gazebo_plugin_IMU" filename="libgazebo_yarp_imu.so">
        <yarpConfigurationFile>model://ergoCub/conf/gazebo_ergocub_waist_inertial.ini</yarpConfigurationFile>
      </plugin>
    </sensor>
  </gazebo>
  <gazebo>
    <plugin name="gzyarp::Imu" filename="gz-sim-yarp-imu-system">
      <yarpConfigurationFile>model://ergoCub/conf/gazebo_ergocub_waist_inertial.ini</yarpConfigurationFile>
    </plugin>
  </gazebo>
  <sensor name="waist_imu_0" type="accelerometer">
    <parent link="torso_1"/>
    <origin xyz="0.0606 -0.00639428 0.01745" rpy="1.5708 -0.000105208 -1.5708"/>
  </sensor>
  <link name="base_link"/>
  <joint name="base_link_fixed_joint" type="fixed">
    <origin xyz="0 0 0" rpy="0 -0 0"/>
    <axis xyz="0 0 0"/>
    <parent link="root_link"/>
    <child link="base_link"/>
  </joint>
  <gazebo reference="r_arm_ft_sensor">
    <preserveFixedJoint>true</preserveFixedJoint>
    <!-- For compatibility with SDFormat < 4.4 -->
    <disableFixedJointLumping>true</disableFixedJointLumping>
  </gazebo>
  <gazebo reference="l_arm_ft_sensor">
    <preserveFixedJoint>true</preserveFixedJoint>
    <!-- For compatibility with SDFormat < 4.4 -->
    <disableFixedJointLumping>true</disableFixedJointLumping>
  </gazebo>
  <gazebo>
    <plugin name="gzyarp::ForceTorque" filename="gz-sim-yarp-forcetorque-system">
      <yarpConfigurationFile>model://ergoCub/conf/FT/gazebo_ergocub_left_arm_ft.ini</yarpConfigurationFile>
    </plugin>
  </gazebo>
  <gazebo>
    <plugin name="gzyarp::ForceTorque" filename="gz-sim-yarp-forcetorque-system">
      <yarpConfigurationFile>model://ergoCub/conf/FT/gazebo_ergocub_right_arm_ft.ini</yarpConfigurationFile>
    </plugin>
  </gazebo>
  <gazebo>
    <plugin name="gzyarp::Imu" filename="gz-sim-yarp-imu-system">
      <yarpConfigurationFile>model://ergoCub/conf/gazebo_ergocub_l_arm_ft_sensor_inertial.ini</yarpConfigurationFile>
    </plugin>
  </gazebo>
  <gazebo>
    <plugin name="gzyarp::Imu" filename="gz-sim-yarp-imu-system">
      <yarpConfigurationFile>model://ergoCub/conf/gazebo_ergocub_r_arm_ft_sensor_inertial.ini</yarpConfigurationFile>
    </plugin>
  </gazebo>
  <gazebo>
    <plugin name="controlboard_torso" filename="libgazebo_yarp_controlboard.so">
      <yarpConfigurationFile>model://ergoCub/conf/gazebo_ergocub_torso.ini</yarpConfigurationFile>
    </plugin>
  </gazebo>
  <gazebo>
    <plugin name="gzyarp::ControlBoard" filename="gz-sim-yarp-controlboard-system">
      <yarpConfigurationFile>model://ergoCub/conf/gazebo_ergocub_torso.ini</yarpConfigurationFile>
    </plugin>
  </gazebo>
  <gazebo reference="torso_pitch">
    <implicitSpringDamper>1</implicitSpringDamper>
  </gazebo>
  <gazebo reference="torso_roll">
    <implicitSpringDamper>1</implicitSpringDamper>
  </gazebo>
  <gazebo reference="torso_yaw">
    <implicitSpringDamper>1</implicitSpringDamper>
  </gazebo>
  <gazebo reference="r_shoulder_pitch">
    <implicitSpringDamper>1</implicitSpringDamper>
  </gazebo>
  <gazebo reference="r_shoulder_roll">
    <implicitSpringDamper>1</implicitSpringDamper>
  </gazebo>
  <gazebo reference="r_shoulder_yaw">
    <implicitSpringDamper>1</implicitSpringDamper>
  </gazebo>
  <gazebo reference="l_shoulder_pitch">
    <implicitSpringDamper>1</implicitSpringDamper>
  </gazebo>
  <gazebo reference="l_shoulder_roll">
    <implicitSpringDamper>1</implicitSpringDamper>
  </gazebo>
  <gazebo reference="l_shoulder_yaw">
    <implicitSpringDamper>1</implicitSpringDamper>
  </gazebo>
  <gazebo reference="realsense">
    <sensor name="realsense_head_rgbd" type="rgbd_camera">
      <always_on>1</always_on>
      <update_rate>30.000000</update_rate>
      <pose>0.00751548 -0.0115 1.73521e-08 0 0 0 </pose>
      <camera name="intel_realsense_rgbd_camera">
        <pose>0 0 0 -1.57079 -1.57079 3.14159</pose>
        <horizontal_fov>1.2217</horizontal_fov>
        <distortion>
          <k1>0</k1>
          <k2>0</k2>
          <k3>0</k3>
          <p1>0</p1>
          <p2>0</p2>
          <center>319.5 239.5</center>
        </distortion>
        <image>
          <width>640</width>
          <height>480</height>
          <format>R8G8B8</format>
        </image>
        <clip>
          <near>0.175</near>
          <far>3000</far>
        </clip>
      </camera>
      <visualize>false</visualize>
    </sensor>
  </gazebo>
  <sensor name="realsense_head_rgbd" type="rgbd_camera">
    <parent link="realsense"/>
    <origin rpy="-1.5708 3.75968e-16 -1.5708 " xyz="0.00751548 -0.0115 1.73521e-08"/>
  </sensor>
  <gazebo reference="l_leg_ft_sensor">
    <preserveFixedJoint>true</preserveFixedJoint>
    <!-- For compatibility with SDFormat < 4.4 -->
    <disableFixedJointLumping>true</disableFixedJointLumping>
  </gazebo>
  <gazebo reference="l_foot_front_ft_sensor">
    <preserveFixedJoint>true</preserveFixedJoint>
    <!-- For compatibility with SDFormat < 4.4 -->
    <disableFixedJointLumping>true</disableFixedJointLumping>
  </gazebo>
  <gazebo reference="l_foot_rear_ft_sensor">
    <preserveFixedJoint>true</preserveFixedJoint>
    <!-- For compatibility with SDFormat < 4.4 -->
    <disableFixedJointLumping>true</disableFixedJointLumping>
  </gazebo>
  <gazebo reference="l_foot_front">
    <collision>
      <surface>
        <bounce>
          <restitution_coefficient>0</restitution_coefficient>
          <threshold>100000</threshold>
        </bounce>
      </surface>
    </collision>
    <maxContacts>4</maxContacts>
    <kp>18000000</kp>
    <kd>100</kd>
    <maxVel>100</maxVel>
    <minDepth>0.0001</minDepth>
    <mu1>1</mu1>
    <mu2>1</mu2>
    <fdir1>0 0 0</fdir1>
  </gazebo>
  <gazebo reference="l_foot_rear">
    <collision>
      <surface>
        <bounce>
          <restitution_coefficient>0</restitution_coefficient>
          <threshold>100000</threshold>
        </bounce>
      </surface>
    </collision>
    <maxContacts>4</maxContacts>
    <kp>18000000</kp>
    <kd>100</kd>
    <maxVel>100</maxVel>
    <minDepth>0.0001</minDepth>
    <mu1>1</mu1>
    <mu2>1</mu2>
    <fdir1>0 0 0</fdir1>
  </gazebo>
  <gazebo>
    <plugin name="gzyarp::ForceTorque" filename="gz-sim-yarp-forcetorque-system">
      <yarpConfigurationFile>model://ergoCub/conf/FT/gazebo_ergocub_left_leg_ft.ini</yarpConfigurationFile>
    </plugin>
  </gazebo>
  <gazebo>
    <plugin name="gzyarp::ForceTorque" filename="gz-sim-yarp-forcetorque-system">
      <yarpConfigurationFile>model://ergoCub/conf/FT/gazebo_ergocub_left_foot_front_ft.ini</yarpConfigurationFile>
    </plugin>
  </gazebo>
  <gazebo>
    <plugin name="gzyarp::ForceTorque" filename="gz-sim-yarp-forcetorque-system">
      <yarpConfigurationFile>model://ergoCub/conf/FT/gazebo_ergocub_left_foot_rear_ft.ini</yarpConfigurationFile>
    </plugin>
  </gazebo>
  <gazebo>
    <plugin name="gzyarp::Imu" filename="gz-sim-yarp-imu-system">
      <yarpConfigurationFile>model://ergoCub/conf/gazebo_ergocub_l_foot_front_ft_sensor_inertial.ini</yarpConfigurationFile>
    </plugin>
  </gazebo>
  <gazebo>
    <plugin name="gzyarp::Imu" filename="gz-sim-yarp-imu-system">
      <yarpConfigurationFile>model://ergoCub/conf/gazebo_ergocub_l_foot_rear_ft_sensor_inertial.ini</yarpConfigurationFile>
    </plugin>
  </gazebo>
  <gazebo>
    <plugin name="gzyarp::Imu" filename="gz-sim-yarp-imu-system">
      <yarpConfigurationFile>model://ergoCub/conf/gazebo_ergocub_l_leg_ft_sensor_inertial.ini</yarpConfigurationFile>
    </plugin>
  </gazebo>
  <gazebo>
    <plugin name="controlboard_left_leg" filename="libgazebo_yarp_controlboard.so">
      <yarpConfigurationFile>model://ergoCub/conf/gazebo_ergocub_left_leg.ini</yarpConfigurationFile>
    </plugin>
  </gazebo>
  <gazebo>
    <plugin name="gzyarp::ControlBoard" filename="gz-sim-yarp-controlboard-system">
      <yarpConfigurationFile>model://ergoCub/conf/gazebo_ergocub_left_leg.ini</yarpConfigurationFile>
    </plugin>
  </gazebo>
  <gazebo reference="l_hip_pitch">
    <implicitSpringDamper>1</implicitSpringDamper>
  </gazebo>
  <gazebo reference="l_hip_roll">
    <implicitSpringDamper>1</implicitSpringDamper>
  </gazebo>
  <gazebo reference="l_hip_yaw">
    <implicitSpringDamper>1</implicitSpringDamper>
  </gazebo>
  <gazebo reference="l_knee">
    <implicitSpringDamper>1</implicitSpringDamper>
  </gazebo>
  <gazebo reference="l_ankle_pitch">
    <implicitSpringDamper>1</implicitSpringDamper>
  </gazebo>
  <gazebo reference="l_ankle_roll">
    <implicitSpringDamper>1</implicitSpringDamper>
  </gazebo>
  <gazebo reference="r_leg_ft_sensor">
    <preserveFixedJoint>true</preserveFixedJoint>
    <!-- For compatibility with SDFormat < 4.4 -->
    <disableFixedJointLumping>true</disableFixedJointLumping>
  </gazebo>
  <gazebo reference="r_foot_front_ft_sensor">
    <preserveFixedJoint>true</preserveFixedJoint>
    <!-- For compatibility with SDFormat < 4.4 -->
    <disableFixedJointLumping>true</disableFixedJointLumping>
  </gazebo>
  <gazebo reference="r_foot_rear_ft_sensor">
    <preserveFixedJoint>true</preserveFixedJoint>
    <!-- For compatibility with SDFormat < 4.4 -->
    <disableFixedJointLumping>true</disableFixedJointLumping>
  </gazebo>
  <gazebo reference="r_foot_front">
    <collision>
      <surface>
        <bounce>
          <restitution_coefficient>0</restitution_coefficient>
          <threshold>100000</threshold>
        </bounce>
      </surface>
    </collision>
    <maxContacts>4</maxContacts>
    <kp>18000000</kp>
    <kd>100</kd>
    <maxVel>100</maxVel>
    <minDepth>0.0001</minDepth>
    <mu1>1</mu1>
    <mu2>1</mu2>
    <fdir1>0 0 0</fdir1>
  </gazebo>
  <gazebo reference="r_foot_rear">
    <collision>
      <surface>
        <bounce>
          <restitution_coefficient>0</restitution_coefficient>
          <threshold>100000</threshold>
        </bounce>
      </surface>
    </collision>
    <maxContacts>4</maxContacts>
    <kp>18000000</kp>
    <kd>100</kd>
    <maxVel>100</maxVel>
    <minDepth>0.0001</minDepth>
    <mu1>1</mu1>
    <mu2>1</mu2>
    <fdir1>0 0 0</fdir1>
  </gazebo>
  <gazebo>
    <plugin name="gzyarp::ForceTorque" filename="gz-sim-yarp-forcetorque-system">
      <yarpConfigurationFile>model://ergoCub/conf/FT/gazebo_ergocub_right_leg_ft.ini</yarpConfigurationFile>
    </plugin>
  </gazebo>
  <gazebo>
    <plugin name="gzyarp::ForceTorque" filename="gz-sim-yarp-forcetorque-system">
      <yarpConfigurationFile>model://ergoCub/conf/FT/gazebo_ergocub_right_foot_front_ft.ini</yarpConfigurationFile>
    </plugin>
  </gazebo>
  <gazebo>
    <plugin name="gzyarp::ForceTorque" filename="gz-sim-yarp-forcetorque-system">
      <yarpConfigurationFile>model://ergoCub/conf/FT/gazebo_ergocub_right_foot_rear_ft.ini</yarpConfigurationFile>
    </plugin>
  </gazebo>
  <gazebo>
    <plugin name="gzyarp::Imu" filename="gz-sim-yarp-imu-system">
      <yarpConfigurationFile>model://ergoCub/conf/gazebo_ergocub_r_foot_front_ft_sensor_inertial.ini</yarpConfigurationFile>
    </plugin>
  </gazebo>
  <gazebo>
    <plugin name="gzyarp::Imu" filename="gz-sim-yarp-imu-system">
      <yarpConfigurationFile>model://ergoCub/conf/gazebo_ergocub_r_foot_rear_ft_sensor_inertial.ini</yarpConfigurationFile>
    </plugin>
  </gazebo>
  <gazebo>
    <plugin name="gzyarp::Imu" filename="gz-sim-yarp-imu-system">
      <yarpConfigurationFile>model://ergoCub/conf/gazebo_ergocub_r_leg_ft_sensor_inertial.ini</yarpConfigurationFile>
    </plugin>
  </gazebo>
  <gazebo>
    <plugin name="controlboard_right_leg" filename="libgazebo_yarp_controlboard.so">
      <yarpConfigurationFile>model://ergoCub/conf/gazebo_ergocub_right_leg.ini</yarpConfigurationFile>
    </plugin>
  </gazebo>
  <gazebo>
    <plugin name="gzyarp::ControlBoard" filename="gz-sim-yarp-controlboard-system">
      <yarpConfigurationFile>model://ergoCub/conf/gazebo_ergocub_right_leg.ini</yarpConfigurationFile>
    </plugin>
  </gazebo>
  <gazebo reference="r_hip_pitch">
    <implicitSpringDamper>1</implicitSpringDamper>
  </gazebo>
  <gazebo reference="r_hip_roll">
    <implicitSpringDamper>1</implicitSpringDamper>
  </gazebo>
  <gazebo reference="r_hip_yaw">
    <implicitSpringDamper>1</implicitSpringDamper>
  </gazebo>
  <gazebo reference="r_knee">
    <implicitSpringDamper>1</implicitSpringDamper>
  </gazebo>
  <gazebo reference="r_ankle_pitch">
    <implicitSpringDamper>1</implicitSpringDamper>
  </gazebo>
  <gazebo reference="r_ankle_roll">
    <implicitSpringDamper>1</implicitSpringDamper>
  </gazebo>
  <gazebo>
    <plugin name="gzyarp::Imu" filename="gz-sim-yarp-imu-system">
      <yarpConfigurationFile>model://ergoCub/conf/gazebo_ergocub_inertial.ini</yarpConfigurationFile>
    </plugin>
  </gazebo>
  <gazebo>
    <plugin name="gzyarp::Imu" filename="gz-sim-yarp-imu-system">
      <yarpConfigurationFile>model://ergoCub/conf/gazebo_ergocub_realsense_inertial.ini</yarpConfigurationFile>
    </plugin>
  </gazebo>
  <gazebo>
    <plugin name="gzyarp::Laser" filename="gz-sim-yarp-laser-system">
      <yarpConfigurationFile>model://ergoCub/conf/sensors/gazebo_ergocub_lidar.ini</yarpConfigurationFile>
    </plugin>
  </gazebo>
  <gazebo>
    <plugin name="controlboard_head" filename="libgazebo_yarp_controlboard.so">
      <yarpConfigurationFile>model://ergoCub/conf/gazebo_ergocub_head.ini</yarpConfigurationFile>
    </plugin>
  </gazebo>
  <gazebo>
    <plugin name="gzyarp::DepthCamera" filename="gz-sim-yarp-depthcamera-system">
      <yarpConfigurationFile>model://ergoCub/conf/sensors/gz_sim_ergocub_rgbd_camera.ini</yarpConfigurationFile>
    </plugin>
  </gazebo>
  <gazebo>
    <plugin name="gzyarp::ControlBoard" filename="gz-sim-yarp-controlboard-system">
      <yarpConfigurationFile>model://ergoCub/conf/gazebo_ergocub_head.ini</yarpConfigurationFile>
    </plugin>
  </gazebo>
  <gazebo reference="neck_pitch">
    <implicitSpringDamper>1</implicitSpringDamper>
  </gazebo>
  <gazebo reference="neck_roll">
    <implicitSpringDamper>1</implicitSpringDamper>
  </gazebo>
  <gazebo reference="neck_yaw">
    <implicitSpringDamper>1</implicitSpringDamper>
  </gazebo>
  <gazebo>
    <plugin name="controlboard_left_arm_no_hand" filename="libgazebo_yarp_controlboard.so">
      <yarpConfigurationFile>model://ergoCub/conf/gazebo_ergocub_left_arm_wrist_mk2_1.ini</yarpConfigurationFile>
      <initialConfiguration>-0.52 0.52 0 0.785 0 0 0.0</initialConfiguration>
    </plugin>
  </gazebo>
  <gazebo>
    <plugin name="gzyarp::ControlBoard" filename="gz-sim-yarp-controlboard-system">
      <yarpConfigurationFile>model://ergoCub/conf/gazebo_ergocub_left_arm_wrist_mk2_1.ini</yarpConfigurationFile>
      <initialConfiguration>-0.52 0.52 0 0.785 0 0 0.0</initialConfiguration>
    </plugin>
  </gazebo>
  <gazebo>
    <plugin name="controlboard_left_hand" filename="libgazebo_yarp_controlboard.so">
      <yarpConfigurationFile>model://ergoCub/conf/gazebo_ergocub_left_hand_mk5_1.ini</yarpConfigurationFile>
    </plugin>
  </gazebo>
  <gazebo>
    <plugin name="gzyarp::ControlBoard" filename="gz-sim-yarp-controlboard-system">
      <yarpConfigurationFile>model://ergoCub/conf/gazebo_ergocub_left_hand_mk5_1.ini</yarpConfigurationFile>
    </plugin>
  </gazebo>
  <gazebo reference="l_shoulder_pitch">
    <implicitSpringDamper>1</implicitSpringDamper>
  </gazebo>
  <gazebo reference="l_shoulder_roll">
    <implicitSpringDamper>1</implicitSpringDamper>
  </gazebo>
  <gazebo reference="l_shoulder_yaw">
    <implicitSpringDamper>1</implicitSpringDamper>
  </gazebo>
  <gazebo reference="l_elbow">
    <implicitSpringDamper>1</implicitSpringDamper>
  </gazebo>
  <gazebo reference="l_wrist_roll">
    <implicitSpringDamper>1</implicitSpringDamper>
  </gazebo>
  <gazebo reference="l_wrist_pitch">
    <implicitSpringDamper>1</implicitSpringDamper>
  </gazebo>
  <gazebo reference="l_wrist_yaw">
    <implicitSpringDamper>1</implicitSpringDamper>
  </gazebo>
  <gazebo>
    <plugin name="controlboard_right_arm_no_hand" filename="libgazebo_yarp_controlboard.so">
      <yarpConfigurationFile>model://ergoCub/conf/gazebo_ergocub_right_arm_wrist_mk2_1.ini</yarpConfigurationFile>
      <initialConfiguration>-0.52 0.52 0 0.785 0 0 0.0</initialConfiguration>
    </plugin>
  </gazebo>
  <gazebo>
    <plugin name="gzyarp::ControlBoard" filename="gz-sim-yarp-controlboard-system">
      <yarpConfigurationFile>model://ergoCub/conf/gazebo_ergocub_right_arm_wrist_mk2_1.ini</yarpConfigurationFile>
      <initialConfiguration>-0.52 0.52 0 0.785 0 0 0.0</initialConfiguration>
    </plugin>
  </gazebo>
  <gazebo>
    <plugin name="controlboard_right_hand" filename="libgazebo_yarp_controlboard.so">
      <yarpConfigurationFile>model://ergoCub/conf/gazebo_ergocub_right_hand_mk5_1.ini</yarpConfigurationFile>
    </plugin>
  </gazebo>
  <gazebo>
    <plugin name="gzyarp::ControlBoard" filename="gz-sim-yarp-controlboard-system">
      <yarpConfigurationFile>model://ergoCub/conf/gazebo_ergocub_right_hand_mk5_1.ini</yarpConfigurationFile>
    </plugin>
  </gazebo>
  <gazebo reference="r_shoulder_pitch">
    <implicitSpringDamper>1</implicitSpringDamper>
  </gazebo>
  <gazebo reference="r_shoulder_roll">
    <implicitSpringDamper>1</implicitSpringDamper>
  </gazebo>
  <gazebo reference="r_shoulder_yaw">
    <implicitSpringDamper>1</implicitSpringDamper>
  </gazebo>
  <gazebo reference="r_elbow">
    <implicitSpringDamper>1</implicitSpringDamper>
  </gazebo>
  <gazebo reference="r_wrist_roll">
    <implicitSpringDamper>1</implicitSpringDamper>
  </gazebo>
  <gazebo reference="r_wrist_pitch">
    <implicitSpringDamper>1</implicitSpringDamper>
  </gazebo>
  <gazebo reference="r_wrist_yaw">
    <implicitSpringDamper>1</implicitSpringDamper>
  </gazebo>
  <gazebo>
    <plugin name="robotinterface" filename="libgazebo_yarp_robotinterface.so">
      <yarpRobotInterfaceConfigurationFile>model://ergoCub/conf/ergocub.xml</yarpRobotInterfaceConfigurationFile>
    </plugin>
  </gazebo>
  <gazebo>
    <plugin name="gzyarp::RobotInterface" filename="gz-sim-yarp-robotinterface-system">
      <yarpRobotInterfaceConfigurationFile>model://ergoCub/conf/ergocub.xml</yarpRobotInterfaceConfigurationFile>
    </plugin>
  </gazebo>
  <gazebo>
    <pose>0.000000 0.000000 0.800000 0.000000 0.000000 0.000000</pose>
  </gazebo>
</robot>
